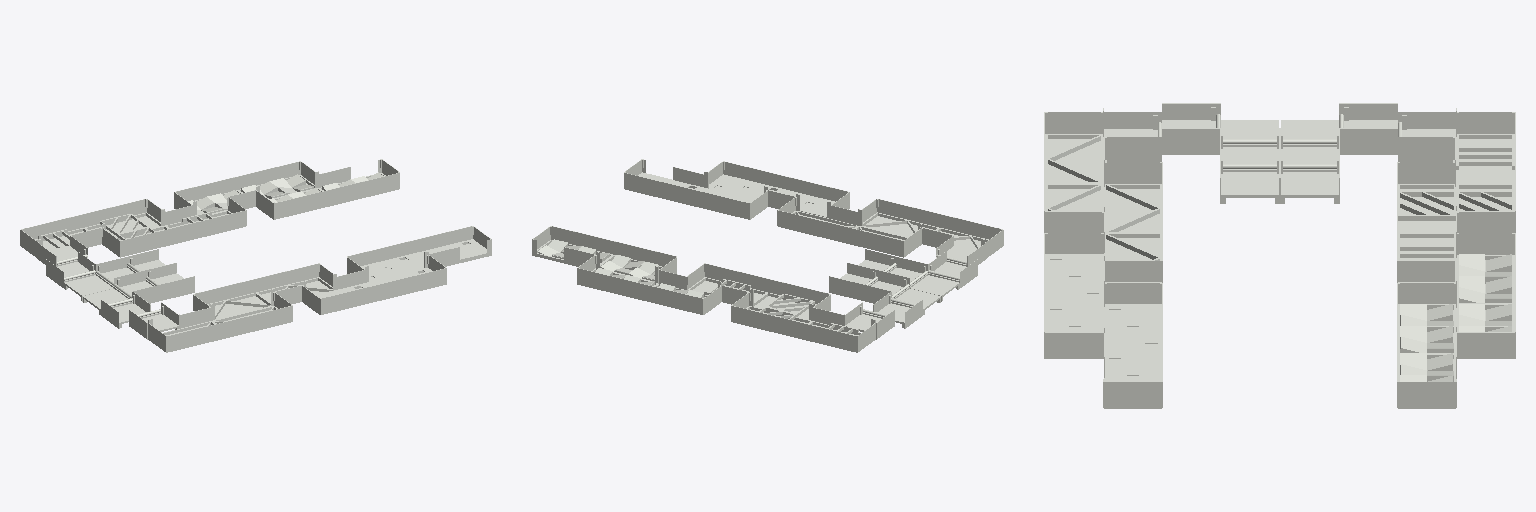
--- What the picture shows (computed from the rendered views, not written in the file) ---
The picture shows the robot from 3 angles, left to right: view 1: azimuth 30°, elevation 25°; view 2: azimuth 150°, elevation 25°; view 3: azimuth 270°, elevation 25°; orthographic projection.
Robot: map — 172 links, 171 joints (171 fixed); root link world; default pose: all joints at 0.
Visible links, largest first — view 1: board_18x600x2400_145, board_18x600x2400_156, board_18x600x2400_33, board_18x600x2400_66, board_18x600x2400_97, board_18x600x2400_176, board_18x600x2400_128, board_18x600x2400_184, pallet_step_with_pipe_78, pallet_step_with_pipe_76, pallet_step_with_pipe_90, pallet_step_with_pipe_88 (+17 smaller); view 2: board_18x600x2400_34, board_18x600x2400_47, board_18x600x2400_98, board_18x600x2400_134, board_18x600x2400_150, board_18x600x2400_165, board_18x600x2400_114, board_18x600x2400_192, pallet_step_with_pipe_80, pallet_step_with_pipe_82, pallet_step_with_pipe_92, pallet_step_with_pipe_86 (+16 smaller); view 3: pallet_step_with_pipe_88, pallet_step_with_pipe_86, crate_board_133, pallet_step_with_pipe_90, pallet_step_with_pipe_92, crate_board_153, lane_floor_164, lane_floor_190, lane_floor_96, pallet_step_with_pipe_78, pallet_step_with_pipe_80, board_18x600x1200_158 (+28 smaller).
Boxes of the visible links, x1,y1,x2,y2 form: board_18x600x2400_145: [320, 283, 383, 314]; board_18x600x2400_156: [384, 268, 446, 299]; board_18x600x2400_33: [337, 173, 399, 204]; board_18x600x2400_66: [274, 188, 336, 219]; board_18x600x2400_97: [183, 210, 245, 241]; board_18x600x2400_176: [167, 321, 229, 352]; board_18x600x2400_128: [120, 226, 182, 257]; board_18x600x2400_184: [230, 306, 292, 336]; pallet_step_with_pipe_78: [146, 263, 194, 299]; pallet_step_with_pipe_76: [114, 270, 163, 303]; pallet_step_with_pipe_90: [129, 302, 178, 339]; pallet_step_with_pipe_88: [101, 291, 150, 328]; board_18x600x2400_34: [640, 283, 703, 314]; board_18x600x2400_47: [577, 268, 639, 299]; board_18x600x2400_98: [794, 321, 856, 352]; board_18x600x2400_134: [624, 173, 686, 204]; board_18x600x2400_150: [687, 188, 749, 219]; board_18x600x2400_165: [778, 210, 840, 241]; board_18x600x2400_114: [731, 306, 793, 336]; board_18x600x2400_192: [841, 226, 903, 257]; pallet_step_with_pipe_80: [829, 263, 877, 299]; pallet_step_with_pipe_82: [860, 270, 909, 303]; pallet_step_with_pipe_92: [845, 302, 894, 339]; pallet_step_with_pipe_86: [873, 291, 922, 328]; pallet_step_with_pipe_88: [1162, 103, 1220, 154]; pallet_step_with_pipe_86: [1339, 103, 1397, 154]; crate_board_133: [1045, 254, 1103, 303]; pallet_step_with_pipe_90: [1104, 112, 1161, 161]; pallet_step_with_pipe_92: [1398, 112, 1455, 161]; crate_board_153: [1104, 304, 1161, 352]; lane_floor_164: [1045, 134, 1103, 183]; lane_floor_190: [1104, 184, 1161, 232]; lane_floor_96: [1456, 134, 1514, 183]; pallet_step_with_pipe_78: [1220, 153, 1279, 203]; pallet_step_with_pipe_80: [1280, 153, 1339, 203]; board_18x600x1200_158: [1045, 332, 1103, 358].
Bounding box of the posed robot: 13.53 × 9.66 × 0.711 m (x, y, z).
Meshes: 14 distinct files referenced, 171 mesh visuals loaded (14 OBJ).

The robot description file, URDF, robot "map":
<?xml version="1.0" ?>
<!-- =================================================================================== -->
<!-- |    This document was autogenerated by xacro from map_flat.urdf.xacro            | -->
<!-- |    EDITING THIS FILE BY HAND IS NOT RECOMMENDED                                 | -->
<!-- =================================================================================== -->
<robot name="map">
  <link name="world"/>
  <material name="black">
    <color rgba="0.0 0.0 0.0 1.0"/>
  </material>
  <material name="blue">
    <color rgba="0.0 0.0 0.8 1.0"/>
  </material>
  <material name="green">
    <color rgba="0.0 0.8 0.0 1.0"/>
  </material>
  <material name="grey">
    <color rgba="0.2 0.2 0.2 1.0"/>
  </material>
  <material name="orange">
    <color rgba="1.0 0.4235294117647059 0.0392156862745098 1.0"/>
  </material>
  <material name="brown">
    <color rgba="0.8705882352941177 0.8117647058823529 0.7647058823529411 1.0"/>
  </material>
  <material name="red">
    <color rgba="1 0.41 0.41 1"/>
  </material>
  <material name="white">
    <color rgba="1.0 1.0 1.0 1.0"/>
  </material>
  <material name="wood">
    <color rgba="0.82 0.59 0.35 1.0"/>
  </material>
  <!-- fixed joint -->
  <joint name="board_18x600x1032_38_joint" type="fixed">
    <origin rpy="0.0 -0.0 -3.1415926535891723" xyz="1.4110000009077655 3.602500000001875 0.30000000000000004"/>
    <parent link="world"/>
    <child link="board_18x600x1032_38"/>
  </joint>
  <!-- link -->
  <link name="board_18x600x1032_38">
    <!-- inertial -->
    <inertial>
      <origin rpy="0 0 0" xyz="0 0 0"/>
      <mass value="1"/>
      <inertia ixx="1.0" ixy="0.0" ixz="0.0" iyy="1.0" iyz="0.0" izz="1.0"/>
    </inertial>
    <!-- visual -->
    <visual>
      <origin rpy="0 0 0" xyz="0 0 0"/>
      <geometry>
        <mesh filename="package://ICRA2024_Quadruped_Competition/meshes/visual/board_18x600x1032.obj"/>
      </geometry>
      <material name="">
        <color rgba="0.92 0.93 0.90 1"/>
      </material>
    </visual>
    <!-- collision -->
    <collision>
      <origin rpy="0 0 0" xyz="0 0 0"/>
      <geometry>
        <mesh filename="package://ICRA2024_Quadruped_Competition/meshes/visual/board_18x600x1032.obj"/>
      </geometry>
      <material name="">
        <color rgba="1 0 0 1"/>
      </material>
    </collision>
  </link>
  <!-- gazebo -->
  <gazebo reference="board_18x600x1032_38">
    <static>true</static>
  </gazebo>
  <!-- fixed joint -->
  <joint name="board_18x600x1032_109_joint" type="fixed">
    <origin rpy="0.0 -0.0 -3.1415926535891723" xyz="-0.9889999990922331 3.62050000000182 0.30000000000000004"/>
    <parent link="world"/>
    <child link="board_18x600x1032_109"/>
  </joint>
  <!-- link -->
  <link name="board_18x600x1032_109">
    <!-- inertial -->
    <inertial>
      <origin rpy="0 0 0" xyz="0 0 0"/>
      <mass value="1"/>
      <inertia ixx="1.0" ixy="0.0" ixz="0.0" iyy="1.0" iyz="0.0" izz="1.0"/>
    </inertial>
    <!-- visual -->
    <visual>
      <origin rpy="0 0 0" xyz="0 0 0"/>
      <geometry>
        <mesh filename="package://ICRA2024_Quadruped_Competition/meshes/visual/board_18x600x1032.obj"/>
      </geometry>
      <material name="">
        <color rgba="0.92 0.93 0.90 1"/>
      </material>
    </visual>
    <!-- collision -->
    <collision>
      <origin rpy="0 0 0" xyz="0 0 0"/>
      <geometry>
        <mesh filename="package://ICRA2024_Quadruped_Competition/meshes/visual/board_18x600x1032.obj"/>
      </geometry>
      <material name="">
        <color rgba="1 0 0 1"/>
      </material>
    </collision>
  </link>
  <!-- gazebo -->
  <gazebo reference="board_18x600x1032_109">
    <static>true</static>
  </gazebo>
  <!-- fixed joint -->
  <joint name="board_18x600x1032_138_joint" type="fixed">
    <origin rpy="0.0 -0.0 -3.1415926535891723" xyz="1.4110000009077655 -3.6024999999981335 0.30000000000000004"/>
    <parent link="world"/>
    <child link="board_18x600x1032_138"/>
  </joint>
  <!-- link -->
  <link name="board_18x600x1032_138">
    <!-- inertial -->
    <inertial>
      <origin rpy="0 0 0" xyz="0 0 0"/>
      <mass value="1"/>
      <inertia ixx="1.0" ixy="0.0" ixz="0.0" iyy="1.0" iyz="0.0" izz="1.0"/>
    </inertial>
    <!-- visual -->
    <visual>
      <origin rpy="0 0 0" xyz="0 0 0"/>
      <geometry>
        <mesh filename="package://ICRA2024_Quadruped_Competition/meshes/visual/board_18x600x1032.obj"/>
      </geometry>
      <material name="">
        <color rgba="0.92 0.93 0.90 1"/>
      </material>
    </visual>
    <!-- collision -->
    <collision>
      <origin rpy="0 0 0" xyz="0 0 0"/>
      <geometry>
        <mesh filename="package://ICRA2024_Quadruped_Competition/meshes/visual/board_18x600x1032.obj"/>
      </geometry>
      <material name="">
        <color rgba="1 0 0 1"/>
      </material>
    </collision>
  </link>
  <!-- gazebo -->
  <gazebo reference="board_18x600x1032_138">
    <static>true</static>
  </gazebo>
  <!-- fixed joint -->
  <joint name="board_18x600x1032_175_joint" type="fixed">
    <origin rpy="0.0 -0.0 -3.1415926535891723" xyz="-0.9889999990922331 -3.6024999999981877 0.30000000000000004"/>
    <parent link="world"/>
    <child link="board_18x600x1032_175"/>
  </joint>
  <!-- link -->
  <link name="board_18x600x1032_175">
    <!-- inertial -->
    <inertial>
      <origin rpy="0 0 0" xyz="0 0 0"/>
      <mass value="1"/>
      <inertia ixx="1.0" ixy="0.0" ixz="0.0" iyy="1.0" iyz="0.0" izz="1.0"/>
    </inertial>
    <!-- visual -->
    <visual>
      <origin rpy="0 0 0" xyz="0 0 0"/>
      <geometry>
        <mesh filename="package://ICRA2024_Quadruped_Competition/meshes/visual/board_18x600x1032.obj"/>
      </geometry>
      <material name="">
        <color rgba="0.92 0.93 0.90 1"/>
      </material>
    </visual>
    <!-- collision -->
    <collision>
      <origin rpy="0 0 0" xyz="0 0 0"/>
      <geometry>
        <mesh filename="package://ICRA2024_Quadruped_Competition/meshes/visual/board_18x600x1032.obj"/>
      </geometry>
      <material name="">
        <color rgba="1 0 0 1"/>
      </material>
    </collision>
  </link>
  <!-- gazebo -->
  <gazebo reference="board_18x600x1032_175">
    <static>true</static>
  </gazebo>
  <!-- fixed joint -->
  <joint name="board_18x600x1200_35_joint" type="fixed">
    <origin rpy="-0.0 -0.0 1.570796326795414" xyz="-0.46399999909223233 4.21149999999938 0.30000000000000004"/>
    <parent link="world"/>
    <child link="board_18x600x1200_35"/>
  </joint>
  <!-- link -->
  <link name="board_18x600x1200_35">
    <!-- inertial -->
    <inertial>
      <origin rpy="0 0 0" xyz="0 0 0"/>
      <mass value="1"/>
      <inertia ixx="1.0" ixy="0.0" ixz="0.0" iyy="1.0" iyz="0.0" izz="1.0"/>
    </inertial>
    <!-- visual -->
    <visual>
      <origin rpy="0 0 0" xyz="0 0 0"/>
      <geometry>
        <mesh filename="package://ICRA2024_Quadruped_Competition/meshes/visual/board_18x600x1200.obj"/>
      </geometry>
      <material name="">
        <color rgba="0.92 0.93 0.90 1"/>
      </material>
    </visual>
    <!-- collision -->
    <collision>
      <origin rpy="0 0 0" xyz="0 0 0"/>
      <geometry>
        <mesh filename="package://ICRA2024_Quadruped_Competition/meshes/visual/board_18x600x1200.obj"/>
      </geometry>
      <material name="">
        <color rgba="1 0 0 1"/>
      </material>
    </collision>
  </link>
  <!-- gazebo -->
  <gazebo reference="board_18x600x1200_35">
    <static>true</static>
  </gazebo>
  <!-- fixed joint -->
  <joint name="board_18x600x1200_36_joint" type="fixed">
    <origin rpy="-0.0 -0.0 1.570796326795414" xyz="6.754000000908388 3.0115000000031142 0.30000000000000004"/>
    <parent link="world"/>
    <child link="board_18x600x1200_36"/>
  </joint>
  <!-- link -->
  <link name="board_18x600x1200_36">
    <!-- inertial -->
    <inertial>
      <origin rpy="0 0 0" xyz="0 0 0"/>
      <mass value="1"/>
      <inertia ixx="1.0" ixy="0.0" ixz="0.0" iyy="1.0" iyz="0.0" izz="1.0"/>
    </inertial>
    <!-- visual -->
    <visual>
      <origin rpy="0 0 0" xyz="0 0 0"/>
      <geometry>
        <mesh filename="package://ICRA2024_Quadruped_Competition/meshes/visual/board_18x600x1200.obj"/>
      </geometry>
      <material name="">
        <color rgba="0.92 0.93 0.90 1"/>
      </material>
    </visual>
    <!-- collision -->
    <collision>
      <origin rpy="0 0 0" xyz="0 0 0"/>
      <geometry>
        <mesh filename="package://ICRA2024_Quadruped_Competition/meshes/visual/board_18x600x1200.obj"/>
      </geometry>
      <material name="">
        <color rgba="1 0 0 1"/>
      </material>
    </collision>
  </link>
  <!-- gazebo -->
  <gazebo reference="board_18x600x1200_36">
    <static>true</static>
  </gazebo>
  <!-- fixed joint -->
  <joint name="board_18x600x1200_37_joint" type="fixed">
    <origin rpy="0.0 -0.0 -3.1415926535891723" xyz="4.9630000009077655 3.6205000000018748 0.30000000000000004"/>
    <parent link="world"/>
    <child link="board_18x600x1200_37"/>
  </joint>
  <!-- link -->
  <link name="board_18x600x1200_37">
    <!-- inertial -->
    <inertial>
      <origin rpy="0 0 0" xyz="0 0 0"/>
      <mass value="1"/>
      <inertia ixx="1.0" ixy="0.0" ixz="0.0" iyy="1.0" iyz="0.0" izz="1.0"/>
    </inertial>
    <!-- visual -->
    <visual>
      <origin rpy="0 0 0" xyz="0 0 0"/>
      <geometry>
        <mesh filename="package://ICRA2024_Quadruped_Competition/meshes/visual/board_18x600x1200.obj"/>
      </geometry>
      <material name="">
        <color rgba="0.92 0.93 0.90 1"/>
      </material>
    </visual>
    <!-- collision -->
    <collision>
      <origin rpy="0 0 0" xyz="0 0 0"/>
      <geometry>
        <mesh filename="package://ICRA2024_Quadruped_Competition/meshes/visual/board_18x600x1200.obj"/>
      </geometry>
      <material name="">
        <color rgba="1 0 0 1"/>
      </material>
    </collision>
  </link>
  <!-- gazebo -->
  <gazebo reference="board_18x600x1200_37">
    <static>true</static>
  </gazebo>
  <!-- fixed joint -->
  <joint name="board_18x600x1200_49_joint" type="fixed">
    <origin rpy="-0.0 -0.0 1.570796326795414" xyz="4.354000000907767 4.211500000001873 0.3000000000000004"/>
    <parent link="world"/>
    <child link="board_18x600x1200_49"/>
  </joint>
  <!-- link -->
  <link name="board_18x600x1200_49">
    <!-- inertial -->
    <inertial>
      <origin rpy="0 0 0" xyz="0 0 0"/>
      <mass value="1"/>
      <inertia ixx="1.0" ixy="0.0" ixz="0.0" iyy="1.0" iyz="0.0" izz="1.0"/>
    </inertial>
    <!-- visual -->
    <visual>
      <origin rpy="0 0 0" xyz="0 0 0"/>
      <geometry>
        <mesh filename="package://ICRA2024_Quadruped_Competition/meshes/visual/board_18x600x1200.obj"/>
      </geometry>
      <material name="">
        <color rgba="0.92 0.93 0.90 1"/>
      </material>
    </visual>
    <!-- collision -->
    <collision>
      <origin rpy="0 0 0" xyz="0 0 0"/>
      <geometry>
        <mesh filename="package://ICRA2024_Quadruped_Competition/meshes/visual/board_18x600x1200.obj"/>
      </geometry>
      <material name="">
        <color rgba="1 0 0 1"/>
      </material>
    </collision>
  </link>
  <!-- gazebo -->
  <gazebo reference="board_18x600x1200_49">
    <static>true</static>
  </gazebo>
  <!-- fixed joint -->
  <joint name="board_18x600x1200_63_joint" type="fixed">
    <origin rpy="-0.0 -0.0 1.570796326795414" xyz="1.936000000908388 3.011500000000621 0.3000000000000004"/>
    <parent link="world"/>
    <child link="board_18x600x1200_63"/>
  </joint>
  <!-- link -->
  <link name="board_18x600x1200_63">
    <!-- inertial -->
    <inertial>
      <origin rpy="0 0 0" xyz="0 0 0"/>
      <mass value="1"/>
      <inertia ixx="1.0" ixy="0.0" ixz="0.0" iyy="1.0" iyz="0.0" izz="1.0"/>
    </inertial>
    <!-- visual -->
    <visual>
      <origin rpy="0 0 0" xyz="0 0 0"/>
      <geometry>
        <mesh filename="package://ICRA2024_Quadruped_Competition/meshes/visual/board_18x600x1200.obj"/>
      </geometry>
      <material name="">
        <color rgba="0.92 0.93 0.90 1"/>
      </material>
    </visual>
    <!-- collision -->
    <collision>
      <origin rpy="0 0 0" xyz="0 0 0"/>
      <geometry>
        <mesh filename="package://ICRA2024_Quadruped_Competition/meshes/visual/board_18x600x1200.obj"/>
      </geometry>
      <material name="">
        <color rgba="1 0 0 1"/>
      </material>
    </collision>
  </link>
  <!-- gazebo -->
  <gazebo reference="board_18x600x1200_63">
    <static>true</static>
  </gazebo>
  <!-- fixed joint -->
  <joint name="board_18x600x1200_99_joint" type="fixed">
    <origin rpy="-0.0 -0.0 1.570796326795414" xyz="-6.331999999092233 4.211499999999377 0.30000000000000004"/>
    <parent link="world"/>
    <child link="board_18x600x1200_99"/>
  </joint>
  <!-- link -->
  <link name="board_18x600x1200_99">
    <!-- inertial -->
    <inertial>
      <origin rpy="0 0 0" xyz="0 0 0"/>
      <mass value="1"/>
      <inertia ixx="1.0" ixy="0.0" ixz="0.0" iyy="1.0" iyz="0.0" izz="1.0"/>
    </inertial>
    <!-- visual -->
    <visual>
      <origin rpy="0 0 0" xyz="0 0 0"/>
      <geometry>
        <mesh filename="package://ICRA2024_Quadruped_Competition/meshes/visual/board_18x600x1200.obj"/>
      </geometry>
      <material name="">
        <color rgba="0.92 0.93 0.90 1"/>
      </material>
    </visual>
    <!-- collision -->
    <collision>
      <origin rpy="0 0 0" xyz="0 0 0"/>
      <geometry>
        <mesh filename="package://ICRA2024_Quadruped_Competition/meshes/visual/board_18x600x1200.obj"/>
      </geometry>
      <material name="">
        <color rgba="1 0 0 1"/>
      </material>
    </collision>
  </link>
  <!-- gazebo -->
  <gazebo reference="board_18x600x1200_99">
    <static>true</static>
  </gazebo>
  <!-- fixed joint -->
  <joint name="board_18x600x1200_100_joint" type="fixed">
    <origin rpy="-0.0 -0.0 1.570796326795414" xyz="0.8860000009083877 3.0115000000031116 0.30000000000000004"/>
    <parent link="world"/>
    <child link="board_18x600x1200_100"/>
  </joint>
  <!-- link -->
  <link name="board_18x600x1200_100">
    <!-- inertial -->
    <inertial>
      <origin rpy="0 0 0" xyz="0 0 0"/>
      <mass value="1"/>
      <inertia ixx="1.0" ixy="0.0" ixz="0.0" iyy="1.0" iyz="0.0" izz="1.0"/>
    </inertial>
    <!-- visual -->
    <visual>
      <origin rpy="0 0 0" xyz="0 0 0"/>
      <geometry>
        <mesh filename="package://ICRA2024_Quadruped_Competition/meshes/visual/board_18x600x1200.obj"/>
      </geometry>
      <material name="">
        <color rgba="0.92 0.93 0.90 1"/>
      </material>
    </visual>
    <!-- collision -->
    <collision>
      <origin rpy="0 0 0" xyz="0 0 0"/>
      <geometry>
        <mesh filename="package://ICRA2024_Quadruped_Competition/meshes/visual/board_18x600x1200.obj"/>
      </geometry>
      <material name="">
        <color rgba="1 0 0 1"/>
      </material>
    </collision>
  </link>
  <!-- gazebo -->
  <gazebo reference="board_18x600x1200_100">
    <static>true</static>
  </gazebo>
  <!-- fixed joint -->
  <joint name="board_18x600x1200_108_joint" type="fixed">
    <origin rpy="0.0 -0.0 -3.1415926535891723" xyz="-4.540999999092234 3.6025000000018723 0.30000000000000004"/>
    <parent link="world"/>
    <child link="board_18x600x1200_108"/>
  </joint>
  <!-- link -->
  <link name="board_18x600x1200_108">
    <!-- inertial -->
    <inertial>
      <origin rpy="0 0 0" xyz="0 0 0"/>
      <mass value="1"/>
      <inertia ixx="1.0" ixy="0.0" ixz="0.0" iyy="1.0" iyz="0.0" izz="1.0"/>
    </inertial>
    <!-- visual -->
    <visual>
      <origin rpy="0 0 0" xyz="0 0 0"/>
      <geometry>
        <mesh filename="package://ICRA2024_Quadruped_Competition/meshes/visual/board_18x600x1200.obj"/>
      </geometry>
      <material name="">
        <color rgba="0.92 0.93 0.90 1"/>
      </material>
    </visual>
    <!-- collision -->
    <collision>
      <origin rpy="0 0 0" xyz="0 0 0"/>
      <geometry>
        <mesh filename="package://ICRA2024_Quadruped_Competition/meshes/visual/board_18x600x1200.obj"/>
      </geometry>
      <material name="">
        <color rgba="1 0 0 1"/>
      </material>
    </collision>
  </link>
  <!-- gazebo -->
  <gazebo reference="board_18x600x1200_108">
    <static>true</static>
  </gazebo>
  <!-- fixed joint -->
  <joint name="board_18x600x1200_116_joint" type="fixed">
    <origin rpy="-0.0 -0.0 1.570796326795414" xyz="-1.513999999092233 4.21150000000187 0.3000000000000004"/>
    <parent link="world"/>
    <child link="board_18x600x1200_116"/>
  </joint>
  <!-- link -->
  <link name="board_18x600x1200_116">
    <!-- inertial -->
    <inertial>
      <origin rpy="0 0 0" xyz="0 0 0"/>
      <mass value="1"/>
      <inertia ixx="1.0" ixy="0.0" ixz="0.0" iyy="1.0" iyz="0.0" izz="1.0"/>
    </inertial>
    <!-- visual -->
    <visual>
      <origin rpy="0 0 0" xyz="0 0 0"/>
      <geometry>
        <mesh filename="package://ICRA2024_Quadruped_Competition/meshes/visual/board_18x600x1200.obj"/>
      </geometry>
      <material name="">
        <color rgba="0.92 0.93 0.90 1"/>
      </material>
    </visual>
    <!-- collision -->
    <collision>
      <origin rpy="0 0 0" xyz="0 0 0"/>
      <geometry>
        <mesh filename="package://ICRA2024_Quadruped_Competition/meshes/visual/board_18x600x1200.obj"/>
      </geometry>
      <material name="">
        <color rgba="1 0 0 1"/>
      </material>
    </collision>
  </link>
  <!-- gazebo -->
  <gazebo reference="board_18x600x1200_116">
    <static>true</static>
  </gazebo>
  <!-- fixed joint -->
  <joint name="board_18x600x1200_124_joint" type="fixed">
    <origin rpy="-0.0 -0.0 1.570796326795414" xyz="-3.9319999990916124 3.011500000000619 0.30000000000000016"/>
    <parent link="world"/>
    <child link="board_18x600x1200_124"/>
  </joint>
  <!-- link -->
  <link name="board_18x600x1200_124">
    <!-- inertial -->
    <inertial>
      <origin rpy="0 0 0" xyz="0 0 0"/>
      <mass value="1"/>
      <inertia ixx="1.0" ixy="0.0" ixz="0.0" iyy="1.0" iyz="0.0" izz="1.0"/>
    </inertial>
    <!-- visual -->
    <visual>
      <origin rpy="0 0 0" xyz="0 0 0"/>
      <geometry>
        <mesh filename="package://ICRA2024_Quadruped_Competition/meshes/visual/board_18x600x1200.obj"/>
      </geometry>
      <material name="">
        <color rgba="0.92 0.93 0.90 1"/>
      </material>
    </visual>
    <!-- collision -->
    <collision>
      <origin rpy="0 0 0" xyz="0 0 0"/>
      <geometry>
        <mesh filename="package://ICRA2024_Quadruped_Competition/meshes/visual/board_18x600x1200.obj"/>
      </geometry>
      <material name="">
        <color rgba="1 0 0 1"/>
      </material>
    </collision>
  </link>
  <!-- gazebo -->
  <gazebo reference="board_18x600x1200_124">
    <static>true</static>
  </gazebo>
  <!-- fixed joint -->
  <joint name="board_18x600x1200_135_joint" type="fixed">
    <origin rpy="-0.0 -0.0 1.570796326795414" xyz="-0.46399999909223233 -4.211500000000629 0.30000000000000004"/>
    <parent link="world"/>
    <child link="board_18x600x1200_135"/>
  </joint>
  <!-- link -->
  <link name="board_18x600x1200_135">
    <!-- inertial -->
    <inertial>
      <origin rpy="0 0 0" xyz="0 0 0"/>
      <mass value="1"/>
      <inertia ixx="1.0" ixy="0.0" ixz="0.0" iyy="1.0" iyz="0.0" izz="1.0"/>
    </inertial>
    <!-- visual -->
    <visual>
      <origin rpy="0 0 0" xyz="0 0 0"/>
      <geometry>
        <mesh filename="package://ICRA2024_Quadruped_Competition/meshes/visual/board_18x600x1200.obj"/>
      </geometry>
      <material name="">
        <color rgba="0.92 0.93 0.90 1"/>
      </material>
    </visual>
    <!-- collision -->
    <collision>
      <origin rpy="0 0 0" xyz="0 0 0"/>
      <geometry>
        <mesh filename="package://ICRA2024_Quadruped_Competition/meshes/visual/board_18x600x1200.obj"/>
      </geometry>
      <material name="">
        <color rgba="1 0 0 1"/>
      </material>
    </collision>
  </link>
  <!-- gazebo -->
  <gazebo reference="board_18x600x1200_135">
    <static>true</static>
  </gazebo>
  <!-- fixed joint -->
  <joint name="board_18x600x1200_136_joint" type="fixed">
    <origin rpy="-0.0 -0.0 1.570796326795414" xyz="6.754000000908388 -3.0114999999968943 0.30000000000000004"/>
    <parent link="world"/>
    <child link="board_18x600x1200_136"/>
  </joint>
  <!-- link -->
  <link name="board_18x600x1200_136">
    <!-- inertial -->
    <inertial>
      <origin rpy="0 0 0" xyz="0 0 0"/>
      <mass value="1"/>
      <inertia ixx="1.0" ixy="0.0" ixz="0.0" iyy="1.0" iyz="0.0" izz="1.0"/>
    </inertial>
    <!-- visual -->
    <visual>
      <origin rpy="0 0 0" xyz="0 0 0"/>
      <geometry>
        <mesh filename="package://ICRA2024_Quadruped_Competition/meshes/visual/board_18x600x1200.obj"/>
      </geometry>
      <material name="">
        <color rgba="0.92 0.93 0.90 1"/>
      </material>
    </visual>
    <!-- collision -->
    <collision>
      <origin rpy="0 0 0" xyz="0 0 0"/>
      <geometry>
        <mesh filename="package://ICRA2024_Quadruped_Competition/meshes/visual/board_18x600x1200.obj"/>
      </geometry>
      <material name="">
        <color rgba="1 0 0 1"/>
      </material>
    </collision>
  </link>
  <!-- gazebo -->
  <gazebo reference="board_18x600x1200_136">
    <static>true</static>
  </gazebo>
  <!-- fixed joint -->
  <joint name="board_18x600x1200_137_joint" type="fixed">
    <origin rpy="0.0 -0.0 -3.1415926535891723" xyz="4.9630000009077655 -3.6024999999981335 0.30000000000000004"/>
    <parent link="world"/>
    <child link="board_18x600x1200_137"/>
  </joint>
  <!-- link -->
  <link name="board_18x600x1200_137">
    <!-- inertial -->
    <inertial>
      <origin rpy="0 0 0" xyz="0 0 0"/>
      <mass value="1"/>
      <inertia ixx="1.0" ixy="0.0" ixz="0.0" iyy="1.0" iyz="0.0" izz="1.0"/>
    </inertial>
    <!-- visual -->
    <visual>
      <origin rpy="0 0 0" xyz="0 0 0"/>
      <geometry>
        <mesh filename="package://ICRA2024_Quadruped_Competition/meshes/visual/board_18x600x1200.obj"/>
      </geometry>
      <material name="">
        <color rgba="0.92 0.93 0.90 1"/>
      </material>
    </visual>
    <!-- collision -->
    <collision>
      <origin rpy="0 0 0" xyz="0 0 0"/>
      <geometry>
        <mesh filename="package://ICRA2024_Quadruped_Competition/meshes/visual/board_18x600x1200.obj"/>
      </geometry>
      <material name="">
        <color rgba="1 0 0 1"/>
      </material>
    </collision>
  </link>
  <!-- gazebo -->
  <gazebo reference="board_18x600x1200_137">
    <static>true</static>
  </gazebo>
  <!-- fixed joint -->
  <joint name="board_18x600x1200_148_joint" type="fixed">
    <origin rpy="-1.2490009027033004e-16 6.46126385182585e-29 1.570796326795414" xyz="1.936000000908388 -3.0114999999993866 0.3000000000000001"/>
    <parent link="world"/>
    <child link="board_18x600x1200_148"/>
  </joint>
  <!-- link -->
  <link name="board_18x600x1200_148">
    <!-- inertial -->
    <inertial>
      <origin rpy="0 0 0" xyz="0 0 0"/>
      <mass value="1"/>
      <inertia ixx="1.0" ixy="0.0" ixz="0.0" iyy="1.0" iyz="0.0" izz="1.0"/>
    </inertial>
    <!-- visual -->
    <visual>
      <origin rpy="0 0 0" xyz="0 0 0"/>
      <geometry>
        <mesh filename="package://ICRA2024_Quadruped_Competition/meshes/visual/board_18x600x1200.obj"/>
      </geometry>
      <material name="">
        <color rgba="0.92 0.93 0.90 1"/>
      </material>
    </visual>
    <!-- collision -->
    <collision>
      <origin rpy="0 0 0" xyz="0 0 0"/>
      <geometry>
        <mesh filename="package://ICRA2024_Quadruped_Competition/meshes/visual/board_18x600x1200.obj"/>
      </geometry>
      <material name="">
        <color rgba="1 0 0 1"/>
      </material>
    </collision>
  </link>
  <!-- gazebo -->
  <gazebo reference="board_18x600x1200_148">
    <static>true</static>
  </gazebo>
  <!-- fixed joint -->
  <joint name="board_18x600x1200_158_joint" type="fixed">
    <origin rpy="-0.0 -0.0 1.5707963267954144" xyz="4.354000000907767 -4.211499999998135 0.3000000000000004"/>
    <parent link="world"/>
    <child link="board_18x600x1200_158"/>
  </joint>
  <!-- link -->
  <link name="board_18x600x1200_158">
    <!-- inertial -->
    <inertial>
      <origin rpy="0 0 0" xyz="0 0 0"/>
      <mass value="1"/>
      <inertia ixx="1.0" ixy="0.0" ixz="0.0" iyy="1.0" iyz="0.0" izz="1.0"/>
    </inertial>
    <!-- visual -->
    <visual>
      <origin rpy="0 0 0" xyz="0 0 0"/>
      <geometry>
        <mesh filename="package://ICRA2024_Quadruped_Competition/meshes/visual/board_18x600x1200.obj"/>
      </geometry>
      <material name="">
        <color rgba="0.92 0.93 0.90 1"/>
      </material>
    </visual>
    <!-- collision -->
    <collision>
      <origin rpy="0 0 0" xyz="0 0 0"/>
      <geometry>
        <mesh filename="package://ICRA2024_Quadruped_Competition/meshes/visual/board_18x600x1200.obj"/>
      </geometry>
      <material name="">
        <color rgba="1 0 0 1"/>
      </material>
    </collision>
  </link>
  <!-- gazebo -->
  <gazebo reference="board_18x600x1200_158">
    <static>true</static>
  </gazebo>
  <!-- fixed joint -->
  <joint name="board_18x600x1200_166_joint" type="fixed">
    <origin rpy="-0.0 -0.0 1.570796326795414" xyz="-6.331999999092233 -4.211500000000631 0.30000000000000004"/>
    <parent link="world"/>
    <child link="board_18x600x1200_166"/>
  </joint>
  <!-- link -->
  <link name="board_18x600x1200_166">
    <!-- inertial -->
    <inertial>
      <origin rpy="0 0 0" xyz="0 0 0"/>
      <mass value="1"/>
      <inertia ixx="1.0" ixy="0.0" ixz="0.0" iyy="1.0" iyz="0.0" izz="1.0"/>
    </inertial>
    <!-- visual -->
    <visual>
      <origin rpy="0 0 0" xyz="0 0 0"/>
      <geometry>
        <mesh filename="package://ICRA2024_Quadruped_Competition/meshes/visual/board_18x600x1200.obj"/>
      </geometry>
      <material name="">
        <color rgba="0.92 0.93 0.90 1"/>
      </material>
    </visual>
    <!-- collision -->
    <collision>
      <origin rpy="0 0 0" xyz="0 0 0"/>
      <geometry>
        <mesh filename="package://ICRA2024_Quadruped_Competition/meshes/visual/board_18x600x1200.obj"/>
      </geometry>
      <material name="">
        <color rgba="1 0 0 1"/>
      </material>
    </collision>
  </link>
  <!-- gazebo -->
  <gazebo reference="board_18x600x1200_166">
    <static>true</static>
  </gazebo>
  <!-- fixed joint -->
  <joint name="board_18x600x1200_167_joint" type="fixed">
    <origin rpy="-0.0 -0.0 1.570796326795414" xyz="0.8860000009083877 -3.011499999996896 0.30000000000000004"/>
    <parent link="world"/>
    <child link="board_18x600x1200_167"/>
  </joint>
  <!-- link -->
  <link name="board_18x600x1200_167">
    <!-- inertial -->
    <inertial>
      <origin rpy="0 0 0" xyz="0 0 0"/>
      <mass value="1"/>
      <inertia ixx="1.0" ixy="0.0" ixz="0.0" iyy="1.0" iyz="0.0" izz="1.0"/>
    </inertial>
    <!-- visual -->
    <visual>
      <origin rpy="0 0 0" xyz="0 0 0"/>
      <geometry>
        <mesh filename="package://ICRA2024_Quadruped_Competition/meshes/visual/board_18x600x1200.obj"/>
      </geometry>
      <material name="">
        <color rgba="0.92 0.93 0.90 1"/>
      </material>
    </visual>
    <!-- collision -->
    <collision>
      <origin rpy="0 0 0" xyz="0 0 0"/>
      <geometry>
        <mesh filename="package://ICRA2024_Quadruped_Competition/meshes/visual/board_18x600x1200.obj"/>
      </geometry>
      <material name="">
        <color rgba="1 0 0 1"/>
      </material>
    </collision>
  </link>
  <!-- gazebo -->
  <gazebo reference="board_18x600x1200_167">
    <static>true</static>
  </gazebo>
  <!-- fixed joint -->
  <joint name="board_18x600x1200_174_joint" type="fixed">
    <origin rpy="0.0 -0.0 -3.1415926535891723" xyz="-4.540999999092234 -3.6024999999981353 0.30000000000000004"/>
    <parent link="world"/>
    <child link="board_18x600x1200_174"/>
  </joint>
  <!-- link -->
  <link name="board_18x600x1200_174">
    <!-- inertial -->
    <inertial>
      <origin rpy="0 0 0" xyz="0 0 0"/>
      <mass value="1"/>
      <inertia ixx="1.0" ixy="0.0" ixz="0.0" iyy="1.0" iyz="0.0" izz="1.0"/>
    </inertial>
    <!-- visual -->
    <visual>
      <origin rpy="0 0 0" xyz="0 0 0"/>
      <geometry>
        <mesh filename="package://ICRA2024_Quadruped_Competition/meshes/visual/board_18x600x1200.obj"/>
      </geometry>
      <material name="">
        <color rgba="0.92 0.93 0.90 1"/>
      </material>
    </visual>
    <!-- collision -->
    <collision>
      <origin rpy="0 0 0" xyz="0 0 0"/>
      <geometry>
        <mesh filename="package://ICRA2024_Quadruped_Competition/meshes/visual/board_18x600x1200.obj"/>
      </geometry>
      <material name="">
        <color rgba="1 0 0 1"/>
      </material>
    </collision>
  </link>
  <!-- gazebo -->
  <gazebo reference="board_18x600x1200_174">
    <static>true</static>
  </gazebo>
  <!-- fixed joint -->
  <joint name="board_18x600x1200_183_joint" type="fixed">
    <origin rpy="-0.0 -0.0 1.570796326795414" xyz="-1.513999999092233 -4.211499999998137 0.29999999999999993"/>
    <parent link="world"/>
    <child link="board_18x600x1200_183"/>
  </joint>
  <!-- link -->
  <link name="board_18x600x1200_183">
    <!-- inertial -->
    <inertial>
      <origin rpy="0 0 0" xyz="0 0 0"/>
      <mass value="1"/>
      <inertia ixx="1.0" ixy="0.0" ixz="0.0" iyy="1.0" iyz="0.0" izz="1.0"/>
    </inertial>
    <!-- visual -->
    <visual>
      <origin rpy="0 0 0" xyz="0 0 0"/>
      <geometry>
        <mesh filename="package://ICRA2024_Quadruped_Competition/meshes/visual/board_18x600x1200.obj"/>
      </geometry>
      <material name="">
        <color rgba="0.92 0.93 0.90 1"/>
      </material>
    </visual>
    <!-- collision -->
    <collision>
      <origin rpy="0 0 0" xyz="0 0 0"/>
      <geometry>
        <mesh filename="package://ICRA2024_Quadruped_Competition/meshes/visual/board_18x600x1200.obj"/>
      </geometry>
      <material name="">
        <color rgba="1 0 0 1"/>
      </material>
    </collision>
  </link>
  <!-- gazebo -->
  <gazebo reference="board_18x600x1200_183">
    <static>true</static>
  </gazebo>
  <!-- fixed joint -->
  <joint name="board_18x600x1200_194_joint" type="fixed">
    <origin rpy="-0.0 -0.0 1.570796326795414" xyz="-3.9319999990916124 -3.0114999999993888 0.3000000000000004"/>
    <parent link="world"/>
    <child link="board_18x600x1200_194"/>
  </joint>
  <!-- link -->
  <link name="board_18x600x1200_194">
    <!-- inertial -->
    <inertial>
      <origin rpy="0 0 0" xyz="0 0 0"/>
      <mass value="1"/>
      <inertia ixx="1.0" ixy="0.0" ixz="0.0" iyy="1.0" iyz="0.0" izz="1.0"/>
    </inertial>
    <!-- visual -->
    <visual>
      <origin rpy="0 0 0" xyz="0 0 0"/>
      <geometry>
        <mesh filename="package://ICRA2024_Quadruped_Competition/meshes/visual/board_18x600x1200.obj"/>
      </geometry>
      <material name="">
        <color rgba="0.92 0.93 0.90 1"/>
      </material>
    </visual>
    <!-- collision -->
    <collision>
      <origin rpy="0 0 0" xyz="0 0 0"/>
      <geometry>
        <mesh filename="package://ICRA2024_Quadruped_Competition/meshes/visual/board_18x600x1200.obj"/>
      </geometry>
      <material name="">
        <color rgba="1 0 0 1"/>
      </material>
    </collision>
  </link>
  <!-- gazebo -->
  <gazebo reference="board_18x600x1200_194">
    <static>true</static>
  </gazebo>
  <!-- fixed joint -->
  <joint name="board_18x600x150_39_joint" type="fixed">
    <origin rpy="0.0 -0.0 -3.1415926535891723" xyz="6.670000000907766 3.6205000000018748 0.30000000000000004"/>
    <parent link="world"/>
    <child link="board_18x600x150_39"/>
  </joint>
  <!-- link -->
  <link name="board_18x600x150_39">
    <!-- inertial -->
    <inertial>
      <origin rpy="0 0 0" xyz="0 0 0"/>
      <mass value="1"/>
      <inertia ixx="1.0" ixy="0.0" ixz="0.0" iyy="1.0" iyz="0.0" izz="1.0"/>
    </inertial>
    <!-- visual -->
    <visual>
      <origin rpy="0 0 0" xyz="0 0 0"/>
      <geometry>
        <mesh filename="package://ICRA2024_Quadruped_Competition/meshes/visual/board_18x600x150.obj"/>
      </geometry>
      <material name="">
        <color rgba="0.92 0.93 0.90 1"/>
      </material>
    </visual>
    <!-- collision -->
    <collision>
      <origin rpy="0 0 0" xyz="0 0 0"/>
      <geometry>
        <mesh filename="package://ICRA2024_Quadruped_Competition/meshes/visual/board_18x600x150.obj"/>
      </geometry>
      <material name="">
        <color rgba="1 0 0 1"/>
      </material>
    </collision>
  </link>
  <!-- gazebo -->
  <gazebo reference="board_18x600x150_39">
    <static>true</static>
  </gazebo>
  <!-- fixed joint -->
  <joint name="board_18x600x150_44_joint" type="fixed">
    <origin rpy="0.0 -0.0 -3.1415926535891723" xyz="-0.37999999909223137 3.620500000001872 0.41100000000000003"/>
    <parent link="world"/>
    <child link="board_18x600x150_44"/>
  </joint>
  <!-- link -->
  <link name="board_18x600x150_44">
    <!-- inertial -->
    <inertial>
      <origin rpy="0 0 0" xyz="0 0 0"/>
      <mass value="1"/>
      <inertia ixx="1.0" ixy="0.0" ixz="0.0" iyy="1.0" iyz="0.0" izz="1.0"/>
    </inertial>
    <!-- visual -->
    <visual>
      <origin rpy="0 0 0" xyz="0 0 0"/>
      <geometry>
        <mesh filename="package://ICRA2024_Quadruped_Competition/meshes/visual/board_18x600x150.obj"/>
      </geometry>
      <material name="">
        <color rgba="0.92 0.93 0.90 1"/>
      </material>
    </visual>
    <!-- collision -->
    <collision>
      <origin rpy="0 0 0" xyz="0 0 0"/>
      <geometry>
        <mesh filename="package://ICRA2024_Quadruped_Competition/meshes/visual/board_18x600x150.obj"/>
      </geometry>
      <material name="">
        <color rgba="1 0 0 1"/>
      </material>
    </collision>
  </link>
  <!-- gazebo -->
  <gazebo reference="board_18x600x150_44">
    <static>true</static>
  </gazebo>
  <!-- fixed joint -->
  <joint name="board_18x600x150_50_joint" type="fixed">
    <origin rpy="0.0 -0.0 -3.1415926535891723" xyz="4.270000000907766 3.6205000000018748 0.41100000000000037"/>
    <parent link="world"/>
    <child link="board_18x600x150_50"/>
  </joint>
  <!-- link -->
  <link name="board_18x600x150_50">
    <!-- inertial -->
    <inertial>
      <origin rpy="0 0 0" xyz="0 0 0"/>
      <mass value="1"/>
      <inertia ixx="1.0" ixy="0.0" ixz="0.0" iyy="1.0" iyz="0.0" izz="1.0"/>
    </inertial>
    <!-- visual -->
    <visual>
      <origin rpy="0 0 0" xyz="0 0 0"/>
      <geometry>
        <mesh filename="package://ICRA2024_Quadruped_Competition/meshes/visual/board_18x600x150.obj"/>
      </geometry>
      <material name="">
        <color rgba="0.92 0.93 0.90 1"/>
      </material>
    </visual>
    <!-- collision -->
    <collision>
      <origin rpy="0 0 0" xyz="0 0 0"/>
      <geometry>
        <mesh filename="package://ICRA2024_Quadruped_Competition/meshes/visual/board_18x600x150.obj"/>
      </geometry>
      <material name="">
        <color rgba="1 0 0 1"/>
      </material>
    </collision>
  </link>
  <!-- gazebo -->
  <gazebo reference="board_18x600x150_50">
    <static>true</static>
  </gazebo>
  <!-- fixed joint -->
  <joint name="board_18x600x150_52_joint" type="fixed">
    <origin rpy="0.0 -0.0 -3.1415926535891723" xyz="2.0210000009077658 3.6205000000018748 0.41100000000000037"/>
    <parent link="world"/>
    <child link="board_18x600x150_52"/>
  </joint>
  <!-- link -->
  <link name="board_18x600x150_52">
    <!-- inertial -->
    <inertial>
      <origin rpy="0 0 0" xyz="0 0 0"/>
      <mass value="1"/>
      <inertia ixx="1.0" ixy="0.0" ixz="0.0" iyy="1.0" iyz="0.0" izz="1.0"/>
    </inertial>
    <!-- visual -->
    <visual>
      <origin rpy="0 0 0" xyz="0 0 0"/>
      <geometry>
        <mesh filename="package://ICRA2024_Quadruped_Competition/meshes/visual/board_18x600x150.obj"/>
      </geometry>
      <material name="">
        <color rgba="0.92 0.93 0.90 1"/>
      </material>
    </visual>
    <!-- collision -->
    <collision>
      <origin rpy="0 0 0" xyz="0 0 0"/>
      <geometry>
        <mesh filename="package://ICRA2024_Quadruped_Competition/meshes/visual/board_18x600x150.obj"/>
      </geometry>
      <material name="">
        <color rgba="1 0 0 1"/>
      </material>
    </collision>
  </link>
  <!-- gazebo -->
  <gazebo reference="board_18x600x150_52">
    <static>true</static>
  </gazebo>
  <!-- fixed joint -->
  <joint name="board_18x600x150_105_joint" type="fixed">
    <origin rpy="0.0 -0.0 -3.1415926535891723" xyz="-6.246999999092234 3.620500000001872 0.41100000000000003"/>
    <parent link="world"/>
    <child link="board_18x600x150_105"/>
  </joint>
  <!-- link -->
  <link name="board_18x600x150_105">
    <!-- inertial -->
    <inertial>
      <origin rpy="0 0 0" xyz="0 0 0"/>
      <mass value="1"/>
      <inertia ixx="1.0" ixy="0.0" ixz="0.0" iyy="1.0" iyz="0.0" izz="1.0"/>
    </inertial>
    <!-- visual -->
    <visual>
      <origin rpy="0 0 0" xyz="0 0 0"/>
      <geometry>
        <mesh filename="package://ICRA2024_Quadruped_Competition/meshes/visual/board_18x600x150.obj"/>
      </geometry>
      <material name="">
        <color rgba="0.92 0.93 0.90 1"/>
      </material>
    </visual>
    <!-- collision -->
    <collision>
      <origin rpy="0 0 0" xyz="0 0 0"/>
      <geometry>
        <mesh filename="package://ICRA2024_Quadruped_Competition/meshes/visual/board_18x600x150.obj"/>
      </geometry>
      <material name="">
        <color rgba="1 0 0 1"/>
      </material>
    </collision>
  </link>
  <!-- gazebo -->
  <gazebo reference="board_18x600x150_105">
    <static>true</static>
  </gazebo>
  <!-- fixed joint -->
  <joint name="board_18x600x150_118_joint" type="fixed">
    <origin rpy="0.0 -0.0 -3.1415926535891723" xyz="-1.597999999092234 3.620500000001872 0.41100000000000037"/>
    <parent link="world"/>
    <child link="board_18x600x150_118"/>
  </joint>
  <!-- link -->
  <link name="board_18x600x150_118">
    <!-- inertial -->
    <inertial>
      <origin rpy="0 0 0" xyz="0 0 0"/>
      <mass value="1"/>
      <inertia ixx="1.0" ixy="0.0" ixz="0.0" iyy="1.0" iyz="0.0" izz="1.0"/>
    </inertial>
    <!-- visual -->
    <visual>
      <origin rpy="0 0 0" xyz="0 0 0"/>
      <geometry>
        <mesh filename="package://ICRA2024_Quadruped_Competition/meshes/visual/board_18x600x150.obj"/>
      </geometry>
      <material name="">
        <color rgba="0.92 0.93 0.90 1"/>
      </material>
    </visual>
    <!-- collision -->
    <collision>
      <origin rpy="0 0 0" xyz="0 0 0"/>
      <geometry>
        <mesh filename="package://ICRA2024_Quadruped_Competition/meshes/visual/board_18x600x150.obj"/>
      </geometry>
      <material name="">
        <color rgba="1 0 0 1"/>
      </material>
    </collision>
  </link>
  <!-- gazebo -->
  <gazebo reference="board_18x600x150_118">
    <static>true</static>
  </gazebo>
  <!-- fixed joint -->
  <joint name="board_18x600x150_126_joint" type="fixed">
    <origin rpy="0.0 -0.0 -3.1415926535891723" xyz="-3.8469999990922346 3.6025000000018723 0.41100000000000014"/>
    <parent link="world"/>
    <child link="board_18x600x150_126"/>
  </joint>
  <!-- link -->
  <link name="board_18x600x150_126">
    <!-- inertial -->
    <inertial>
      <origin rpy="0 0 0" xyz="0 0 0"/>
      <mass value="1"/>
      <inertia ixx="1.0" ixy="0.0" ixz="0.0" iyy="1.0" iyz="0.0" izz="1.0"/>
    </inertial>
    <!-- visual -->
    <visual>
      <origin rpy="0 0 0" xyz="0 0 0"/>
      <geometry>
        <mesh filename="package://ICRA2024_Quadruped_Competition/meshes/visual/board_18x600x150.obj"/>
      </geometry>
      <material name="">
        <color rgba="0.92 0.93 0.90 1"/>
      </material>
    </visual>
    <!-- collision -->
    <collision>
      <origin rpy="0 0 0" xyz="0 0 0"/>
      <geometry>
        <mesh filename="package://ICRA2024_Quadruped_Competition/meshes/visual/board_18x600x150.obj"/>
      </geometry>
      <material name="">
        <color rgba="1 0 0 1"/>
      </material>
    </collision>
  </link>
  <!-- gazebo -->
  <gazebo reference="board_18x600x150_126">
    <static>true</static>
  </gazebo>
  <!-- fixed joint -->
  <joint name="board_18x600x150_139_joint" type="fixed">
    <origin rpy="0.0 -0.0 -3.1415926535891723" xyz="6.670000000907766 -3.6204999999981333 0.30000000000000004"/>
    <parent link="world"/>
    <child link="board_18x600x150_139"/>
  </joint>
  <!-- link -->
  <link name="board_18x600x150_139">
    <!-- inertial -->
    <inertial>
      <origin rpy="0 0 0" xyz="0 0 0"/>
      <mass value="1"/>
      <inertia ixx="1.0" ixy="0.0" ixz="0.0" iyy="1.0" iyz="0.0" izz="1.0"/>
    </inertial>
    <!-- visual -->
    <visual>
      <origin rpy="0 0 0" xyz="0 0 0"/>
      <geometry>
        <mesh filename="package://ICRA2024_Quadruped_Competition/meshes/visual/board_18x600x150.obj"/>
      </geometry>
      <material name="">
        <color rgba="0.92 0.93 0.90 1"/>
      </material>
    </visual>
    <!-- collision -->
    <collision>
      <origin rpy="0 0 0" xyz="0 0 0"/>
      <geometry>
        <mesh filename="package://ICRA2024_Quadruped_Competition/meshes/visual/board_18x600x150.obj"/>
      </geometry>
      <material name="">
        <color rgba="1 0 0 1"/>
      </material>
    </collision>
  </link>
  <!-- gazebo -->
  <gazebo reference="board_18x600x150_139">
    <static>true</static>
  </gazebo>
  <!-- fixed joint -->
  <joint name="board_18x600x150_144_joint" type="fixed">
    <origin rpy="0.0 -0.0 -3.1415926535891723" xyz="-0.37999999909223137 -3.602499999998137 0.41100000000000003"/>
    <parent link="world"/>
    <child link="board_18x600x150_144"/>
  </joint>
  <!-- link -->
  <link name="board_18x600x150_144">
    <!-- inertial -->
    <inertial>
      <origin rpy="0 0 0" xyz="0 0 0"/>
      <mass value="1"/>
      <inertia ixx="1.0" ixy="0.0" ixz="0.0" iyy="1.0" iyz="0.0" izz="1.0"/>
    </inertial>
    <!-- visual -->
    <visual>
      <origin rpy="0 0 0" xyz="0 0 0"/>
      <geometry>
        <mesh filename="package://ICRA2024_Quadruped_Competition/meshes/visual/board_18x600x150.obj"/>
      </geometry>
      <material name="">
        <color rgba="0.92 0.93 0.90 1"/>
      </material>
    </visual>
    <!-- collision -->
    <collision>
      <origin rpy="0 0 0" xyz="0 0 0"/>
      <geometry>
        <mesh filename="package://ICRA2024_Quadruped_Competition/meshes/visual/board_18x600x150.obj"/>
      </geometry>
      <material name="">
        <color rgba="1 0 0 1"/>
      </material>
    </collision>
  </link>
  <!-- gazebo -->
  <gazebo reference="board_18x600x150_144">
    <static>true</static>
  </gazebo>
  <!-- fixed joint -->
  <joint name="board_18x600x150_151_joint" type="fixed">
    <origin rpy="7.75425617928966e-29 1.2490009027032999e-16 -3.1415926535891723" xyz="2.0210000009077658 -3.602499999998134 0.41100000000000014"/>
    <parent link="world"/>
    <child link="board_18x600x150_151"/>
  </joint>
  <!-- link -->
  <link name="board_18x600x150_151">
    <!-- inertial -->
    <inertial>
      <origin rpy="0 0 0" xyz="0 0 0"/>
      <mass value="1"/>
      <inertia ixx="1.0" ixy="0.0" ixz="0.0" iyy="1.0" iyz="0.0" izz="1.0"/>
    </inertial>
    <!-- visual -->
    <visual>
      <origin rpy="0 0 0" xyz="0 0 0"/>
      <geometry>
        <mesh filename="package://ICRA2024_Quadruped_Competition/meshes/visual/board_18x600x150.obj"/>
      </geometry>
      <material name="">
        <color rgba="0.92 0.93 0.90 1"/>
      </material>
    </visual>
    <!-- collision -->
    <collision>
      <origin rpy="0 0 0" xyz="0 0 0"/>
      <geometry>
        <mesh filename="package://ICRA2024_Quadruped_Competition/meshes/visual/board_18x600x150.obj"/>
      </geometry>
      <material name="">
        <color rgba="1 0 0 1"/>
      </material>
    </collision>
  </link>
  <!-- gazebo -->
  <gazebo reference="board_18x600x150_151">
    <static>true</static>
  </gazebo>
  <!-- fixed joint -->
  <joint name="board_18x600x150_160_joint" type="fixed">
    <origin rpy="0.0 -0.0 -3.1415926535891723" xyz="4.288000000907765 -3.602499999998133 0.41100000000000037"/>
    <parent link="world"/>
    <child link="board_18x600x150_160"/>
  </joint>
  <!-- link -->
  <link name="board_18x600x150_160">
    <!-- inertial -->
    <inertial>
      <origin rpy="0 0 0" xyz="0 0 0"/>
      <mass value="1"/>
      <inertia ixx="1.0" ixy="0.0" ixz="0.0" iyy="1.0" iyz="0.0" izz="1.0"/>
    </inertial>
    <!-- visual -->
    <visual>
      <origin rpy="0 0 0" xyz="0 0 0"/>
      <geometry>
        <mesh filename="package://ICRA2024_Quadruped_Competition/meshes/visual/board_18x600x150.obj"/>
      </geometry>
      <material name="">
        <color rgba="0.92 0.93 0.90 1"/>
      </material>
    </visual>
    <!-- collision -->
    <collision>
      <origin rpy="0 0 0" xyz="0 0 0"/>
      <geometry>
        <mesh filename="package://ICRA2024_Quadruped_Competition/meshes/visual/board_18x600x150.obj"/>
      </geometry>
      <material name="">
        <color rgba="1 0 0 1"/>
      </material>
    </collision>
  </link>
  <!-- gazebo -->
  <gazebo reference="board_18x600x150_160">
    <static>true</static>
  </gazebo>
  <!-- fixed joint -->
  <joint name="board_18x600x150_172_joint" type="fixed">
    <origin rpy="0.0 -0.0 -3.1415926535891723" xyz="-6.246999999092234 -3.620499999998136 0.41100000000000003"/>
    <parent link="world"/>
    <child link="board_18x600x150_172"/>
  </joint>
  <!-- link -->
  <link name="board_18x600x150_172">
    <!-- inertial -->
    <inertial>
      <origin rpy="0 0 0" xyz="0 0 0"/>
      <mass value="1"/>
      <inertia ixx="1.0" ixy="0.0" ixz="0.0" iyy="1.0" iyz="0.0" izz="1.0"/>
    </inertial>
    <!-- visual -->
    <visual>
      <origin rpy="0 0 0" xyz="0 0 0"/>
      <geometry>
        <mesh filename="package://ICRA2024_Quadruped_Competition/meshes/visual/board_18x600x150.obj"/>
      </geometry>
      <material name="">
        <color rgba="0.92 0.93 0.90 1"/>
      </material>
    </visual>
    <!-- collision -->
    <collision>
      <origin rpy="0 0 0" xyz="0 0 0"/>
      <geometry>
        <mesh filename="package://ICRA2024_Quadruped_Competition/meshes/visual/board_18x600x150.obj"/>
      </geometry>
      <material name="">
        <color rgba="1 0 0 1"/>
      </material>
    </collision>
  </link>
  <!-- gazebo -->
  <gazebo reference="board_18x600x150_172">
    <static>true</static>
  </gazebo>
  <!-- fixed joint -->
  <joint name="board_18x600x150_177_joint" type="fixed">
    <origin rpy="0.0 -0.0 -3.1415926535891723" xyz="0.8030000009077662 -3.6024999999981335 0.41100000000000003"/>
    <parent link="world"/>
    <child link="board_18x600x150_177"/>
  </joint>
  <!-- link -->
  <link name="board_18x600x150_177">
    <!-- inertial -->
    <inertial>
      <origin rpy="0 0 0" xyz="0 0 0"/>
      <mass value="1"/>
      <inertia ixx="1.0" ixy="0.0" ixz="0.0" iyy="1.0" iyz="0.0" izz="1.0"/>
    </inertial>
    <!-- visual -->
    <visual>
      <origin rpy="0 0 0" xyz="0 0 0"/>
      <geometry>
        <mesh filename="package://ICRA2024_Quadruped_Competition/meshes/visual/board_18x600x150.obj"/>
      </geometry>
      <material name="">
        <color rgba="0.92 0.93 0.90 1"/>
      </material>
    </visual>
    <!-- collision -->
    <collision>
      <origin rpy="0 0 0" xyz="0 0 0"/>
      <geometry>
        <mesh filename="package://ICRA2024_Quadruped_Competition/meshes/visual/board_18x600x150.obj"/>
      </geometry>
      <material name="">
        <color rgba="1 0 0 1"/>
      </material>
    </collision>
  </link>
  <!-- gazebo -->
  <gazebo reference="board_18x600x150_177">
    <static>true</static>
  </gazebo>
  <!-- fixed joint -->
  <joint name="board_18x600x150_186_joint" type="fixed">
    <origin rpy="0.0 -0.0 -3.1415926535891723" xyz="-1.579999999092236 -3.6024999999981353 0.4109999999999999"/>
    <parent link="world"/>
    <child link="board_18x600x150_186"/>
  </joint>
  <!-- link -->
  <link name="board_18x600x150_186">
    <!-- inertial -->
    <inertial>
      <origin rpy="0 0 0" xyz="0 0 0"/>
      <mass value="1"/>
      <inertia ixx="1.0" ixy="0.0" ixz="0.0" iyy="1.0" iyz="0.0" izz="1.0"/>
    </inertial>
    <!-- visual -->
    <visual>
      <origin rpy="0 0 0" xyz="0 0 0"/>
      <geometry>
        <mesh filename="package://ICRA2024_Quadruped_Competition/meshes/visual/board_18x600x150.obj"/>
      </geometry>
      <material name="">
        <color rgba="0.92 0.93 0.90 1"/>
      </material>
    </visual>
    <!-- collision -->
    <collision>
      <origin rpy="0 0 0" xyz="0 0 0"/>
      <geometry>
        <mesh filename="package://ICRA2024_Quadruped_Competition/meshes/visual/board_18x600x150.obj"/>
      </geometry>
      <material name="">
        <color rgba="1 0 0 1"/>
      </material>
    </collision>
  </link>
  <!-- gazebo -->
  <gazebo reference="board_18x600x150_186">
    <static>true</static>
  </gazebo>
  <!-- fixed joint -->
  <joint name="board_18x600x150_195_joint" type="fixed">
    <origin rpy="0.0 -0.0 -3.1415926535891723" xyz="-3.8479999990922344 -3.6024999999981366 0.41100000000000037"/>
    <parent link="world"/>
    <child link="board_18x600x150_195"/>
  </joint>
  <!-- link -->
  <link name="board_18x600x150_195">
    <!-- inertial -->
    <inertial>
      <origin rpy="0 0 0" xyz="0 0 0"/>
      <mass value="1"/>
      <inertia ixx="1.0" ixy="0.0" ixz="0.0" iyy="1.0" iyz="0.0" izz="1.0"/>
    </inertial>
    <!-- visual -->
    <visual>
      <origin rpy="0 0 0" xyz="0 0 0"/>
      <geometry>
        <mesh filename="package://ICRA2024_Quadruped_Competition/meshes/visual/board_18x600x150.obj"/>
      </geometry>
      <material name="">
        <color rgba="0.92 0.93 0.90 1"/>
      </material>
    </visual>
    <!-- collision -->
    <collision>
      <origin rpy="0 0 0" xyz="0 0 0"/>
      <geometry>
        <mesh filename="package://ICRA2024_Quadruped_Competition/meshes/visual/board_18x600x150.obj"/>
      </geometry>
      <material name="">
        <color rgba="1 0 0 1"/>
      </material>
    </collision>
  </link>
  <!-- gazebo -->
  <gazebo reference="board_18x600x150_195">
    <static>true</static>
  </gazebo>
  <!-- fixed joint -->
  <joint name="board_18x600x2400_33_joint" type="fixed">
    <origin rpy="0.0 -0.0 0.0" xyz="5.545000000909425 2.4025000000000056 0.3"/>
    <parent link="world"/>
    <child link="board_18x600x2400_33"/>
  </joint>
  <!-- link -->
  <link name="board_18x600x2400_33">
    <!-- inertial -->
    <inertial>
      <origin rpy="0 0 0" xyz="0 0 0"/>
      <mass value="1"/>
      <inertia ixx="1.0" ixy="0.0" ixz="0.0" iyy="1.0" iyz="0.0" izz="1.0"/>
    </inertial>
    <!-- visual -->
    <visual>
      <origin rpy="0 0 0" xyz="0 0 0"/>
      <geometry>
        <mesh filename="package://ICRA2024_Quadruped_Competition/meshes/visual/board_18x600x2400.obj"/>
      </geometry>
      <material name="">
        <color rgba="0.92 0.93 0.90 1"/>
      </material>
    </visual>
    <!-- collision -->
    <collision>
      <origin rpy="0 0 0" xyz="0 0 0"/>
      <geometry>
        <mesh filename="package://ICRA2024_Quadruped_Competition/meshes/visual/board_18x600x2400.obj"/>
      </geometry>
      <material name="">
        <color rgba="1 0 0 1"/>
      </material>
    </collision>
  </link>
  <!-- gazebo -->
  <gazebo reference="board_18x600x2400_33">
    <static>true</static>
  </gazebo>
  <!-- fixed joint -->
  <joint name="board_18x600x2400_34_joint" type="fixed">
    <origin rpy="0.0 -0.0 0.0" xyz="0.7450000009094255 4.820500000000006 0.3"/>
    <parent link="world"/>
    <child link="board_18x600x2400_34"/>
  </joint>
  <!-- link -->
  <link name="board_18x600x2400_34">
    <!-- inertial -->
    <inertial>
      <origin rpy="0 0 0" xyz="0 0 0"/>
      <mass value="1"/>
      <inertia ixx="1.0" ixy="0.0" ixz="0.0" iyy="1.0" iyz="0.0" izz="1.0"/>
    </inertial>
    <!-- visual -->
    <visual>
      <origin rpy="0 0 0" xyz="0 0 0"/>
      <geometry>
        <mesh filename="package://ICRA2024_Quadruped_Competition/meshes/visual/board_18x600x2400.obj"/>
      </geometry>
      <material name="">
        <color rgba="0.92 0.93 0.90 1"/>
      </material>
    </visual>
    <!-- collision -->
    <collision>
      <origin rpy="0 0 0" xyz="0 0 0"/>
      <geometry>
        <mesh filename="package://ICRA2024_Quadruped_Competition/meshes/visual/board_18x600x2400.obj"/>
      </geometry>
      <material name="">
        <color rgba="1 0 0 1"/>
      </material>
    </collision>
  </link>
  <!-- gazebo -->
  <gazebo reference="board_18x600x2400_34">
    <static>true</static>
  </gazebo>
  <!-- fixed joint -->
  <joint name="board_18x600x2400_47_joint" type="fixed">
    <origin rpy="0.0 -0.0 0.0" xyz="3.145000000909425 4.820500000000006 0.3000000000000003"/>
    <parent link="world"/>
    <child link="board_18x600x2400_47"/>
  </joint>
  <!-- link -->
  <link name="board_18x600x2400_47">
    <!-- inertial -->
    <inertial>
      <origin rpy="0 0 0" xyz="0 0 0"/>
      <mass value="1"/>
      <inertia ixx="1.0" ixy="0.0" ixz="0.0" iyy="1.0" iyz="0.0" izz="1.0"/>
    </inertial>
    <!-- visual -->
    <visual>
      <origin rpy="0 0 0" xyz="0 0 0"/>
      <geometry>
        <mesh filename="package://ICRA2024_Quadruped_Competition/meshes/visual/board_18x600x2400.obj"/>
      </geometry>
      <material name="">
        <color rgba="0.92 0.93 0.90 1"/>
      </material>
    </visual>
    <!-- collision -->
    <collision>
      <origin rpy="0 0 0" xyz="0 0 0"/>
      <geometry>
        <mesh filename="package://ICRA2024_Quadruped_Competition/meshes/visual/board_18x600x2400.obj"/>
      </geometry>
      <material name="">
        <color rgba="1 0 0 1"/>
      </material>
    </collision>
  </link>
  <!-- gazebo -->
  <gazebo reference="board_18x600x2400_47">
    <static>true</static>
  </gazebo>
  <!-- fixed joint -->
  <joint name="board_18x600x2400_66_joint" type="fixed">
    <origin rpy="0.0 -0.0 0.0" xyz="3.145000000909425 2.402500000000005 0.3000000000000003"/>
    <parent link="world"/>
    <child link="board_18x600x2400_66"/>
  </joint>
  <!-- link -->
  <link name="board_18x600x2400_66">
    <!-- inertial -->
    <inertial>
      <origin rpy="0 0 0" xyz="0 0 0"/>
      <mass value="1"/>
      <inertia ixx="1.0" ixy="0.0" ixz="0.0" iyy="1.0" iyz="0.0" izz="1.0"/>
    </inertial>
    <!-- visual -->
    <visual>
      <origin rpy="0 0 0" xyz="0 0 0"/>
      <geometry>
        <mesh filename="package://ICRA2024_Quadruped_Competition/meshes/visual/board_18x600x2400.obj"/>
      </geometry>
      <material name="">
        <color rgba="0.92 0.93 0.90 1"/>
      </material>
    </visual>
    <!-- collision -->
    <collision>
      <origin rpy="0 0 0" xyz="0 0 0"/>
      <geometry>
        <mesh filename="package://ICRA2024_Quadruped_Competition/meshes/visual/board_18x600x2400.obj"/>
      </geometry>
      <material name="">
        <color rgba="1 0 0 1"/>
      </material>
    </collision>
  </link>
  <!-- gazebo -->
  <gazebo reference="board_18x600x2400_66">
    <static>true</static>
  </gazebo>
  <!-- fixed joint -->
  <joint name="board_18x600x2400_97_joint" type="fixed">
    <origin rpy="0.0 -0.0 0.0" xyz="-0.322999999090575 2.402500000000003 0.3"/>
    <parent link="world"/>
    <child link="board_18x600x2400_97"/>
  </joint>
  <!-- link -->
  <link name="board_18x600x2400_97">
    <!-- inertial -->
    <inertial>
      <origin rpy="0 0 0" xyz="0 0 0"/>
      <mass value="1"/>
      <inertia ixx="1.0" ixy="0.0" ixz="0.0" iyy="1.0" iyz="0.0" izz="1.0"/>
    </inertial>
    <!-- visual -->
    <visual>
      <origin rpy="0 0 0" xyz="0 0 0"/>
      <geometry>
        <mesh filename="package://ICRA2024_Quadruped_Competition/meshes/visual/board_18x600x2400.obj"/>
      </geometry>
      <material name="">
        <color rgba="0.92 0.93 0.90 1"/>
      </material>
    </visual>
    <!-- collision -->
    <collision>
      <origin rpy="0 0 0" xyz="0 0 0"/>
      <geometry>
        <mesh filename="package://ICRA2024_Quadruped_Competition/meshes/visual/board_18x600x2400.obj"/>
      </geometry>
      <material name="">
        <color rgba="1 0 0 1"/>
      </material>
    </collision>
  </link>
  <!-- gazebo -->
  <gazebo reference="board_18x600x2400_97">
    <static>true</static>
  </gazebo>
  <!-- fixed joint -->
  <joint name="board_18x600x2400_98_joint" type="fixed">
    <origin rpy="0.0 -0.0 0.0" xyz="-5.122999999090575 4.820500000000003 0.3"/>
    <parent link="world"/>
    <child link="board_18x600x2400_98"/>
  </joint>
  <!-- link -->
  <link name="board_18x600x2400_98">
    <!-- inertial -->
    <inertial>
      <origin rpy="0 0 0" xyz="0 0 0"/>
      <mass value="1"/>
      <inertia ixx="1.0" ixy="0.0" ixz="0.0" iyy="1.0" iyz="0.0" izz="1.0"/>
    </inertial>
    <!-- visual -->
    <visual>
      <origin rpy="0 0 0" xyz="0 0 0"/>
      <geometry>
        <mesh filename="package://ICRA2024_Quadruped_Competition/meshes/visual/board_18x600x2400.obj"/>
      </geometry>
      <material name="">
        <color rgba="0.92 0.93 0.90 1"/>
      </material>
    </visual>
    <!-- collision -->
    <collision>
      <origin rpy="0 0 0" xyz="0 0 0"/>
      <geometry>
        <mesh filename="package://ICRA2024_Quadruped_Competition/meshes/visual/board_18x600x2400.obj"/>
      </geometry>
      <material name="">
        <color rgba="1 0 0 1"/>
      </material>
    </collision>
  </link>
  <!-- gazebo -->
  <gazebo reference="board_18x600x2400_98">
    <static>true</static>
  </gazebo>
  <!-- fixed joint -->
  <joint name="board_18x600x2400_114_joint" type="fixed">
    <origin rpy="0.0 -0.0 0.0" xyz="-2.722999999090575 4.820500000000003 0.3000000000000003"/>
    <parent link="world"/>
    <child link="board_18x600x2400_114"/>
  </joint>
  <!-- link -->
  <link name="board_18x600x2400_114">
    <!-- inertial -->
    <inertial>
      <origin rpy="0 0 0" xyz="0 0 0"/>
      <mass value="1"/>
      <inertia ixx="1.0" ixy="0.0" ixz="0.0" iyy="1.0" iyz="0.0" izz="1.0"/>
    </inertial>
    <!-- visual -->
    <visual>
      <origin rpy="0 0 0" xyz="0 0 0"/>
      <geometry>
        <mesh filename="package://ICRA2024_Quadruped_Competition/meshes/visual/board_18x600x2400.obj"/>
      </geometry>
      <material name="">
        <color rgba="0.92 0.93 0.90 1"/>
      </material>
    </visual>
    <!-- collision -->
    <collision>
      <origin rpy="0 0 0" xyz="0 0 0"/>
      <geometry>
        <mesh filename="package://ICRA2024_Quadruped_Competition/meshes/visual/board_18x600x2400.obj"/>
      </geometry>
      <material name="">
        <color rgba="1 0 0 1"/>
      </material>
    </collision>
  </link>
  <!-- gazebo -->
  <gazebo reference="board_18x600x2400_114">
    <static>true</static>
  </gazebo>
  <!-- fixed joint -->
  <joint name="board_18x600x2400_128_joint" type="fixed">
    <origin rpy="0.0 -0.0 0.0" xyz="-2.7229999990905753 2.402500000000003 0.3000000000000001"/>
    <parent link="world"/>
    <child link="board_18x600x2400_128"/>
  </joint>
  <!-- link -->
  <link name="board_18x600x2400_128">
    <!-- inertial -->
    <inertial>
      <origin rpy="0 0 0" xyz="0 0 0"/>
      <mass value="1"/>
      <inertia ixx="1.0" ixy="0.0" ixz="0.0" iyy="1.0" iyz="0.0" izz="1.0"/>
    </inertial>
    <!-- visual -->
    <visual>
      <origin rpy="0 0 0" xyz="0 0 0"/>
      <geometry>
        <mesh filename="package://ICRA2024_Quadruped_Competition/meshes/visual/board_18x600x2400.obj"/>
      </geometry>
      <material name="">
        <color rgba="0.92 0.93 0.90 1"/>
      </material>
    </visual>
    <!-- collision -->
    <collision>
      <origin rpy="0 0 0" xyz="0 0 0"/>
      <geometry>
        <mesh filename="package://ICRA2024_Quadruped_Competition/meshes/visual/board_18x600x2400.obj"/>
      </geometry>
      <material name="">
        <color rgba="1 0 0 1"/>
      </material>
    </collision>
  </link>
  <!-- gazebo -->
  <gazebo reference="board_18x600x2400_128">
    <static>true</static>
  </gazebo>
  <!-- fixed joint -->
  <joint name="board_18x600x2400_134_joint" type="fixed">
    <origin rpy="0.0 -0.0 0.0" xyz="5.545000000909425 -2.402500000000003 0.3"/>
    <parent link="world"/>
    <child link="board_18x600x2400_134"/>
  </joint>
  <!-- link -->
  <link name="board_18x600x2400_134">
    <!-- inertial -->
    <inertial>
      <origin rpy="0 0 0" xyz="0 0 0"/>
      <mass value="1"/>
      <inertia ixx="1.0" ixy="0.0" ixz="0.0" iyy="1.0" iyz="0.0" izz="1.0"/>
    </inertial>
    <!-- visual -->
    <visual>
      <origin rpy="0 0 0" xyz="0 0 0"/>
      <geometry>
        <mesh filename="package://ICRA2024_Quadruped_Competition/meshes/visual/board_18x600x2400.obj"/>
      </geometry>
      <material name="">
        <color rgba="0.92 0.93 0.90 1"/>
      </material>
    </visual>
    <!-- collision -->
    <collision>
      <origin rpy="0 0 0" xyz="0 0 0"/>
      <geometry>
        <mesh filename="package://ICRA2024_Quadruped_Competition/meshes/visual/board_18x600x2400.obj"/>
      </geometry>
      <material name="">
        <color rgba="1 0 0 1"/>
      </material>
    </collision>
  </link>
  <!-- gazebo -->
  <gazebo reference="board_18x600x2400_134">
    <static>true</static>
  </gazebo>
  <!-- fixed joint -->
  <joint name="board_18x600x2400_145_joint" type="fixed">
    <origin rpy="0.0 -0.0 0.0" xyz="0.7450000009094255 -4.820500000000003 0.3"/>
    <parent link="world"/>
    <child link="board_18x600x2400_145"/>
  </joint>
  <!-- link -->
  <link name="board_18x600x2400_145">
    <!-- inertial -->
    <inertial>
      <origin rpy="0 0 0" xyz="0 0 0"/>
      <mass value="1"/>
      <inertia ixx="1.0" ixy="0.0" ixz="0.0" iyy="1.0" iyz="0.0" izz="1.0"/>
    </inertial>
    <!-- visual -->
    <visual>
      <origin rpy="0 0 0" xyz="0 0 0"/>
      <geometry>
        <mesh filename="package://ICRA2024_Quadruped_Competition/meshes/visual/board_18x600x2400.obj"/>
      </geometry>
      <material name="">
        <color rgba="0.92 0.93 0.90 1"/>
      </material>
    </visual>
    <!-- collision -->
    <collision>
      <origin rpy="0 0 0" xyz="0 0 0"/>
      <geometry>
        <mesh filename="package://ICRA2024_Quadruped_Competition/meshes/visual/board_18x600x2400.obj"/>
      </geometry>
      <material name="">
        <color rgba="1 0 0 1"/>
      </material>
    </collision>
  </link>
  <!-- gazebo -->
  <gazebo reference="board_18x600x2400_145">
    <static>true</static>
  </gazebo>
  <!-- fixed joint -->
  <joint name="board_18x600x2400_150_joint" type="fixed">
    <origin rpy="0.0 -1.2490009027033004e-16 0.0" xyz="3.145000000909425 -2.4025000000000025 0.3000000000000002"/>
    <parent link="world"/>
    <child link="board_18x600x2400_150"/>
  </joint>
  <!-- link -->
  <link name="board_18x600x2400_150">
    <!-- inertial -->
    <inertial>
      <origin rpy="0 0 0" xyz="0 0 0"/>
      <mass value="1"/>
      <inertia ixx="1.0" ixy="0.0" ixz="0.0" iyy="1.0" iyz="0.0" izz="1.0"/>
    </inertial>
    <!-- visual -->
    <visual>
      <origin rpy="0 0 0" xyz="0 0 0"/>
      <geometry>
        <mesh filename="package://ICRA2024_Quadruped_Competition/meshes/visual/board_18x600x2400.obj"/>
      </geometry>
      <material name="">
        <color rgba="0.92 0.93 0.90 1"/>
      </material>
    </visual>
    <!-- collision -->
    <collision>
      <origin rpy="0 0 0" xyz="0 0 0"/>
      <geometry>
        <mesh filename="package://ICRA2024_Quadruped_Competition/meshes/visual/board_18x600x2400.obj"/>
      </geometry>
      <material name="">
        <color rgba="1 0 0 1"/>
      </material>
    </collision>
  </link>
  <!-- gazebo -->
  <gazebo reference="board_18x600x2400_150">
    <static>true</static>
  </gazebo>
  <!-- fixed joint -->
  <joint name="board_18x600x2400_156_joint" type="fixed">
    <origin rpy="0.0 -0.0 2.081668171172167e-16" xyz="3.145000000909425 -4.820500000000002 0.3000000000000003"/>
    <parent link="world"/>
    <child link="board_18x600x2400_156"/>
  </joint>
  <!-- link -->
  <link name="board_18x600x2400_156">
    <!-- inertial -->
    <inertial>
      <origin rpy="0 0 0" xyz="0 0 0"/>
      <mass value="1"/>
      <inertia ixx="1.0" ixy="0.0" ixz="0.0" iyy="1.0" iyz="0.0" izz="1.0"/>
    </inertial>
    <!-- visual -->
    <visual>
      <origin rpy="0 0 0" xyz="0 0 0"/>
      <geometry>
        <mesh filename="package://ICRA2024_Quadruped_Competition/meshes/visual/board_18x600x2400.obj"/>
      </geometry>
      <material name="">
        <color rgba="0.92 0.93 0.90 1"/>
      </material>
    </visual>
    <!-- collision -->
    <collision>
      <origin rpy="0 0 0" xyz="0 0 0"/>
      <geometry>
        <mesh filename="package://ICRA2024_Quadruped_Competition/meshes/visual/board_18x600x2400.obj"/>
      </geometry>
      <material name="">
        <color rgba="1 0 0 1"/>
      </material>
    </collision>
  </link>
  <!-- gazebo -->
  <gazebo reference="board_18x600x2400_156">
    <static>true</static>
  </gazebo>
  <!-- fixed joint -->
  <joint name="board_18x600x2400_165_joint" type="fixed">
    <origin rpy="0.0 -0.0 0.0" xyz="-0.322999999090575 -2.4025000000000047 0.3"/>
    <parent link="world"/>
    <child link="board_18x600x2400_165"/>
  </joint>
  <!-- link -->
  <link name="board_18x600x2400_165">
    <!-- inertial -->
    <inertial>
      <origin rpy="0 0 0" xyz="0 0 0"/>
      <mass value="1"/>
      <inertia ixx="1.0" ixy="0.0" ixz="0.0" iyy="1.0" iyz="0.0" izz="1.0"/>
    </inertial>
    <!-- visual -->
    <visual>
      <origin rpy="0 0 0" xyz="0 0 0"/>
      <geometry>
        <mesh filename="package://ICRA2024_Quadruped_Competition/meshes/visual/board_18x600x2400.obj"/>
      </geometry>
      <material name="">
        <color rgba="0.92 0.93 0.90 1"/>
      </material>
    </visual>
    <!-- collision -->
    <collision>
      <origin rpy="0 0 0" xyz="0 0 0"/>
      <geometry>
        <mesh filename="package://ICRA2024_Quadruped_Competition/meshes/visual/board_18x600x2400.obj"/>
      </geometry>
      <material name="">
        <color rgba="1 0 0 1"/>
      </material>
    </collision>
  </link>
  <!-- gazebo -->
  <gazebo reference="board_18x600x2400_165">
    <static>true</static>
  </gazebo>
  <!-- fixed joint -->
  <joint name="board_18x600x2400_176_joint" type="fixed">
    <origin rpy="0.0 -0.0 0.0" xyz="-5.122999999090575 -4.8205000000000044 0.3"/>
    <parent link="world"/>
    <child link="board_18x600x2400_176"/>
  </joint>
  <!-- link -->
  <link name="board_18x600x2400_176">
    <!-- inertial -->
    <inertial>
      <origin rpy="0 0 0" xyz="0 0 0"/>
      <mass value="1"/>
      <inertia ixx="1.0" ixy="0.0" ixz="0.0" iyy="1.0" iyz="0.0" izz="1.0"/>
    </inertial>
    <!-- visual -->
    <visual>
      <origin rpy="0 0 0" xyz="0 0 0"/>
      <geometry>
        <mesh filename="package://ICRA2024_Quadruped_Competition/meshes/visual/board_18x600x2400.obj"/>
      </geometry>
      <material name="">
        <color rgba="0.92 0.93 0.90 1"/>
      </material>
    </visual>
    <!-- collision -->
    <collision>
      <origin rpy="0 0 0" xyz="0 0 0"/>
      <geometry>
        <mesh filename="package://ICRA2024_Quadruped_Competition/meshes/visual/board_18x600x2400.obj"/>
      </geometry>
      <material name="">
        <color rgba="1 0 0 1"/>
      </material>
    </collision>
  </link>
  <!-- gazebo -->
  <gazebo reference="board_18x600x2400_176">
    <static>true</static>
  </gazebo>
  <!-- fixed joint -->
  <joint name="board_18x600x2400_184_joint" type="fixed">
    <origin rpy="0.0 -0.0 0.0" xyz="-2.7229999990905753 -4.8205000000000044 0.2999999999999999"/>
    <parent link="world"/>
    <child link="board_18x600x2400_184"/>
  </joint>
  <!-- link -->
  <link name="board_18x600x2400_184">
    <!-- inertial -->
    <inertial>
      <origin rpy="0 0 0" xyz="0 0 0"/>
      <mass value="1"/>
      <inertia ixx="1.0" ixy="0.0" ixz="0.0" iyy="1.0" iyz="0.0" izz="1.0"/>
    </inertial>
    <!-- visual -->
    <visual>
      <origin rpy="0 0 0" xyz="0 0 0"/>
      <geometry>
        <mesh filename="package://ICRA2024_Quadruped_Competition/meshes/visual/board_18x600x2400.obj"/>
      </geometry>
      <material name="">
        <color rgba="0.92 0.93 0.90 1"/>
      </material>
    </visual>
    <!-- collision -->
    <collision>
      <origin rpy="0 0 0" xyz="0 0 0"/>
      <geometry>
        <mesh filename="package://ICRA2024_Quadruped_Competition/meshes/visual/board_18x600x2400.obj"/>
      </geometry>
      <material name="">
        <color rgba="1 0 0 1"/>
      </material>
    </collision>
  </link>
  <!-- gazebo -->
  <gazebo reference="board_18x600x2400_184">
    <static>true</static>
  </gazebo>
  <!-- fixed joint -->
  <joint name="board_18x600x2400_192_joint" type="fixed">
    <origin rpy="0.0 -0.0 0.0" xyz="-2.7229999990905753 -2.402500000000005 0.3000000000000003"/>
    <parent link="world"/>
    <child link="board_18x600x2400_192"/>
  </joint>
  <!-- link -->
  <link name="board_18x600x2400_192">
    <!-- inertial -->
    <inertial>
      <origin rpy="0 0 0" xyz="0 0 0"/>
      <mass value="1"/>
      <inertia ixx="1.0" ixy="0.0" ixz="0.0" iyy="1.0" iyz="0.0" izz="1.0"/>
    </inertial>
    <!-- visual -->
    <visual>
      <origin rpy="0 0 0" xyz="0 0 0"/>
      <geometry>
        <mesh filename="package://ICRA2024_Quadruped_Competition/meshes/visual/board_18x600x2400.obj"/>
      </geometry>
      <material name="">
        <color rgba="0.92 0.93 0.90 1"/>
      </material>
    </visual>
    <!-- collision -->
    <collision>
      <origin rpy="0 0 0" xyz="0 0 0"/>
      <geometry>
        <mesh filename="package://ICRA2024_Quadruped_Competition/meshes/visual/board_18x600x2400.obj"/>
      </geometry>
      <material name="">
        <color rgba="1 0 0 1"/>
      </material>
    </collision>
  </link>
  <!-- gazebo -->
  <gazebo reference="board_18x600x2400_192">
    <static>true</static>
  </gazebo>
  <!-- fixed joint -->
  <joint name="board_50x50x300_40_joint" type="fixed">
    <origin rpy="0.0 -0.0 0.0" xyz="6.720000000909427 3.5865000000000054 0.4500000000000001"/>
    <parent link="world"/>
    <child link="board_50x50x300_40"/>
  </joint>
  <!-- link -->
  <link name="board_50x50x300_40">
    <!-- inertial -->
    <inertial>
      <origin rpy="0 0 0" xyz="0 0 0"/>
      <mass value="1"/>
      <inertia ixx="1.0" ixy="0.0" ixz="0.0" iyy="1.0" iyz="0.0" izz="1.0"/>
    </inertial>
    <!-- visual -->
    <visual>
      <origin rpy="0 0 0" xyz="0 0 0"/>
      <geometry>
        <mesh filename="package://ICRA2024_Quadruped_Competition/meshes/visual/board_50x50x300.obj"/>
      </geometry>
      <material name="">
        <color rgba="0.92 0.93 0.90 1"/>
      </material>
    </visual>
    <!-- collision -->
    <collision>
      <origin rpy="0 0 0" xyz="0 0 0"/>
      <geometry>
        <mesh filename="package://ICRA2024_Quadruped_Competition/meshes/visual/board_50x50x300.obj"/>
      </geometry>
      <material name="">
        <color rgba="1 0 0 1"/>
      </material>
    </collision>
  </link>
  <!-- gazebo -->
  <gazebo reference="board_50x50x300_40">
    <static>true</static>
  </gazebo>
  <!-- fixed joint -->
  <joint name="board_50x50x300_41_joint" type="fixed">
    <origin rpy="0.0 -0.0 0.0" xyz="6.720000000909427 2.4365000000000077 0.4500000000000001"/>
    <parent link="world"/>
    <child link="board_50x50x300_41"/>
  </joint>
  <!-- link -->
  <link name="board_50x50x300_41">
    <!-- inertial -->
    <inertial>
      <origin rpy="0 0 0" xyz="0 0 0"/>
      <mass value="1"/>
      <inertia ixx="1.0" ixy="0.0" ixz="0.0" iyy="1.0" iyz="0.0" izz="1.0"/>
    </inertial>
    <!-- visual -->
    <visual>
      <origin rpy="0 0 0" xyz="0 0 0"/>
      <geometry>
        <mesh filename="package://ICRA2024_Quadruped_Competition/meshes/visual/board_50x50x300.obj"/>
      </geometry>
      <material name="">
        <color rgba="0.92 0.93 0.90 1"/>
      </material>
    </visual>
    <!-- collision -->
    <collision>
      <origin rpy="0 0 0" xyz="0 0 0"/>
      <geometry>
        <mesh filename="package://ICRA2024_Quadruped_Competition/meshes/visual/board_50x50x300.obj"/>
      </geometry>
      <material name="">
        <color rgba="1 0 0 1"/>
      </material>
    </collision>
  </link>
  <!-- gazebo -->
  <gazebo reference="board_50x50x300_41">
    <static>true</static>
  </gazebo>
  <!-- fixed joint -->
  <joint name="board_50x50x300_42_joint" type="fixed">
    <origin rpy="0.0 -0.0 0.0" xyz="-0.42999999909057296 4.786500000000002 0.4500000000000001"/>
    <parent link="world"/>
    <child link="board_50x50x300_42"/>
  </joint>
  <!-- link -->
  <link name="board_50x50x300_42">
    <!-- inertial -->
    <inertial>
      <origin rpy="0 0 0" xyz="0 0 0"/>
      <mass value="1"/>
      <inertia ixx="1.0" ixy="0.0" ixz="0.0" iyy="1.0" iyz="0.0" izz="1.0"/>
    </inertial>
    <!-- visual -->
    <visual>
      <origin rpy="0 0 0" xyz="0 0 0"/>
      <geometry>
        <mesh filename="package://ICRA2024_Quadruped_Competition/meshes/visual/board_50x50x300.obj"/>
      </geometry>
      <material name="">
        <color rgba="0.92 0.93 0.90 1"/>
      </material>
    </visual>
    <!-- collision -->
    <collision>
      <origin rpy="0 0 0" xyz="0 0 0"/>
      <geometry>
        <mesh filename="package://ICRA2024_Quadruped_Competition/meshes/visual/board_50x50x300.obj"/>
      </geometry>
      <material name="">
        <color rgba="1 0 0 1"/>
      </material>
    </collision>
  </link>
  <!-- gazebo -->
  <gazebo reference="board_50x50x300_42">
    <static>true</static>
  </gazebo>
  <!-- fixed joint -->
  <joint name="board_50x50x300_43_joint" type="fixed">
    <origin rpy="0.0 -0.0 0.0" xyz="-0.42999999909057296 3.6505000000000014 0.4500000000000001"/>
    <parent link="world"/>
    <child link="board_50x50x300_43"/>
  </joint>
  <!-- link -->
  <link name="board_50x50x300_43">
    <!-- inertial -->
    <inertial>
      <origin rpy="0 0 0" xyz="0 0 0"/>
      <mass value="1"/>
      <inertia ixx="1.0" ixy="0.0" ixz="0.0" iyy="1.0" iyz="0.0" izz="1.0"/>
    </inertial>
    <!-- visual -->
    <visual>
      <origin rpy="0 0 0" xyz="0 0 0"/>
      <geometry>
        <mesh filename="package://ICRA2024_Quadruped_Competition/meshes/visual/board_50x50x300.obj"/>
      </geometry>
      <material name="">
        <color rgba="0.92 0.93 0.90 1"/>
      </material>
    </visual>
    <!-- collision -->
    <collision>
      <origin rpy="0 0 0" xyz="0 0 0"/>
      <geometry>
        <mesh filename="package://ICRA2024_Quadruped_Competition/meshes/visual/board_50x50x300.obj"/>
      </geometry>
      <material name="">
        <color rgba="1 0 0 1"/>
      </material>
    </collision>
  </link>
  <!-- gazebo -->
  <gazebo reference="board_50x50x300_43">
    <static>true</static>
  </gazebo>
  <!-- fixed joint -->
  <joint name="board_50x50x300_48_joint" type="fixed">
    <origin rpy="0.0 -0.0 0.0" xyz="4.320000000909426 4.786500000000002 0.45000000000000046"/>
    <parent link="world"/>
    <child link="board_50x50x300_48"/>
  </joint>
  <!-- link -->
  <link name="board_50x50x300_48">
    <!-- inertial -->
    <inertial>
      <origin rpy="0 0 0" xyz="0 0 0"/>
      <mass value="1"/>
      <inertia ixx="1.0" ixy="0.0" ixz="0.0" iyy="1.0" iyz="0.0" izz="1.0"/>
    </inertial>
    <!-- visual -->
    <visual>
      <origin rpy="0 0 0" xyz="0 0 0"/>
      <geometry>
        <mesh filename="package://ICRA2024_Quadruped_Competition/meshes/visual/board_50x50x300.obj"/>
      </geometry>
      <material name="">
        <color rgba="0.92 0.93 0.90 1"/>
      </material>
    </visual>
    <!-- collision -->
    <collision>
      <origin rpy="0 0 0" xyz="0 0 0"/>
      <geometry>
        <mesh filename="package://ICRA2024_Quadruped_Competition/meshes/visual/board_50x50x300.obj"/>
      </geometry>
      <material name="">
        <color rgba="1 0 0 1"/>
      </material>
    </collision>
  </link>
  <!-- gazebo -->
  <gazebo reference="board_50x50x300_48">
    <static>true</static>
  </gazebo>
  <!-- fixed joint -->
  <joint name="board_50x50x300_51_joint" type="fixed">
    <origin rpy="0.0 -0.0 0.0" xyz="4.320000000909426 3.654500000000006 0.45000000000000046"/>
    <parent link="world"/>
    <child link="board_50x50x300_51"/>
  </joint>
  <!-- link -->
  <link name="board_50x50x300_51">
    <!-- inertial -->
    <inertial>
      <origin rpy="0 0 0" xyz="0 0 0"/>
      <mass value="1"/>
      <inertia ixx="1.0" ixy="0.0" ixz="0.0" iyy="1.0" iyz="0.0" izz="1.0"/>
    </inertial>
    <!-- visual -->
    <visual>
      <origin rpy="0 0 0" xyz="0 0 0"/>
      <geometry>
        <mesh filename="package://ICRA2024_Quadruped_Competition/meshes/visual/board_50x50x300.obj"/>
      </geometry>
      <material name="">
        <color rgba="0.92 0.93 0.90 1"/>
      </material>
    </visual>
    <!-- collision -->
    <collision>
      <origin rpy="0 0 0" xyz="0 0 0"/>
      <geometry>
        <mesh filename="package://ICRA2024_Quadruped_Competition/meshes/visual/board_50x50x300.obj"/>
      </geometry>
      <material name="">
        <color rgba="1 0 0 1"/>
      </material>
    </collision>
  </link>
  <!-- gazebo -->
  <gazebo reference="board_50x50x300_51">
    <static>true</static>
  </gazebo>
  <!-- fixed joint -->
  <joint name="board_50x50x300_64_joint" type="fixed">
    <origin rpy="0.0 -0.0 0.0" xyz="1.970000000909426 3.586500000000005 0.45000000000000046"/>
    <parent link="world"/>
    <child link="board_50x50x300_64"/>
  </joint>
  <!-- link -->
  <link name="board_50x50x300_64">
    <!-- inertial -->
    <inertial>
      <origin rpy="0 0 0" xyz="0 0 0"/>
      <mass value="1"/>
      <inertia ixx="1.0" ixy="0.0" ixz="0.0" iyy="1.0" iyz="0.0" izz="1.0"/>
    </inertial>
    <!-- visual -->
    <visual>
      <origin rpy="0 0 0" xyz="0 0 0"/>
      <geometry>
        <mesh filename="package://ICRA2024_Quadruped_Competition/meshes/visual/board_50x50x300.obj"/>
      </geometry>
      <material name="">
        <color rgba="0.92 0.93 0.90 1"/>
      </material>
    </visual>
    <!-- collision -->
    <collision>
      <origin rpy="0 0 0" xyz="0 0 0"/>
      <geometry>
        <mesh filename="package://ICRA2024_Quadruped_Competition/meshes/visual/board_50x50x300.obj"/>
      </geometry>
      <material name="">
        <color rgba="1 0 0 1"/>
      </material>
    </collision>
  </link>
  <!-- gazebo -->
  <gazebo reference="board_50x50x300_64">
    <static>true</static>
  </gazebo>
  <!-- fixed joint -->
  <joint name="board_50x50x300_65_joint" type="fixed">
    <origin rpy="0.0 -0.0 0.0" xyz="1.970000000909426 2.436500000000007 0.45000000000000046"/>
    <parent link="world"/>
    <child link="board_50x50x300_65"/>
  </joint>
  <!-- link -->
  <link name="board_50x50x300_65">
    <!-- inertial -->
    <inertial>
      <origin rpy="0 0 0" xyz="0 0 0"/>
      <mass value="1"/>
      <inertia ixx="1.0" ixy="0.0" ixz="0.0" iyy="1.0" iyz="0.0" izz="1.0"/>
    </inertial>
    <!-- visual -->
    <visual>
      <origin rpy="0 0 0" xyz="0 0 0"/>
      <geometry>
        <mesh filename="package://ICRA2024_Quadruped_Competition/meshes/visual/board_50x50x300.obj"/>
      </geometry>
      <material name="">
        <color rgba="0.92 0.93 0.90 1"/>
      </material>
    </visual>
    <!-- collision -->
    <collision>
      <origin rpy="0 0 0" xyz="0 0 0"/>
      <geometry>
        <mesh filename="package://ICRA2024_Quadruped_Competition/meshes/visual/board_50x50x300.obj"/>
      </geometry>
      <material name="">
        <color rgba="1 0 0 1"/>
      </material>
    </collision>
  </link>
  <!-- gazebo -->
  <gazebo reference="board_50x50x300_65">
    <static>true</static>
  </gazebo>
  <!-- fixed joint -->
  <joint name="board_50x50x300_101_joint" type="fixed">
    <origin rpy="0.0 -0.0 0.0" xyz="0.8520000009094266 3.5865000000000027 0.4500000000000001"/>
    <parent link="world"/>
    <child link="board_50x50x300_101"/>
  </joint>
  <!-- link -->
  <link name="board_50x50x300_101">
    <!-- inertial -->
    <inertial>
      <origin rpy="0 0 0" xyz="0 0 0"/>
      <mass value="1"/>
      <inertia ixx="1.0" ixy="0.0" ixz="0.0" iyy="1.0" iyz="0.0" izz="1.0"/>
    </inertial>
    <!-- visual -->
    <visual>
      <origin rpy="0 0 0" xyz="0 0 0"/>
      <geometry>
        <mesh filename="package://ICRA2024_Quadruped_Competition/meshes/visual/board_50x50x300.obj"/>
      </geometry>
      <material name="">
        <color rgba="0.92 0.93 0.90 1"/>
      </material>
    </visual>
    <!-- collision -->
    <collision>
      <origin rpy="0 0 0" xyz="0 0 0"/>
      <geometry>
        <mesh filename="package://ICRA2024_Quadruped_Competition/meshes/visual/board_50x50x300.obj"/>
      </geometry>
      <material name="">
        <color rgba="1 0 0 1"/>
      </material>
    </collision>
  </link>
  <!-- gazebo -->
  <gazebo reference="board_50x50x300_101">
    <static>true</static>
  </gazebo>
  <!-- fixed joint -->
  <joint name="board_50x50x300_102_joint" type="fixed">
    <origin rpy="0.0 -0.0 0.0" xyz="0.8520000009094266 2.436500000000005 0.4500000000000001"/>
    <parent link="world"/>
    <child link="board_50x50x300_102"/>
  </joint>
  <!-- link -->
  <link name="board_50x50x300_102">
    <!-- inertial -->
    <inertial>
      <origin rpy="0 0 0" xyz="0 0 0"/>
      <mass value="1"/>
      <inertia ixx="1.0" ixy="0.0" ixz="0.0" iyy="1.0" iyz="0.0" izz="1.0"/>
    </inertial>
    <!-- visual -->
    <visual>
      <origin rpy="0 0 0" xyz="0 0 0"/>
      <geometry>
        <mesh filename="package://ICRA2024_Quadruped_Competition/meshes/visual/board_50x50x300.obj"/>
      </geometry>
      <material name="">
        <color rgba="0.92 0.93 0.90 1"/>
      </material>
    </visual>
    <!-- collision -->
    <collision>
      <origin rpy="0 0 0" xyz="0 0 0"/>
      <geometry>
        <mesh filename="package://ICRA2024_Quadruped_Competition/meshes/visual/board_50x50x300.obj"/>
      </geometry>
      <material name="">
        <color rgba="1 0 0 1"/>
      </material>
    </collision>
  </link>
  <!-- gazebo -->
  <gazebo reference="board_50x50x300_102">
    <static>true</static>
  </gazebo>
  <!-- fixed joint -->
  <joint name="board_50x50x300_103_joint" type="fixed">
    <origin rpy="0.0 -0.0 0.0" xyz="-6.297999999090573 4.786499999999998 0.4500000000000001"/>
    <parent link="world"/>
    <child link="board_50x50x300_103"/>
  </joint>
  <!-- link -->
  <link name="board_50x50x300_103">
    <!-- inertial -->
    <inertial>
      <origin rpy="0 0 0" xyz="0 0 0"/>
      <mass value="1"/>
      <inertia ixx="1.0" ixy="0.0" ixz="0.0" iyy="1.0" iyz="0.0" izz="1.0"/>
    </inertial>
    <!-- visual -->
    <visual>
      <origin rpy="0 0 0" xyz="0 0 0"/>
      <geometry>
        <mesh filename="package://ICRA2024_Quadruped_Competition/meshes/visual/board_50x50x300.obj"/>
      </geometry>
      <material name="">
        <color rgba="0.92 0.93 0.90 1"/>
      </material>
    </visual>
    <!-- collision -->
    <collision>
      <origin rpy="0 0 0" xyz="0 0 0"/>
      <geometry>
        <mesh filename="package://ICRA2024_Quadruped_Competition/meshes/visual/board_50x50x300.obj"/>
      </geometry>
      <material name="">
        <color rgba="1 0 0 1"/>
      </material>
    </collision>
  </link>
  <!-- gazebo -->
  <gazebo reference="board_50x50x300_103">
    <static>true</static>
  </gazebo>
  <!-- fixed joint -->
  <joint name="board_50x50x300_104_joint" type="fixed">
    <origin rpy="0.0 -0.0 0.0" xyz="-6.297999999090573 3.6544999999999983 0.4500000000000001"/>
    <parent link="world"/>
    <child link="board_50x50x300_104"/>
  </joint>
  <!-- link -->
  <link name="board_50x50x300_104">
    <!-- inertial -->
    <inertial>
      <origin rpy="0 0 0" xyz="0 0 0"/>
      <mass value="1"/>
      <inertia ixx="1.0" ixy="0.0" ixz="0.0" iyy="1.0" iyz="0.0" izz="1.0"/>
    </inertial>
    <!-- visual -->
    <visual>
      <origin rpy="0 0 0" xyz="0 0 0"/>
      <geometry>
        <mesh filename="package://ICRA2024_Quadruped_Competition/meshes/visual/board_50x50x300.obj"/>
      </geometry>
      <material name="">
        <color rgba="0.92 0.93 0.90 1"/>
      </material>
    </visual>
    <!-- collision -->
    <collision>
      <origin rpy="0 0 0" xyz="0 0 0"/>
      <geometry>
        <mesh filename="package://ICRA2024_Quadruped_Competition/meshes/visual/board_50x50x300.obj"/>
      </geometry>
      <material name="">
        <color rgba="1 0 0 1"/>
      </material>
    </collision>
  </link>
  <!-- gazebo -->
  <gazebo reference="board_50x50x300_104">
    <static>true</static>
  </gazebo>
  <!-- fixed joint -->
  <joint name="board_50x50x300_106_joint" type="fixed">
    <origin rpy="0.0 -0.0 0.0" xyz="-3.9659999990919 3.568500000000022 0.4499999999999999"/>
    <parent link="world"/>
    <child link="board_50x50x300_106"/>
  </joint>
  <!-- link -->
  <link name="board_50x50x300_106">
    <!-- inertial -->
    <inertial>
      <origin rpy="0 0 0" xyz="0 0 0"/>
      <mass value="1"/>
      <inertia ixx="1.0" ixy="0.0" ixz="0.0" iyy="1.0" iyz="0.0" izz="1.0"/>
    </inertial>
    <!-- visual -->
    <visual>
      <origin rpy="0 0 0" xyz="0 0 0"/>
      <geometry>
        <mesh filename="package://ICRA2024_Quadruped_Competition/meshes/visual/board_50x50x300.obj"/>
      </geometry>
      <material name="">
        <color rgba="0.92 0.93 0.90 1"/>
      </material>
    </visual>
    <!-- collision -->
    <collision>
      <origin rpy="0 0 0" xyz="0 0 0"/>
      <geometry>
        <mesh filename="package://ICRA2024_Quadruped_Competition/meshes/visual/board_50x50x300.obj"/>
      </geometry>
      <material name="">
        <color rgba="1 0 0 1"/>
      </material>
    </collision>
  </link>
  <!-- gazebo -->
  <gazebo reference="board_50x50x300_106">
    <static>true</static>
  </gazebo>
  <!-- fixed joint -->
  <joint name="board_50x50x300_107_joint" type="fixed">
    <origin rpy="0.0 -0.0 0.0" xyz="-5.115999999091914 3.568500000000022 0.4499999999999999"/>
    <parent link="world"/>
    <child link="board_50x50x300_107"/>
  </joint>
  <!-- link -->
  <link name="board_50x50x300_107">
    <!-- inertial -->
    <inertial>
      <origin rpy="0 0 0" xyz="0 0 0"/>
      <mass value="1"/>
      <inertia ixx="1.0" ixy="0.0" ixz="0.0" iyy="1.0" iyz="0.0" izz="1.0"/>
    </inertial>
    <!-- visual -->
    <visual>
      <origin rpy="0 0 0" xyz="0 0 0"/>
      <geometry>
        <mesh filename="package://ICRA2024_Quadruped_Competition/meshes/visual/board_50x50x300.obj"/>
      </geometry>
      <material name="">
        <color rgba="0.92 0.93 0.90 1"/>
      </material>
    </visual>
    <!-- collision -->
    <collision>
      <origin rpy="0 0 0" xyz="0 0 0"/>
      <geometry>
        <mesh filename="package://ICRA2024_Quadruped_Competition/meshes/visual/board_50x50x300.obj"/>
      </geometry>
      <material name="">
        <color rgba="1 0 0 1"/>
      </material>
    </collision>
  </link>
  <!-- gazebo -->
  <gazebo reference="board_50x50x300_107">
    <static>true</static>
  </gazebo>
  <!-- fixed joint -->
  <joint name="board_50x50x300_115_joint" type="fixed">
    <origin rpy="0.0 -0.0 0.0" xyz="-1.547999999090575 4.786499999999998 0.45000000000000046"/>
    <parent link="world"/>
    <child link="board_50x50x300_115"/>
  </joint>
  <!-- link -->
  <link name="board_50x50x300_115">
    <!-- inertial -->
    <inertial>
      <origin rpy="0 0 0" xyz="0 0 0"/>
      <mass value="1"/>
      <inertia ixx="1.0" ixy="0.0" ixz="0.0" iyy="1.0" iyz="0.0" izz="1.0"/>
    </inertial>
    <!-- visual -->
    <visual>
      <origin rpy="0 0 0" xyz="0 0 0"/>
      <geometry>
        <mesh filename="package://ICRA2024_Quadruped_Competition/meshes/visual/board_50x50x300.obj"/>
      </geometry>
      <material name="">
        <color rgba="0.92 0.93 0.90 1"/>
      </material>
    </visual>
    <!-- collision -->
    <collision>
      <origin rpy="0 0 0" xyz="0 0 0"/>
      <geometry>
        <mesh filename="package://ICRA2024_Quadruped_Competition/meshes/visual/board_50x50x300.obj"/>
      </geometry>
      <material name="">
        <color rgba="1 0 0 1"/>
      </material>
    </collision>
  </link>
  <!-- gazebo -->
  <gazebo reference="board_50x50x300_115">
    <static>true</static>
  </gazebo>
  <!-- fixed joint -->
  <joint name="board_50x50x300_119_joint" type="fixed">
    <origin rpy="0.0 -0.0 0.0" xyz="-1.4799999990905752 3.654500000000003 0.45000000000000046"/>
    <parent link="world"/>
    <child link="board_50x50x300_119"/>
  </joint>
  <!-- link -->
  <link name="board_50x50x300_119">
    <!-- inertial -->
    <inertial>
      <origin rpy="0 0 0" xyz="0 0 0"/>
      <mass value="1"/>
      <inertia ixx="1.0" ixy="0.0" ixz="0.0" iyy="1.0" iyz="0.0" izz="1.0"/>
    </inertial>
    <!-- visual -->
    <visual>
      <origin rpy="0 0 0" xyz="0 0 0"/>
      <geometry>
        <mesh filename="package://ICRA2024_Quadruped_Competition/meshes/visual/board_50x50x300.obj"/>
      </geometry>
      <material name="">
        <color rgba="0.92 0.93 0.90 1"/>
      </material>
    </visual>
    <!-- collision -->
    <collision>
      <origin rpy="0 0 0" xyz="0 0 0"/>
      <geometry>
        <mesh filename="package://ICRA2024_Quadruped_Competition/meshes/visual/board_50x50x300.obj"/>
      </geometry>
      <material name="">
        <color rgba="1 0 0 1"/>
      </material>
    </collision>
  </link>
  <!-- gazebo -->
  <gazebo reference="board_50x50x300_119">
    <static>true</static>
  </gazebo>
  <!-- fixed joint -->
  <joint name="board_50x50x300_120_joint" type="fixed">
    <origin rpy="0.0 -0.0 0.0" xyz="-1.547999999090575 3.654500000000003 0.45000000000000046"/>
    <parent link="world"/>
    <child link="board_50x50x300_120"/>
  </joint>
  <!-- link -->
  <link name="board_50x50x300_120">
    <!-- inertial -->
    <inertial>
      <origin rpy="0 0 0" xyz="0 0 0"/>
      <mass value="1"/>
      <inertia ixx="1.0" ixy="0.0" ixz="0.0" iyy="1.0" iyz="0.0" izz="1.0"/>
    </inertial>
    <!-- visual -->
    <visual>
      <origin rpy="0 0 0" xyz="0 0 0"/>
      <geometry>
        <mesh filename="package://ICRA2024_Quadruped_Competition/meshes/visual/board_50x50x300.obj"/>
      </geometry>
      <material name="">
        <color rgba="0.92 0.93 0.90 1"/>
      </material>
    </visual>
    <!-- collision -->
    <collision>
      <origin rpy="0 0 0" xyz="0 0 0"/>
      <geometry>
        <mesh filename="package://ICRA2024_Quadruped_Competition/meshes/visual/board_50x50x300.obj"/>
      </geometry>
      <material name="">
        <color rgba="1 0 0 1"/>
      </material>
    </collision>
  </link>
  <!-- gazebo -->
  <gazebo reference="board_50x50x300_120">
    <static>true</static>
  </gazebo>
  <!-- fixed joint -->
  <joint name="board_50x50x300_125_joint" type="fixed">
    <origin rpy="0.0 -0.0 0.0" xyz="-3.897999999091899 3.5684999999999856 0.45"/>
    <parent link="world"/>
    <child link="board_50x50x300_125"/>
  </joint>
  <!-- link -->
  <link name="board_50x50x300_125">
    <!-- inertial -->
    <inertial>
      <origin rpy="0 0 0" xyz="0 0 0"/>
      <mass value="1"/>
      <inertia ixx="1.0" ixy="0.0" ixz="0.0" iyy="1.0" iyz="0.0" izz="1.0"/>
    </inertial>
    <!-- visual -->
    <visual>
      <origin rpy="0 0 0" xyz="0 0 0"/>
      <geometry>
        <mesh filename="package://ICRA2024_Quadruped_Competition/meshes/visual/board_50x50x300.obj"/>
      </geometry>
      <material name="">
        <color rgba="0.92 0.93 0.90 1"/>
      </material>
    </visual>
    <!-- collision -->
    <collision>
      <origin rpy="0 0 0" xyz="0 0 0"/>
      <geometry>
        <mesh filename="package://ICRA2024_Quadruped_Competition/meshes/visual/board_50x50x300.obj"/>
      </geometry>
      <material name="">
        <color rgba="1 0 0 1"/>
      </material>
    </collision>
  </link>
  <!-- gazebo -->
  <gazebo reference="board_50x50x300_125">
    <static>true</static>
  </gazebo>
  <!-- fixed joint -->
  <joint name="board_50x50x300_127_joint" type="fixed">
    <origin rpy="0.0 -0.0 0.0" xyz="-3.8979999990905743 2.436500000000005 0.45000000000000023"/>
    <parent link="world"/>
    <child link="board_50x50x300_127"/>
  </joint>
  <!-- link -->
  <link name="board_50x50x300_127">
    <!-- inertial -->
    <inertial>
      <origin rpy="0 0 0" xyz="0 0 0"/>
      <mass value="1"/>
      <inertia ixx="1.0" ixy="0.0" ixz="0.0" iyy="1.0" iyz="0.0" izz="1.0"/>
    </inertial>
    <!-- visual -->
    <visual>
      <origin rpy="0 0 0" xyz="0 0 0"/>
      <geometry>
        <mesh filename="package://ICRA2024_Quadruped_Competition/meshes/visual/board_50x50x300.obj"/>
      </geometry>
      <material name="">
        <color rgba="0.92 0.93 0.90 1"/>
      </material>
    </visual>
    <!-- collision -->
    <collision>
      <origin rpy="0 0 0" xyz="0 0 0"/>
      <geometry>
        <mesh filename="package://ICRA2024_Quadruped_Competition/meshes/visual/board_50x50x300.obj"/>
      </geometry>
      <material name="">
        <color rgba="1 0 0 1"/>
      </material>
    </collision>
  </link>
  <!-- gazebo -->
  <gazebo reference="board_50x50x300_127">
    <static>true</static>
  </gazebo>
  <!-- fixed joint -->
  <joint name="board_50x50x300_140_joint" type="fixed">
    <origin rpy="0.0 -0.0 0.0" xyz="6.720000000909427 -3.5935000000000037 0.4500000000000001"/>
    <parent link="world"/>
    <child link="board_50x50x300_140"/>
  </joint>
  <!-- link -->
  <link name="board_50x50x300_140">
    <!-- inertial -->
    <inertial>
      <origin rpy="0 0 0" xyz="0 0 0"/>
      <mass value="1"/>
      <inertia ixx="1.0" ixy="0.0" ixz="0.0" iyy="1.0" iyz="0.0" izz="1.0"/>
    </inertial>
    <!-- visual -->
    <visual>
      <origin rpy="0 0 0" xyz="0 0 0"/>
      <geometry>
        <mesh filename="package://ICRA2024_Quadruped_Competition/meshes/visual/board_50x50x300.obj"/>
      </geometry>
      <material name="">
        <color rgba="0.92 0.93 0.90 1"/>
      </material>
    </visual>
    <!-- collision -->
    <collision>
      <origin rpy="0 0 0" xyz="0 0 0"/>
      <geometry>
        <mesh filename="package://ICRA2024_Quadruped_Competition/meshes/visual/board_50x50x300.obj"/>
      </geometry>
      <material name="">
        <color rgba="1 0 0 1"/>
      </material>
    </collision>
  </link>
  <!-- gazebo -->
  <gazebo reference="board_50x50x300_140">
    <static>true</static>
  </gazebo>
  <!-- fixed joint -->
  <joint name="board_50x50x300_141_joint" type="fixed">
    <origin rpy="0.0 -0.0 0.0" xyz="6.720000000909427 -2.436500000000003 0.4500000000000001"/>
    <parent link="world"/>
    <child link="board_50x50x300_141"/>
  </joint>
  <!-- link -->
  <link name="board_50x50x300_141">
    <!-- inertial -->
    <inertial>
      <origin rpy="0 0 0" xyz="0 0 0"/>
      <mass value="1"/>
      <inertia ixx="1.0" ixy="0.0" ixz="0.0" iyy="1.0" iyz="0.0" izz="1.0"/>
    </inertial>
    <!-- visual -->
    <visual>
      <origin rpy="0 0 0" xyz="0 0 0"/>
      <geometry>
        <mesh filename="package://ICRA2024_Quadruped_Competition/meshes/visual/board_50x50x300.obj"/>
      </geometry>
      <material name="">
        <color rgba="0.92 0.93 0.90 1"/>
      </material>
    </visual>
    <!-- collision -->
    <collision>
      <origin rpy="0 0 0" xyz="0 0 0"/>
      <geometry>
        <mesh filename="package://ICRA2024_Quadruped_Competition/meshes/visual/board_50x50x300.obj"/>
      </geometry>
      <material name="">
        <color rgba="1 0 0 1"/>
      </material>
    </collision>
  </link>
  <!-- gazebo -->
  <gazebo reference="board_50x50x300_141">
    <static>true</static>
  </gazebo>
  <!-- fixed joint -->
  <joint name="board_50x50x300_142_joint" type="fixed">
    <origin rpy="0.0 -0.0 0.0" xyz="-0.42999999909057296 -3.6365000000000074 0.4500000000000001"/>
    <parent link="world"/>
    <child link="board_50x50x300_142"/>
  </joint>
  <!-- link -->
  <link name="board_50x50x300_142">
    <!-- inertial -->
    <inertial>
      <origin rpy="0 0 0" xyz="0 0 0"/>
      <mass value="1"/>
      <inertia ixx="1.0" ixy="0.0" ixz="0.0" iyy="1.0" iyz="0.0" izz="1.0"/>
    </inertial>
    <!-- visual -->
    <visual>
      <origin rpy="0 0 0" xyz="0 0 0"/>
      <geometry>
        <mesh filename="package://ICRA2024_Quadruped_Competition/meshes/visual/board_50x50x300.obj"/>
      </geometry>
      <material name="">
        <color rgba="0.92 0.93 0.90 1"/>
      </material>
    </visual>
    <!-- collision -->
    <collision>
      <origin rpy="0 0 0" xyz="0 0 0"/>
      <geometry>
        <mesh filename="package://ICRA2024_Quadruped_Competition/meshes/visual/board_50x50x300.obj"/>
      </geometry>
      <material name="">
        <color rgba="1 0 0 1"/>
      </material>
    </collision>
  </link>
  <!-- gazebo -->
  <gazebo reference="board_50x50x300_142">
    <static>true</static>
  </gazebo>
  <!-- fixed joint -->
  <joint name="board_50x50x300_143_joint" type="fixed">
    <origin rpy="0.0 -0.0 0.0" xyz="-0.42999999909057296 -4.790500000000007 0.4500000000000001"/>
    <parent link="world"/>
    <child link="board_50x50x300_143"/>
  </joint>
  <!-- link -->
  <link name="board_50x50x300_143">
    <!-- inertial -->
    <inertial>
      <origin rpy="0 0 0" xyz="0 0 0"/>
      <mass value="1"/>
      <inertia ixx="1.0" ixy="0.0" ixz="0.0" iyy="1.0" iyz="0.0" izz="1.0"/>
    </inertial>
    <!-- visual -->
    <visual>
      <origin rpy="0 0 0" xyz="0 0 0"/>
      <geometry>
        <mesh filename="package://ICRA2024_Quadruped_Competition/meshes/visual/board_50x50x300.obj"/>
      </geometry>
      <material name="">
        <color rgba="0.92 0.93 0.90 1"/>
      </material>
    </visual>
    <!-- collision -->
    <collision>
      <origin rpy="0 0 0" xyz="0 0 0"/>
      <geometry>
        <mesh filename="package://ICRA2024_Quadruped_Competition/meshes/visual/board_50x50x300.obj"/>
      </geometry>
      <material name="">
        <color rgba="1 0 0 1"/>
      </material>
    </collision>
  </link>
  <!-- gazebo -->
  <gazebo reference="board_50x50x300_143">
    <static>true</static>
  </gazebo>
  <!-- fixed joint -->
  <joint name="board_50x50x300_149_joint" type="fixed">
    <origin rpy="0.0 -1.2490009027033004e-16 0.0" xyz="1.970000000909426 -2.4365000000000028 0.45000000000000023"/>
    <parent link="world"/>
    <child link="board_50x50x300_149"/>
  </joint>
  <!-- link -->
  <link name="board_50x50x300_149">
    <!-- inertial -->
    <inertial>
      <origin rpy="0 0 0" xyz="0 0 0"/>
      <mass value="1"/>
      <inertia ixx="1.0" ixy="0.0" ixz="0.0" iyy="1.0" iyz="0.0" izz="1.0"/>
    </inertial>
    <!-- visual -->
    <visual>
      <origin rpy="0 0 0" xyz="0 0 0"/>
      <geometry>
        <mesh filename="package://ICRA2024_Quadruped_Competition/meshes/visual/board_50x50x300.obj"/>
      </geometry>
      <material name="">
        <color rgba="0.92 0.93 0.90 1"/>
      </material>
    </visual>
    <!-- collision -->
    <collision>
      <origin rpy="0 0 0" xyz="0 0 0"/>
      <geometry>
        <mesh filename="package://ICRA2024_Quadruped_Competition/meshes/visual/board_50x50x300.obj"/>
      </geometry>
      <material name="">
        <color rgba="1 0 0 1"/>
      </material>
    </collision>
  </link>
  <!-- gazebo -->
  <gazebo reference="board_50x50x300_149">
    <static>true</static>
  </gazebo>
  <!-- fixed joint -->
  <joint name="board_50x50x300_152_joint" type="fixed">
    <origin rpy="0.0 -1.2490009027033004e-16 0.0" xyz="1.970000000909426 -3.5755000000000035 0.45000000000000023"/>
    <parent link="world"/>
    <child link="board_50x50x300_152"/>
  </joint>
  <!-- link -->
  <link name="board_50x50x300_152">
    <!-- inertial -->
    <inertial>
      <origin rpy="0 0 0" xyz="0 0 0"/>
      <mass value="1"/>
      <inertia ixx="1.0" ixy="0.0" ixz="0.0" iyy="1.0" iyz="0.0" izz="1.0"/>
    </inertial>
    <!-- visual -->
    <visual>
      <origin rpy="0 0 0" xyz="0 0 0"/>
      <geometry>
        <mesh filename="package://ICRA2024_Quadruped_Competition/meshes/visual/board_50x50x300.obj"/>
      </geometry>
      <material name="">
        <color rgba="0.92 0.93 0.90 1"/>
      </material>
    </visual>
    <!-- collision -->
    <collision>
      <origin rpy="0 0 0" xyz="0 0 0"/>
      <geometry>
        <mesh filename="package://ICRA2024_Quadruped_Competition/meshes/visual/board_50x50x300.obj"/>
      </geometry>
      <material name="">
        <color rgba="1 0 0 1"/>
      </material>
    </collision>
  </link>
  <!-- gazebo -->
  <gazebo reference="board_50x50x300_152">
    <static>true</static>
  </gazebo>
  <!-- fixed joint -->
  <joint name="board_50x50x300_157_joint" type="fixed">
    <origin rpy="0.0 -0.0 2.081668171172167e-16" xyz="4.320000000909426 -4.786500000000002 0.45000000000000046"/>
    <parent link="world"/>
    <child link="board_50x50x300_157"/>
  </joint>
  <!-- link -->
  <link name="board_50x50x300_157">
    <!-- inertial -->
    <inertial>
      <origin rpy="0 0 0" xyz="0 0 0"/>
      <mass value="1"/>
      <inertia ixx="1.0" ixy="0.0" ixz="0.0" iyy="1.0" iyz="0.0" izz="1.0"/>
    </inertial>
    <!-- visual -->
    <visual>
      <origin rpy="0 0 0" xyz="0 0 0"/>
      <geometry>
        <mesh filename="package://ICRA2024_Quadruped_Competition/meshes/visual/board_50x50x300.obj"/>
      </geometry>
      <material name="">
        <color rgba="0.92 0.93 0.90 1"/>
      </material>
    </visual>
    <!-- collision -->
    <collision>
      <origin rpy="0 0 0" xyz="0 0 0"/>
      <geometry>
        <mesh filename="package://ICRA2024_Quadruped_Competition/meshes/visual/board_50x50x300.obj"/>
      </geometry>
      <material name="">
        <color rgba="1 0 0 1"/>
      </material>
    </collision>
  </link>
  <!-- gazebo -->
  <gazebo reference="board_50x50x300_157">
    <static>true</static>
  </gazebo>
  <!-- fixed joint -->
  <joint name="board_50x50x300_159_joint" type="fixed">
    <origin rpy="0.0 -0.0 2.081668171172167e-16" xyz="4.320000000909426 -3.636500000000006 0.45000000000000046"/>
    <parent link="world"/>
    <child link="board_50x50x300_159"/>
  </joint>
  <!-- link -->
  <link name="board_50x50x300_159">
    <!-- inertial -->
    <inertial>
      <origin rpy="0 0 0" xyz="0 0 0"/>
      <mass value="1"/>
      <inertia ixx="1.0" ixy="0.0" ixz="0.0" iyy="1.0" iyz="0.0" izz="1.0"/>
    </inertial>
    <!-- visual -->
    <visual>
      <origin rpy="0 0 0" xyz="0 0 0"/>
      <geometry>
        <mesh filename="package://ICRA2024_Quadruped_Competition/meshes/visual/board_50x50x300.obj"/>
      </geometry>
      <material name="">
        <color rgba="0.92 0.93 0.90 1"/>
      </material>
    </visual>
    <!-- collision -->
    <collision>
      <origin rpy="0 0 0" xyz="0 0 0"/>
      <geometry>
        <mesh filename="package://ICRA2024_Quadruped_Competition/meshes/visual/board_50x50x300.obj"/>
      </geometry>
      <material name="">
        <color rgba="1 0 0 1"/>
      </material>
    </collision>
  </link>
  <!-- gazebo -->
  <gazebo reference="board_50x50x300_159">
    <static>true</static>
  </gazebo>
  <!-- fixed joint -->
  <joint name="board_50x50x300_168_joint" type="fixed">
    <origin rpy="0.0 -0.0 0.0" xyz="0.8520000009094266 -3.5685000000000087 0.4500000000000001"/>
    <parent link="world"/>
    <child link="board_50x50x300_168"/>
  </joint>
  <!-- link -->
  <link name="board_50x50x300_168">
    <!-- inertial -->
    <inertial>
      <origin rpy="0 0 0" xyz="0 0 0"/>
      <mass value="1"/>
      <inertia ixx="1.0" ixy="0.0" ixz="0.0" iyy="1.0" iyz="0.0" izz="1.0"/>
    </inertial>
    <!-- visual -->
    <visual>
      <origin rpy="0 0 0" xyz="0 0 0"/>
      <geometry>
        <mesh filename="package://ICRA2024_Quadruped_Competition/meshes/visual/board_50x50x300.obj"/>
      </geometry>
      <material name="">
        <color rgba="0.92 0.93 0.90 1"/>
      </material>
    </visual>
    <!-- collision -->
    <collision>
      <origin rpy="0 0 0" xyz="0 0 0"/>
      <geometry>
        <mesh filename="package://ICRA2024_Quadruped_Competition/meshes/visual/board_50x50x300.obj"/>
      </geometry>
      <material name="">
        <color rgba="1 0 0 1"/>
      </material>
    </collision>
  </link>
  <!-- gazebo -->
  <gazebo reference="board_50x50x300_168">
    <static>true</static>
  </gazebo>
  <!-- fixed joint -->
  <joint name="board_50x50x300_169_joint" type="fixed">
    <origin rpy="0.0 -0.0 0.0" xyz="0.8520000009094266 -2.436500000000005 0.4500000000000001"/>
    <parent link="world"/>
    <child link="board_50x50x300_169"/>
  </joint>
  <!-- link -->
  <link name="board_50x50x300_169">
    <!-- inertial -->
    <inertial>
      <origin rpy="0 0 0" xyz="0 0 0"/>
      <mass value="1"/>
      <inertia ixx="1.0" ixy="0.0" ixz="0.0" iyy="1.0" iyz="0.0" izz="1.0"/>
    </inertial>
    <!-- visual -->
    <visual>
      <origin rpy="0 0 0" xyz="0 0 0"/>
      <geometry>
        <mesh filename="package://ICRA2024_Quadruped_Competition/meshes/visual/board_50x50x300.obj"/>
      </geometry>
      <material name="">
        <color rgba="0.92 0.93 0.90 1"/>
      </material>
    </visual>
    <!-- collision -->
    <collision>
      <origin rpy="0 0 0" xyz="0 0 0"/>
      <geometry>
        <mesh filename="package://ICRA2024_Quadruped_Competition/meshes/visual/board_50x50x300.obj"/>
      </geometry>
      <material name="">
        <color rgba="1 0 0 1"/>
      </material>
    </collision>
  </link>
  <!-- gazebo -->
  <gazebo reference="board_50x50x300_169">
    <static>true</static>
  </gazebo>
  <!-- fixed joint -->
  <joint name="board_50x50x300_170_joint" type="fixed">
    <origin rpy="0.0 -0.0 0.0" xyz="-6.297999999090573 -3.654500000000009 0.4500000000000001"/>
    <parent link="world"/>
    <child link="board_50x50x300_170"/>
  </joint>
  <!-- link -->
  <link name="board_50x50x300_170">
    <!-- inertial -->
    <inertial>
      <origin rpy="0 0 0" xyz="0 0 0"/>
      <mass value="1"/>
      <inertia ixx="1.0" ixy="0.0" ixz="0.0" iyy="1.0" iyz="0.0" izz="1.0"/>
    </inertial>
    <!-- visual -->
    <visual>
      <origin rpy="0 0 0" xyz="0 0 0"/>
      <geometry>
        <mesh filename="package://ICRA2024_Quadruped_Competition/meshes/visual/board_50x50x300.obj"/>
      </geometry>
      <material name="">
        <color rgba="0.92 0.93 0.90 1"/>
      </material>
    </visual>
    <!-- collision -->
    <collision>
      <origin rpy="0 0 0" xyz="0 0 0"/>
      <geometry>
        <mesh filename="package://ICRA2024_Quadruped_Competition/meshes/visual/board_50x50x300.obj"/>
      </geometry>
      <material name="">
        <color rgba="1 0 0 1"/>
      </material>
    </collision>
  </link>
  <!-- gazebo -->
  <gazebo reference="board_50x50x300_170">
    <static>true</static>
  </gazebo>
  <!-- fixed joint -->
  <joint name="board_50x50x300_171_joint" type="fixed">
    <origin rpy="0.0 -0.0 0.0" xyz="-6.297999999090573 -4.786500000000009 0.4500000000000001"/>
    <parent link="world"/>
    <child link="board_50x50x300_171"/>
  </joint>
  <!-- link -->
  <link name="board_50x50x300_171">
    <!-- inertial -->
    <inertial>
      <origin rpy="0 0 0" xyz="0 0 0"/>
      <mass value="1"/>
      <inertia ixx="1.0" ixy="0.0" ixz="0.0" iyy="1.0" iyz="0.0" izz="1.0"/>
    </inertial>
    <!-- visual -->
    <visual>
      <origin rpy="0 0 0" xyz="0 0 0"/>
      <geometry>
        <mesh filename="package://ICRA2024_Quadruped_Competition/meshes/visual/board_50x50x300.obj"/>
      </geometry>
      <material name="">
        <color rgba="0.92 0.93 0.90 1"/>
      </material>
    </visual>
    <!-- collision -->
    <collision>
      <origin rpy="0 0 0" xyz="0 0 0"/>
      <geometry>
        <mesh filename="package://ICRA2024_Quadruped_Competition/meshes/visual/board_50x50x300.obj"/>
      </geometry>
      <material name="">
        <color rgba="1 0 0 1"/>
      </material>
    </collision>
  </link>
  <!-- gazebo -->
  <gazebo reference="board_50x50x300_171">
    <static>true</static>
  </gazebo>
  <!-- fixed joint -->
  <joint name="board_50x50x300_173_joint" type="fixed">
    <origin rpy="0.0 -0.0 0.0" xyz="-5.115999999091914 -3.575499999999986 0.4499999999999999"/>
    <parent link="world"/>
    <child link="board_50x50x300_173"/>
  </joint>
  <!-- link -->
  <link name="board_50x50x300_173">
    <!-- inertial -->
    <inertial>
      <origin rpy="0 0 0" xyz="0 0 0"/>
      <mass value="1"/>
      <inertia ixx="1.0" ixy="0.0" ixz="0.0" iyy="1.0" iyz="0.0" izz="1.0"/>
    </inertial>
    <!-- visual -->
    <visual>
      <origin rpy="0 0 0" xyz="0 0 0"/>
      <geometry>
        <mesh filename="package://ICRA2024_Quadruped_Competition/meshes/visual/board_50x50x300.obj"/>
      </geometry>
      <material name="">
        <color rgba="0.92 0.93 0.90 1"/>
      </material>
    </visual>
    <!-- collision -->
    <collision>
      <origin rpy="0 0 0" xyz="0 0 0"/>
      <geometry>
        <mesh filename="package://ICRA2024_Quadruped_Competition/meshes/visual/board_50x50x300.obj"/>
      </geometry>
      <material name="">
        <color rgba="1 0 0 1"/>
      </material>
    </collision>
  </link>
  <!-- gazebo -->
  <gazebo reference="board_50x50x300_173">
    <static>true</static>
  </gazebo>
  <!-- fixed joint -->
  <joint name="board_50x50x300_185_joint" type="fixed">
    <origin rpy="0.0 -0.0 0.0" xyz="-1.547999999090575 -4.786500000000004 0.45"/>
    <parent link="world"/>
    <child link="board_50x50x300_185"/>
  </joint>
  <!-- link -->
  <link name="board_50x50x300_185">
    <!-- inertial -->
    <inertial>
      <origin rpy="0 0 0" xyz="0 0 0"/>
      <mass value="1"/>
      <inertia ixx="1.0" ixy="0.0" ixz="0.0" iyy="1.0" iyz="0.0" izz="1.0"/>
    </inertial>
    <!-- visual -->
    <visual>
      <origin rpy="0 0 0" xyz="0 0 0"/>
      <geometry>
        <mesh filename="package://ICRA2024_Quadruped_Competition/meshes/visual/board_50x50x300.obj"/>
      </geometry>
      <material name="">
        <color rgba="0.92 0.93 0.90 1"/>
      </material>
    </visual>
    <!-- collision -->
    <collision>
      <origin rpy="0 0 0" xyz="0 0 0"/>
      <geometry>
        <mesh filename="package://ICRA2024_Quadruped_Competition/meshes/visual/board_50x50x300.obj"/>
      </geometry>
      <material name="">
        <color rgba="1 0 0 1"/>
      </material>
    </collision>
  </link>
  <!-- gazebo -->
  <gazebo reference="board_50x50x300_185">
    <static>true</static>
  </gazebo>
  <!-- fixed joint -->
  <joint name="board_50x50x300_187_joint" type="fixed">
    <origin rpy="0.0 -0.0 0.0" xyz="-1.547999999090575 -3.6365000000000083 0.45"/>
    <parent link="world"/>
    <child link="board_50x50x300_187"/>
  </joint>
  <!-- link -->
  <link name="board_50x50x300_187">
    <!-- inertial -->
    <inertial>
      <origin rpy="0 0 0" xyz="0 0 0"/>
      <mass value="1"/>
      <inertia ixx="1.0" ixy="0.0" ixz="0.0" iyy="1.0" iyz="0.0" izz="1.0"/>
    </inertial>
    <!-- visual -->
    <visual>
      <origin rpy="0 0 0" xyz="0 0 0"/>
      <geometry>
        <mesh filename="package://ICRA2024_Quadruped_Competition/meshes/visual/board_50x50x300.obj"/>
      </geometry>
      <material name="">
        <color rgba="0.92 0.93 0.90 1"/>
      </material>
    </visual>
    <!-- collision -->
    <collision>
      <origin rpy="0 0 0" xyz="0 0 0"/>
      <geometry>
        <mesh filename="package://ICRA2024_Quadruped_Competition/meshes/visual/board_50x50x300.obj"/>
      </geometry>
      <material name="">
        <color rgba="1 0 0 1"/>
      </material>
    </collision>
  </link>
  <!-- gazebo -->
  <gazebo reference="board_50x50x300_187">
    <static>true</static>
  </gazebo>
  <!-- fixed joint -->
  <joint name="board_50x50x300_188_joint" type="fixed">
    <origin rpy="0.0 -0.0 0.0" xyz="-1.479999999090575 -3.6295000000000037 0.45"/>
    <parent link="world"/>
    <child link="board_50x50x300_188"/>
  </joint>
  <!-- link -->
  <link name="board_50x50x300_188">
    <!-- inertial -->
    <inertial>
      <origin rpy="0 0 0" xyz="0 0 0"/>
      <mass value="1"/>
      <inertia ixx="1.0" ixy="0.0" ixz="0.0" iyy="1.0" iyz="0.0" izz="1.0"/>
    </inertial>
    <!-- visual -->
    <visual>
      <origin rpy="0 0 0" xyz="0 0 0"/>
      <geometry>
        <mesh filename="package://ICRA2024_Quadruped_Competition/meshes/visual/board_50x50x300.obj"/>
      </geometry>
      <material name="">
        <color rgba="0.92 0.93 0.90 1"/>
      </material>
    </visual>
    <!-- collision -->
    <collision>
      <origin rpy="0 0 0" xyz="0 0 0"/>
      <geometry>
        <mesh filename="package://ICRA2024_Quadruped_Competition/meshes/visual/board_50x50x300.obj"/>
      </geometry>
      <material name="">
        <color rgba="1 0 0 1"/>
      </material>
    </collision>
  </link>
  <!-- gazebo -->
  <gazebo reference="board_50x50x300_188">
    <static>true</static>
  </gazebo>
  <!-- fixed joint -->
  <joint name="board_50x50x300_193_joint" type="fixed">
    <origin rpy="0.0 -0.0 0.0" xyz="-3.8979999990905743 -2.436500000000006 0.45000000000000046"/>
    <parent link="world"/>
    <child link="board_50x50x300_193"/>
  </joint>
  <!-- link -->
  <link name="board_50x50x300_193">
    <!-- inertial -->
    <inertial>
      <origin rpy="0 0 0" xyz="0 0 0"/>
      <mass value="1"/>
      <inertia ixx="1.0" ixy="0.0" ixz="0.0" iyy="1.0" iyz="0.0" izz="1.0"/>
    </inertial>
    <!-- visual -->
    <visual>
      <origin rpy="0 0 0" xyz="0 0 0"/>
      <geometry>
        <mesh filename="package://ICRA2024_Quadruped_Competition/meshes/visual/board_50x50x300.obj"/>
      </geometry>
      <material name="">
        <color rgba="0.92 0.93 0.90 1"/>
      </material>
    </visual>
    <!-- collision -->
    <collision>
      <origin rpy="0 0 0" xyz="0 0 0"/>
      <geometry>
        <mesh filename="package://ICRA2024_Quadruped_Competition/meshes/visual/board_50x50x300.obj"/>
      </geometry>
      <material name="">
        <color rgba="1 0 0 1"/>
      </material>
    </collision>
  </link>
  <!-- gazebo -->
  <gazebo reference="board_50x50x300_193">
    <static>true</static>
  </gazebo>
  <!-- fixed joint -->
  <joint name="board_50x50x300_196_joint" type="fixed">
    <origin rpy="0.0 -0.0 0.0" xyz="-3.9659999990919 -3.5754999999999866 0.45000000000000023"/>
    <parent link="world"/>
    <child link="board_50x50x300_196"/>
  </joint>
  <!-- link -->
  <link name="board_50x50x300_196">
    <!-- inertial -->
    <inertial>
      <origin rpy="0 0 0" xyz="0 0 0"/>
      <mass value="1"/>
      <inertia ixx="1.0" ixy="0.0" ixz="0.0" iyy="1.0" iyz="0.0" izz="1.0"/>
    </inertial>
    <!-- visual -->
    <visual>
      <origin rpy="0 0 0" xyz="0 0 0"/>
      <geometry>
        <mesh filename="package://ICRA2024_Quadruped_Competition/meshes/visual/board_50x50x300.obj"/>
      </geometry>
      <material name="">
        <color rgba="0.92 0.93 0.90 1"/>
      </material>
    </visual>
    <!-- collision -->
    <collision>
      <origin rpy="0 0 0" xyz="0 0 0"/>
      <geometry>
        <mesh filename="package://ICRA2024_Quadruped_Competition/meshes/visual/board_50x50x300.obj"/>
      </geometry>
      <material name="">
        <color rgba="1 0 0 1"/>
      </material>
    </collision>
  </link>
  <!-- gazebo -->
  <gazebo reference="board_50x50x300_196">
    <static>true</static>
  </gazebo>
  <!-- fixed joint -->
  <joint name="board_50x50x300_197_joint" type="fixed">
    <origin rpy="0.0 -0.0 0.0" xyz="-3.8979999990918985 -3.575500000000023 0.45000000000000023"/>
    <parent link="world"/>
    <child link="board_50x50x300_197"/>
  </joint>
  <!-- link -->
  <link name="board_50x50x300_197">
    <!-- inertial -->
    <inertial>
      <origin rpy="0 0 0" xyz="0 0 0"/>
      <mass value="1"/>
      <inertia ixx="1.0" ixy="0.0" ixz="0.0" iyy="1.0" iyz="0.0" izz="1.0"/>
    </inertial>
    <!-- visual -->
    <visual>
      <origin rpy="0 0 0" xyz="0 0 0"/>
      <geometry>
        <mesh filename="package://ICRA2024_Quadruped_Competition/meshes/visual/board_50x50x300.obj"/>
      </geometry>
      <material name="">
        <color rgba="0.92 0.93 0.90 1"/>
      </material>
    </visual>
    <!-- collision -->
    <collision>
      <origin rpy="0 0 0" xyz="0 0 0"/>
      <geometry>
        <mesh filename="package://ICRA2024_Quadruped_Competition/meshes/visual/board_50x50x300.obj"/>
      </geometry>
      <material name="">
        <color rgba="1 0 0 1"/>
      </material>
    </collision>
  </link>
  <!-- gazebo -->
  <gazebo reference="board_50x50x300_197">
    <static>true</static>
  </gazebo>
  <!-- fixed joint -->
  <joint name="crate_board_131_joint" type="fixed">
    <origin rpy="0.0 -0.0 1.570796326795" xyz="5.545000000909425 -3.011500000000003 0.11999999999999988"/>
    <parent link="world"/>
    <child link="crate_board_131"/>
  </joint>
  <!-- link -->
  <link name="crate_board_131">
    <!-- inertial -->
    <inertial>
      <origin rpy="0 0 0" xyz="0 0 0"/>
      <mass value="1"/>
      <inertia ixx="1.0" ixy="0.0" ixz="0.0" iyy="1.0" iyz="0.0" izz="1.0"/>
    </inertial>
    <!-- visual -->
    <visual>
      <origin rpy="0 0 0" xyz="0 0 0"/>
      <geometry>
        <mesh filename="package://ICRA2024_Quadruped_Competition/meshes/visual/crate_board.obj"/>
      </geometry>
      <material name="">
        <color rgba="0.92 0.93 0.90 1"/>
      </material>
    </visual>
    <!-- collision -->
    <collision>
      <origin rpy="0 0 0" xyz="0 0 0"/>
      <geometry>
        <mesh filename="package://ICRA2024_Quadruped_Competition/meshes/visual/crate_board.obj"/>
      </geometry>
      <material name="">
        <color rgba="1 0 0 1"/>
      </material>
    </collision>
  </link>
  <!-- gazebo -->
  <gazebo reference="crate_board_131">
    <static>true</static>
  </gazebo>
  <!-- fixed joint -->
  <joint name="crate_board_133_joint" type="fixed">
    <origin rpy="0.0 -0.0 1.570796326795" xyz="0.7450000009094251 -4.211500000000004 0.11999999999999988"/>
    <parent link="world"/>
    <child link="crate_board_133"/>
  </joint>
  <!-- link -->
  <link name="crate_board_133">
    <!-- inertial -->
    <inertial>
      <origin rpy="0 0 0" xyz="0 0 0"/>
      <mass value="1"/>
      <inertia ixx="1.0" ixy="0.0" ixz="0.0" iyy="1.0" iyz="0.0" izz="1.0"/>
    </inertial>
    <!-- visual -->
    <visual>
      <origin rpy="0 0 0" xyz="0 0 0"/>
      <geometry>
        <mesh filename="package://ICRA2024_Quadruped_Competition/meshes/visual/crate_board.obj"/>
      </geometry>
      <material name="">
        <color rgba="0.92 0.93 0.90 1"/>
      </material>
    </visual>
    <!-- collision -->
    <collision>
      <origin rpy="0 0 0" xyz="0 0 0"/>
      <geometry>
        <mesh filename="package://ICRA2024_Quadruped_Competition/meshes/visual/crate_board.obj"/>
      </geometry>
      <material name="">
        <color rgba="1 0 0 1"/>
      </material>
    </collision>
  </link>
  <!-- gazebo -->
  <gazebo reference="crate_board_133">
    <static>true</static>
  </gazebo>
  <!-- fixed joint -->
  <joint name="crate_board_153_joint" type="fixed">
    <origin rpy="0.0 -0.0 1.570796326795" xyz="3.1450000009094254 -3.011500000000003 0.11999999999999988"/>
    <parent link="world"/>
    <child link="crate_board_153"/>
  </joint>
  <!-- link -->
  <link name="crate_board_153">
    <!-- inertial -->
    <inertial>
      <origin rpy="0 0 0" xyz="0 0 0"/>
      <mass value="1"/>
      <inertia ixx="1.0" ixy="0.0" ixz="0.0" iyy="1.0" iyz="0.0" izz="1.0"/>
    </inertial>
    <!-- visual -->
    <visual>
      <origin rpy="0 0 0" xyz="0 0 0"/>
      <geometry>
        <mesh filename="package://ICRA2024_Quadruped_Competition/meshes/visual/crate_board.obj"/>
      </geometry>
      <material name="">
        <color rgba="0.92 0.93 0.90 1"/>
      </material>
    </visual>
    <!-- collision -->
    <collision>
      <origin rpy="0 0 0" xyz="0 0 0"/>
      <geometry>
        <mesh filename="package://ICRA2024_Quadruped_Competition/meshes/visual/crate_board.obj"/>
      </geometry>
      <material name="">
        <color rgba="1 0 0 1"/>
      </material>
    </collision>
  </link>
  <!-- gazebo -->
  <gazebo reference="crate_board_153">
    <static>true</static>
  </gazebo>
  <!-- fixed joint -->
  <joint name="crate_board_161_joint" type="fixed">
    <origin rpy="0.0 -0.0 1.570796326795" xyz="3.145000000909425 -4.211500000000004 0.11999999999999988"/>
    <parent link="world"/>
    <child link="crate_board_161"/>
  </joint>
  <!-- link -->
  <link name="crate_board_161">
    <!-- inertial -->
    <inertial>
      <origin rpy="0 0 0" xyz="0 0 0"/>
      <mass value="1"/>
      <inertia ixx="1.0" ixy="0.0" ixz="0.0" iyy="1.0" iyz="0.0" izz="1.0"/>
    </inertial>
    <!-- visual -->
    <visual>
      <origin rpy="0 0 0" xyz="0 0 0"/>
      <geometry>
        <mesh filename="package://ICRA2024_Quadruped_Competition/meshes/visual/crate_board.obj"/>
      </geometry>
      <material name="">
        <color rgba="0.92 0.93 0.90 1"/>
      </material>
    </visual>
    <!-- collision -->
    <collision>
      <origin rpy="0 0 0" xyz="0 0 0"/>
      <geometry>
        <mesh filename="package://ICRA2024_Quadruped_Competition/meshes/visual/crate_board.obj"/>
      </geometry>
      <material name="">
        <color rgba="1 0 0 1"/>
      </material>
    </collision>
  </link>
  <!-- gazebo -->
  <gazebo reference="crate_board_161">
    <static>true</static>
  </gazebo>
  <!-- fixed joint -->
  <joint name="k_rail_diagonal_178_joint" type="fixed">
    <origin rpy="3.141592653589793 -2.0682310711021447e-13 -1.5707963267947933" xyz="-0.3230000000000066 -3.011500000000008 0.061"/>
    <parent link="world"/>
    <child link="k_rail_diagonal_178"/>
  </joint>
  <!-- link -->
  <link name="k_rail_diagonal_178">
    <!-- inertial -->
    <inertial>
      <origin rpy="0 0 0" xyz="0 0 0"/>
      <mass value="1"/>
      <inertia ixx="1.0" ixy="0.0" ixz="0.0" iyy="1.0" iyz="0.0" izz="1.0"/>
    </inertial>
    <!-- visual -->
    <visual>
      <origin rpy="0 0 0" xyz="0 0 0"/>
      <geometry>
        <mesh filename="package://ICRA2024_Quadruped_Competition/meshes/visual/k_rail_diagonal.obj"/>
      </geometry>
      <material name="">
        <color rgba="0.92 0.93 0.90 1"/>
      </material>
    </visual>
    <!-- collision -->
    <collision>
      <origin rpy="0 0 0" xyz="0 0 0"/>
      <geometry>
        <mesh filename="package://ICRA2024_Quadruped_Competition/meshes/visual/k_rail_diagonal.obj"/>
      </geometry>
      <material name="">
        <color rgba="1 0 0 1"/>
      </material>
    </collision>
  </link>
  <!-- gazebo -->
  <gazebo reference="k_rail_diagonal_178">
    <static>true</static>
  </gazebo>
  <!-- fixed joint -->
  <joint name="k_rail_diagonal_179_joint" type="fixed">
    <origin rpy="0.0 -0.0 1.570796326795" xyz="-5.123000000000006 -4.211500000000008 0.061"/>
    <parent link="world"/>
    <child link="k_rail_diagonal_179"/>
  </joint>
  <!-- link -->
  <link name="k_rail_diagonal_179">
    <!-- inertial -->
    <inertial>
      <origin rpy="0 0 0" xyz="0 0 0"/>
      <mass value="1"/>
      <inertia ixx="1.0" ixy="0.0" ixz="0.0" iyy="1.0" iyz="0.0" izz="1.0"/>
    </inertial>
    <!-- visual -->
    <visual>
      <origin rpy="0 0 0" xyz="0 0 0"/>
      <geometry>
        <mesh filename="package://ICRA2024_Quadruped_Competition/meshes/visual/k_rail_diagonal.obj"/>
      </geometry>
      <material name="">
        <color rgba="0.92 0.93 0.90 1"/>
      </material>
    </visual>
    <!-- collision -->
    <collision>
      <origin rpy="0 0 0" xyz="0 0 0"/>
      <geometry>
        <mesh filename="package://ICRA2024_Quadruped_Competition/meshes/visual/k_rail_diagonal.obj"/>
      </geometry>
      <material name="">
        <color rgba="1 0 0 1"/>
      </material>
    </collision>
  </link>
  <!-- gazebo -->
  <gazebo reference="k_rail_diagonal_179">
    <static>true</static>
  </gazebo>
  <!-- fixed joint -->
  <joint name="k_rail_diagonal_182_joint" type="fixed">
    <origin rpy="0.0 -0.0 1.570796326795" xyz="-2.7230000000000065 -4.211500000000007 0.06099999999999988"/>
    <parent link="world"/>
    <child link="k_rail_diagonal_182"/>
  </joint>
  <!-- link -->
  <link name="k_rail_diagonal_182">
    <!-- inertial -->
    <inertial>
      <origin rpy="0 0 0" xyz="0 0 0"/>
      <mass value="1"/>
      <inertia ixx="1.0" ixy="0.0" ixz="0.0" iyy="1.0" iyz="0.0" izz="1.0"/>
    </inertial>
    <!-- visual -->
    <visual>
      <origin rpy="0 0 0" xyz="0 0 0"/>
      <geometry>
        <mesh filename="package://ICRA2024_Quadruped_Competition/meshes/visual/k_rail_diagonal.obj"/>
      </geometry>
      <material name="">
        <color rgba="0.92 0.93 0.90 1"/>
      </material>
    </visual>
    <!-- collision -->
    <collision>
      <origin rpy="0 0 0" xyz="0 0 0"/>
      <geometry>
        <mesh filename="package://ICRA2024_Quadruped_Competition/meshes/visual/k_rail_diagonal.obj"/>
      </geometry>
      <material name="">
        <color rgba="1 0 0 1"/>
      </material>
    </collision>
  </link>
  <!-- gazebo -->
  <gazebo reference="k_rail_diagonal_182">
    <static>true</static>
  </gazebo>
  <!-- fixed joint -->
  <joint name="k_rail_diagonal_191_joint" type="fixed">
    <origin rpy="3.141592653589793 -2.0682310711021447e-13 -1.5707963267947933" xyz="-2.7230000000000065 -3.0115000000000083 0.061000000000000325"/>
    <parent link="world"/>
    <child link="k_rail_diagonal_191"/>
  </joint>
  <!-- link -->
  <link name="k_rail_diagonal_191">
    <!-- inertial -->
    <inertial>
      <origin rpy="0 0 0" xyz="0 0 0"/>
      <mass value="1"/>
      <inertia ixx="1.0" ixy="0.0" ixz="0.0" iyy="1.0" iyz="0.0" izz="1.0"/>
    </inertial>
    <!-- visual -->
    <visual>
      <origin rpy="0 0 0" xyz="0 0 0"/>
      <geometry>
        <mesh filename="package://ICRA2024_Quadruped_Competition/meshes/visual/k_rail_diagonal.obj"/>
      </geometry>
      <material name="">
        <color rgba="0.92 0.93 0.90 1"/>
      </material>
    </visual>
    <!-- collision -->
    <collision>
      <origin rpy="0 0 0" xyz="0 0 0"/>
      <geometry>
        <mesh filename="package://ICRA2024_Quadruped_Competition/meshes/visual/k_rail_diagonal.obj"/>
      </geometry>
      <material name="">
        <color rgba="1 0 0 1"/>
      </material>
    </collision>
  </link>
  <!-- gazebo -->
  <gazebo reference="k_rail_diagonal_191">
    <static>true</static>
  </gazebo>
  <!-- fixed joint -->
  <joint name="lane_floor_15_joint" type="fixed">
    <origin rpy="0.0 -0.0 0.0" xyz="5.545000000909425 3.0115000000000056 0.0555"/>
    <parent link="world"/>
    <child link="lane_floor_15"/>
  </joint>
  <!-- link -->
  <link name="lane_floor_15">
    <!-- inertial -->
    <inertial>
      <origin rpy="0 0 0" xyz="0 0 0"/>
      <mass value="1"/>
      <inertia ixx="1.0" ixy="0.0" ixz="0.0" iyy="1.0" iyz="0.0" izz="1.0"/>
    </inertial>
    <!-- visual -->
    <visual>
      <origin rpy="0 0 0" xyz="0 0 0"/>
      <geometry>
        <mesh filename="package://ICRA2024_Quadruped_Competition/meshes/visual/lane_floor.obj"/>
      </geometry>
      <material name="">
        <color rgba="0.92 0.93 0.90 1"/>
      </material>
    </visual>
    <!-- collision -->
    <collision>
      <origin rpy="0 0 0" xyz="0 0 0"/>
      <geometry>
        <mesh filename="package://ICRA2024_Quadruped_Competition/meshes/visual/lane_floor.obj"/>
      </geometry>
      <material name="">
        <color rgba="1 0 0 1"/>
      </material>
    </collision>
  </link>
  <!-- gazebo -->
  <gazebo reference="lane_floor_15">
    <static>true</static>
  </gazebo>
  <!-- fixed joint -->
  <joint name="lane_floor_24_joint" type="fixed">
    <origin rpy="0.0 -0.0 0.0" xyz="0.7450000009094255 4.211500000000005 0.0555"/>
    <parent link="world"/>
    <child link="lane_floor_24"/>
  </joint>
  <!-- link -->
  <link name="lane_floor_24">
    <!-- inertial -->
    <inertial>
      <origin rpy="0 0 0" xyz="0 0 0"/>
      <mass value="1"/>
      <inertia ixx="1.0" ixy="0.0" ixz="0.0" iyy="1.0" iyz="0.0" izz="1.0"/>
    </inertial>
    <!-- visual -->
    <visual>
      <origin rpy="0 0 0" xyz="0 0 0"/>
      <geometry>
        <mesh filename="package://ICRA2024_Quadruped_Competition/meshes/visual/lane_floor.obj"/>
      </geometry>
      <material name="">
        <color rgba="0.92 0.93 0.90 1"/>
      </material>
    </visual>
    <!-- collision -->
    <collision>
      <origin rpy="0 0 0" xyz="0 0 0"/>
      <geometry>
        <mesh filename="package://ICRA2024_Quadruped_Competition/meshes/visual/lane_floor.obj"/>
      </geometry>
      <material name="">
        <color rgba="1 0 0 1"/>
      </material>
    </collision>
  </link>
  <!-- gazebo -->
  <gazebo reference="lane_floor_24">
    <static>true</static>
  </gazebo>
  <!-- fixed joint -->
  <joint name="lane_floor_46_joint" type="fixed">
    <origin rpy="0.0 -0.0 0.0" xyz="3.145000000909425 4.211500000000005 0.05550000000000033"/>
    <parent link="world"/>
    <child link="lane_floor_46"/>
  </joint>
  <!-- link -->
  <link name="lane_floor_46">
    <!-- inertial -->
    <inertial>
      <origin rpy="0 0 0" xyz="0 0 0"/>
      <mass value="1"/>
      <inertia ixx="1.0" ixy="0.0" ixz="0.0" iyy="1.0" iyz="0.0" izz="1.0"/>
    </inertial>
    <!-- visual -->
    <visual>
      <origin rpy="0 0 0" xyz="0 0 0"/>
      <geometry>
        <mesh filename="package://ICRA2024_Quadruped_Competition/meshes/visual/lane_floor.obj"/>
      </geometry>
      <material name="">
        <color rgba="0.92 0.93 0.90 1"/>
      </material>
    </visual>
    <!-- collision -->
    <collision>
      <origin rpy="0 0 0" xyz="0 0 0"/>
      <geometry>
        <mesh filename="package://ICRA2024_Quadruped_Competition/meshes/visual/lane_floor.obj"/>
      </geometry>
      <material name="">
        <color rgba="1 0 0 1"/>
      </material>
    </collision>
  </link>
  <!-- gazebo -->
  <gazebo reference="lane_floor_46">
    <static>true</static>
  </gazebo>
  <!-- fixed joint -->
  <joint name="lane_floor_62_joint" type="fixed">
    <origin rpy="0.0 -0.0 0.0" xyz="3.145000000909425 3.0115000000000047 0.05550000000000033"/>
    <parent link="world"/>
    <child link="lane_floor_62"/>
  </joint>
  <!-- link -->
  <link name="lane_floor_62">
    <!-- inertial -->
    <inertial>
      <origin rpy="0 0 0" xyz="0 0 0"/>
      <mass value="1"/>
      <inertia ixx="1.0" ixy="0.0" ixz="0.0" iyy="1.0" iyz="0.0" izz="1.0"/>
    </inertial>
    <!-- visual -->
    <visual>
      <origin rpy="0 0 0" xyz="0 0 0"/>
      <geometry>
        <mesh filename="package://ICRA2024_Quadruped_Competition/meshes/visual/lane_floor.obj"/>
      </geometry>
      <material name="">
        <color rgba="0.92 0.93 0.90 1"/>
      </material>
    </visual>
    <!-- collision -->
    <collision>
      <origin rpy="0 0 0" xyz="0 0 0"/>
      <geometry>
        <mesh filename="package://ICRA2024_Quadruped_Competition/meshes/visual/lane_floor.obj"/>
      </geometry>
      <material name="">
        <color rgba="1 0 0 1"/>
      </material>
    </collision>
  </link>
  <!-- gazebo -->
  <gazebo reference="lane_floor_62">
    <static>true</static>
  </gazebo>
  <!-- fixed joint -->
  <joint name="lane_floor_95_joint" type="fixed">
    <origin rpy="0.0 -0.0 0.0" xyz="-0.322999999090575 3.011500000000003 0.0555"/>
    <parent link="world"/>
    <child link="lane_floor_95"/>
  </joint>
  <!-- link -->
  <link name="lane_floor_95">
    <!-- inertial -->
    <inertial>
      <origin rpy="0 0 0" xyz="0 0 0"/>
      <mass value="1"/>
      <inertia ixx="1.0" ixy="0.0" ixz="0.0" iyy="1.0" iyz="0.0" izz="1.0"/>
    </inertial>
    <!-- visual -->
    <visual>
      <origin rpy="0 0 0" xyz="0 0 0"/>
      <geometry>
        <mesh filename="package://ICRA2024_Quadruped_Competition/meshes/visual/lane_floor.obj"/>
      </geometry>
      <material name="">
        <color rgba="0.92 0.93 0.90 1"/>
      </material>
    </visual>
    <!-- collision -->
    <collision>
      <origin rpy="0 0 0" xyz="0 0 0"/>
      <geometry>
        <mesh filename="package://ICRA2024_Quadruped_Competition/meshes/visual/lane_floor.obj"/>
      </geometry>
      <material name="">
        <color rgba="1 0 0 1"/>
      </material>
    </collision>
  </link>
  <!-- gazebo -->
  <gazebo reference="lane_floor_95">
    <static>true</static>
  </gazebo>
  <!-- fixed joint -->
  <joint name="lane_floor_96_joint" type="fixed">
    <origin rpy="0.0 -0.0 0.0" xyz="-5.122999999090575 4.211500000000003 0.0555"/>
    <parent link="world"/>
    <child link="lane_floor_96"/>
  </joint>
  <!-- link -->
  <link name="lane_floor_96">
    <!-- inertial -->
    <inertial>
      <origin rpy="0 0 0" xyz="0 0 0"/>
      <mass value="1"/>
      <inertia ixx="1.0" ixy="0.0" ixz="0.0" iyy="1.0" iyz="0.0" izz="1.0"/>
    </inertial>
    <!-- visual -->
    <visual>
      <origin rpy="0 0 0" xyz="0 0 0"/>
      <geometry>
        <mesh filename="package://ICRA2024_Quadruped_Competition/meshes/visual/lane_floor.obj"/>
      </geometry>
      <material name="">
        <color rgba="0.92 0.93 0.90 1"/>
      </material>
    </visual>
    <!-- collision -->
    <collision>
      <origin rpy="0 0 0" xyz="0 0 0"/>
      <geometry>
        <mesh filename="package://ICRA2024_Quadruped_Competition/meshes/visual/lane_floor.obj"/>
      </geometry>
      <material name="">
        <color rgba="1 0 0 1"/>
      </material>
    </collision>
  </link>
  <!-- gazebo -->
  <gazebo reference="lane_floor_96">
    <static>true</static>
  </gazebo>
  <!-- fixed joint -->
  <joint name="lane_floor_113_joint" type="fixed">
    <origin rpy="0.0 -0.0 0.0" xyz="-2.722999999090575 4.211500000000003 0.05550000000000033"/>
    <parent link="world"/>
    <child link="lane_floor_113"/>
  </joint>
  <!-- link -->
  <link name="lane_floor_113">
    <!-- inertial -->
    <inertial>
      <origin rpy="0 0 0" xyz="0 0 0"/>
      <mass value="1"/>
      <inertia ixx="1.0" ixy="0.0" ixz="0.0" iyy="1.0" iyz="0.0" izz="1.0"/>
    </inertial>
    <!-- visual -->
    <visual>
      <origin rpy="0 0 0" xyz="0 0 0"/>
      <geometry>
        <mesh filename="package://ICRA2024_Quadruped_Competition/meshes/visual/lane_floor.obj"/>
      </geometry>
      <material name="">
        <color rgba="0.92 0.93 0.90 1"/>
      </material>
    </visual>
    <!-- collision -->
    <collision>
      <origin rpy="0 0 0" xyz="0 0 0"/>
      <geometry>
        <mesh filename="package://ICRA2024_Quadruped_Competition/meshes/visual/lane_floor.obj"/>
      </geometry>
      <material name="">
        <color rgba="1 0 0 1"/>
      </material>
    </collision>
  </link>
  <!-- gazebo -->
  <gazebo reference="lane_floor_113">
    <static>true</static>
  </gazebo>
  <!-- fixed joint -->
  <joint name="lane_floor_122_joint" type="fixed">
    <origin rpy="0.0 -0.0 0.0" xyz="-2.7229999990905753 3.0115000000000025 0.055500000000000105"/>
    <parent link="world"/>
    <child link="lane_floor_122"/>
  </joint>
  <!-- link -->
  <link name="lane_floor_122">
    <!-- inertial -->
    <inertial>
      <origin rpy="0 0 0" xyz="0 0 0"/>
      <mass value="1"/>
      <inertia ixx="1.0" ixy="0.0" ixz="0.0" iyy="1.0" iyz="0.0" izz="1.0"/>
    </inertial>
    <!-- visual -->
    <visual>
      <origin rpy="0 0 0" xyz="0 0 0"/>
      <geometry>
        <mesh filename="package://ICRA2024_Quadruped_Competition/meshes/visual/lane_floor.obj"/>
      </geometry>
      <material name="">
        <color rgba="0.92 0.93 0.90 1"/>
      </material>
    </visual>
    <!-- collision -->
    <collision>
      <origin rpy="0 0 0" xyz="0 0 0"/>
      <geometry>
        <mesh filename="package://ICRA2024_Quadruped_Competition/meshes/visual/lane_floor.obj"/>
      </geometry>
      <material name="">
        <color rgba="1 0 0 1"/>
      </material>
    </collision>
  </link>
  <!-- gazebo -->
  <gazebo reference="lane_floor_122">
    <static>true</static>
  </gazebo>
  <!-- fixed joint -->
  <joint name="lane_floor_130_joint" type="fixed">
    <origin rpy="0.0 -0.0 0.0" xyz="5.545000000909425 -3.011500000000003 0.0555"/>
    <parent link="world"/>
    <child link="lane_floor_130"/>
  </joint>
  <!-- link -->
  <link name="lane_floor_130">
    <!-- inertial -->
    <inertial>
      <origin rpy="0 0 0" xyz="0 0 0"/>
      <mass value="1"/>
      <inertia ixx="1.0" ixy="0.0" ixz="0.0" iyy="1.0" iyz="0.0" izz="1.0"/>
    </inertial>
    <!-- visual -->
    <visual>
      <origin rpy="0 0 0" xyz="0 0 0"/>
      <geometry>
        <mesh filename="package://ICRA2024_Quadruped_Competition/meshes/visual/lane_floor.obj"/>
      </geometry>
      <material name="">
        <color rgba="0.92 0.93 0.90 1"/>
      </material>
    </visual>
    <!-- collision -->
    <collision>
      <origin rpy="0 0 0" xyz="0 0 0"/>
      <geometry>
        <mesh filename="package://ICRA2024_Quadruped_Competition/meshes/visual/lane_floor.obj"/>
      </geometry>
      <material name="">
        <color rgba="1 0 0 1"/>
      </material>
    </collision>
  </link>
  <!-- gazebo -->
  <gazebo reference="lane_floor_130">
    <static>true</static>
  </gazebo>
  <!-- fixed joint -->
  <joint name="lane_floor_132_joint" type="fixed">
    <origin rpy="0.0 -0.0 0.0" xyz="0.7450000009094255 -4.211500000000004 0.0555"/>
    <parent link="world"/>
    <child link="lane_floor_132"/>
  </joint>
  <!-- link -->
  <link name="lane_floor_132">
    <!-- inertial -->
    <inertial>
      <origin rpy="0 0 0" xyz="0 0 0"/>
      <mass value="1"/>
      <inertia ixx="1.0" ixy="0.0" ixz="0.0" iyy="1.0" iyz="0.0" izz="1.0"/>
    </inertial>
    <!-- visual -->
    <visual>
      <origin rpy="0 0 0" xyz="0 0 0"/>
      <geometry>
        <mesh filename="package://ICRA2024_Quadruped_Competition/meshes/visual/lane_floor.obj"/>
      </geometry>
      <material name="">
        <color rgba="0.92 0.93 0.90 1"/>
      </material>
    </visual>
    <!-- collision -->
    <collision>
      <origin rpy="0 0 0" xyz="0 0 0"/>
      <geometry>
        <mesh filename="package://ICRA2024_Quadruped_Competition/meshes/visual/lane_floor.obj"/>
      </geometry>
      <material name="">
        <color rgba="1 0 0 1"/>
      </material>
    </collision>
  </link>
  <!-- gazebo -->
  <gazebo reference="lane_floor_132">
    <static>true</static>
  </gazebo>
  <!-- fixed joint -->
  <joint name="lane_floor_147_joint" type="fixed">
    <origin rpy="0.0 -1.2490009027033004e-16 0.0" xyz="3.145000000909425 -3.011500000000003 0.055500000000000216"/>
    <parent link="world"/>
    <child link="lane_floor_147"/>
  </joint>
  <!-- link -->
  <link name="lane_floor_147">
    <!-- inertial -->
    <inertial>
      <origin rpy="0 0 0" xyz="0 0 0"/>
      <mass value="1"/>
      <inertia ixx="1.0" ixy="0.0" ixz="0.0" iyy="1.0" iyz="0.0" izz="1.0"/>
    </inertial>
    <!-- visual -->
    <visual>
      <origin rpy="0 0 0" xyz="0 0 0"/>
      <geometry>
        <mesh filename="package://ICRA2024_Quadruped_Competition/meshes/visual/lane_floor.obj"/>
      </geometry>
      <material name="">
        <color rgba="0.92 0.93 0.90 1"/>
      </material>
    </visual>
    <!-- collision -->
    <collision>
      <origin rpy="0 0 0" xyz="0 0 0"/>
      <geometry>
        <mesh filename="package://ICRA2024_Quadruped_Competition/meshes/visual/lane_floor.obj"/>
      </geometry>
      <material name="">
        <color rgba="1 0 0 1"/>
      </material>
    </collision>
  </link>
  <!-- gazebo -->
  <gazebo reference="lane_floor_147">
    <static>true</static>
  </gazebo>
  <!-- fixed joint -->
  <joint name="lane_floor_155_joint" type="fixed">
    <origin rpy="0.0 -0.0 2.081668171172167e-16" xyz="3.145000000909425 -4.211500000000003 0.05550000000000033"/>
    <parent link="world"/>
    <child link="lane_floor_155"/>
  </joint>
  <!-- link -->
  <link name="lane_floor_155">
    <!-- inertial -->
    <inertial>
      <origin rpy="0 0 0" xyz="0 0 0"/>
      <mass value="1"/>
      <inertia ixx="1.0" ixy="0.0" ixz="0.0" iyy="1.0" iyz="0.0" izz="1.0"/>
    </inertial>
    <!-- visual -->
    <visual>
      <origin rpy="0 0 0" xyz="0 0 0"/>
      <geometry>
        <mesh filename="package://ICRA2024_Quadruped_Competition/meshes/visual/lane_floor.obj"/>
      </geometry>
      <material name="">
        <color rgba="0.92 0.93 0.90 1"/>
      </material>
    </visual>
    <!-- collision -->
    <collision>
      <origin rpy="0 0 0" xyz="0 0 0"/>
      <geometry>
        <mesh filename="package://ICRA2024_Quadruped_Competition/meshes/visual/lane_floor.obj"/>
      </geometry>
      <material name="">
        <color rgba="1 0 0 1"/>
      </material>
    </collision>
  </link>
  <!-- gazebo -->
  <gazebo reference="lane_floor_155">
    <static>true</static>
  </gazebo>
  <!-- fixed joint -->
  <joint name="lane_floor_163_joint" type="fixed">
    <origin rpy="0.0 -0.0 0.0" xyz="-0.322999999090575 -3.0115000000000047 0.0555"/>
    <parent link="world"/>
    <child link="lane_floor_163"/>
  </joint>
  <!-- link -->
  <link name="lane_floor_163">
    <!-- inertial -->
    <inertial>
      <origin rpy="0 0 0" xyz="0 0 0"/>
      <mass value="1"/>
      <inertia ixx="1.0" ixy="0.0" ixz="0.0" iyy="1.0" iyz="0.0" izz="1.0"/>
    </inertial>
    <!-- visual -->
    <visual>
      <origin rpy="0 0 0" xyz="0 0 0"/>
      <geometry>
        <mesh filename="package://ICRA2024_Quadruped_Competition/meshes/visual/lane_floor.obj"/>
      </geometry>
      <material name="">
        <color rgba="0.92 0.93 0.90 1"/>
      </material>
    </visual>
    <!-- collision -->
    <collision>
      <origin rpy="0 0 0" xyz="0 0 0"/>
      <geometry>
        <mesh filename="package://ICRA2024_Quadruped_Competition/meshes/visual/lane_floor.obj"/>
      </geometry>
      <material name="">
        <color rgba="1 0 0 1"/>
      </material>
    </collision>
  </link>
  <!-- gazebo -->
  <gazebo reference="lane_floor_163">
    <static>true</static>
  </gazebo>
  <!-- fixed joint -->
  <joint name="lane_floor_164_joint" type="fixed">
    <origin rpy="0.0 -0.0 0.0" xyz="-5.122999999090575 -4.211500000000005 0.0555"/>
    <parent link="world"/>
    <child link="lane_floor_164"/>
  </joint>
  <!-- link -->
  <link name="lane_floor_164">
    <!-- inertial -->
    <inertial>
      <origin rpy="0 0 0" xyz="0 0 0"/>
      <mass value="1"/>
      <inertia ixx="1.0" ixy="0.0" ixz="0.0" iyy="1.0" iyz="0.0" izz="1.0"/>
    </inertial>
    <!-- visual -->
    <visual>
      <origin rpy="0 0 0" xyz="0 0 0"/>
      <geometry>
        <mesh filename="package://ICRA2024_Quadruped_Competition/meshes/visual/lane_floor.obj"/>
      </geometry>
      <material name="">
        <color rgba="0.92 0.93 0.90 1"/>
      </material>
    </visual>
    <!-- collision -->
    <collision>
      <origin rpy="0 0 0" xyz="0 0 0"/>
      <geometry>
        <mesh filename="package://ICRA2024_Quadruped_Competition/meshes/visual/lane_floor.obj"/>
      </geometry>
      <material name="">
        <color rgba="1 0 0 1"/>
      </material>
    </collision>
  </link>
  <!-- gazebo -->
  <gazebo reference="lane_floor_164">
    <static>true</static>
  </gazebo>
  <!-- fixed joint -->
  <joint name="lane_floor_181_joint" type="fixed">
    <origin rpy="0.0 -0.0 0.0" xyz="-2.722999999090575 -4.2115000000000045 0.05549999999999988"/>
    <parent link="world"/>
    <child link="lane_floor_181"/>
  </joint>
  <!-- link -->
  <link name="lane_floor_181">
    <!-- inertial -->
    <inertial>
      <origin rpy="0 0 0" xyz="0 0 0"/>
      <mass value="1"/>
      <inertia ixx="1.0" ixy="0.0" ixz="0.0" iyy="1.0" iyz="0.0" izz="1.0"/>
    </inertial>
    <!-- visual -->
    <visual>
      <origin rpy="0 0 0" xyz="0 0 0"/>
      <geometry>
        <mesh filename="package://ICRA2024_Quadruped_Competition/meshes/visual/lane_floor.obj"/>
      </geometry>
      <material name="">
        <color rgba="0.92 0.93 0.90 1"/>
      </material>
    </visual>
    <!-- collision -->
    <collision>
      <origin rpy="0 0 0" xyz="0 0 0"/>
      <geometry>
        <mesh filename="package://ICRA2024_Quadruped_Competition/meshes/visual/lane_floor.obj"/>
      </geometry>
      <material name="">
        <color rgba="1 0 0 1"/>
      </material>
    </collision>
  </link>
  <!-- gazebo -->
  <gazebo reference="lane_floor_181">
    <static>true</static>
  </gazebo>
  <!-- fixed joint -->
  <joint name="lane_floor_190_joint" type="fixed">
    <origin rpy="0.0 -0.0 0.0" xyz="-2.7229999990905753 -3.011500000000005 0.05550000000000033"/>
    <parent link="world"/>
    <child link="lane_floor_190"/>
  </joint>
  <!-- link -->
  <link name="lane_floor_190">
    <!-- inertial -->
    <inertial>
      <origin rpy="0 0 0" xyz="0 0 0"/>
      <mass value="1"/>
      <inertia ixx="1.0" ixy="0.0" ixz="0.0" iyy="1.0" iyz="0.0" izz="1.0"/>
    </inertial>
    <!-- visual -->
    <visual>
      <origin rpy="0 0 0" xyz="0 0 0"/>
      <geometry>
        <mesh filename="package://ICRA2024_Quadruped_Competition/meshes/visual/lane_floor.obj"/>
      </geometry>
      <material name="">
        <color rgba="0.92 0.93 0.90 1"/>
      </material>
    </visual>
    <!-- collision -->
    <collision>
      <origin rpy="0 0 0" xyz="0 0 0"/>
      <geometry>
        <mesh filename="package://ICRA2024_Quadruped_Competition/meshes/visual/lane_floor.obj"/>
      </geometry>
      <material name="">
        <color rgba="1 0 0 1"/>
      </material>
    </collision>
  </link>
  <!-- gazebo -->
  <gazebo reference="lane_floor_190">
    <static>true</static>
  </gazebo>
  <!-- fixed joint -->
  <joint name="pallet_step_84_joint" type="fixed">
    <origin rpy="0.0 -0.0 0.0" xyz="-6.1519999990905685 -0.6115000000000318 0.10899999999999999"/>
    <parent link="world"/>
    <child link="pallet_step_84"/>
  </joint>
  <!-- link -->
  <link name="pallet_step_84">
    <!-- inertial -->
    <inertial>
      <origin rpy="0 0 0" xyz="0 0 0"/>
      <mass value="1"/>
      <inertia ixx="1.0" ixy="0.0" ixz="0.0" iyy="1.0" iyz="0.0" izz="1.0"/>
    </inertial>
    <!-- visual -->
    <visual>
      <origin rpy="0 0 0" xyz="0 0 0"/>
      <geometry>
        <mesh filename="package://ICRA2024_Quadruped_Competition/meshes/visual/pallet_step.obj"/>
      </geometry>
      <material name="">
        <color rgba="0.92 0.93 0.90 1"/>
      </material>
    </visual>
    <!-- collision -->
    <collision>
      <origin rpy="0 0 0" xyz="0 0 0"/>
      <geometry>
        <mesh filename="package://ICRA2024_Quadruped_Competition/meshes/visual/pallet_step.obj"/>
      </geometry>
      <material name="">
        <color rgba="1 0 0 1"/>
      </material>
    </collision>
  </link>
  <!-- gazebo -->
  <gazebo reference="pallet_step_84">
    <static>true</static>
  </gazebo>
  <!-- fixed joint -->
  <joint name="pallet_step_85_joint" type="fixed">
    <origin rpy="0.0 -0.0 0.0" xyz="-6.1519999990905685 0.6104999999999681 0.10899999999999999"/>
    <parent link="world"/>
    <child link="pallet_step_85"/>
  </joint>
  <!-- link -->
  <link name="pallet_step_85">
    <!-- inertial -->
    <inertial>
      <origin rpy="0 0 0" xyz="0 0 0"/>
      <mass value="1"/>
      <inertia ixx="1.0" ixy="0.0" ixz="0.0" iyy="1.0" iyz="0.0" izz="1.0"/>
    </inertial>
    <!-- visual -->
    <visual>
      <origin rpy="0 0 0" xyz="0 0 0"/>
      <geometry>
        <mesh filename="package://ICRA2024_Quadruped_Competition/meshes/visual/pallet_step.obj"/>
      </geometry>
      <material name="">
        <color rgba="0.92 0.93 0.90 1"/>
      </material>
    </visual>
    <!-- collision -->
    <collision>
      <origin rpy="0 0 0" xyz="0 0 0"/>
      <geometry>
        <mesh filename="package://ICRA2024_Quadruped_Competition/meshes/visual/pallet_step.obj"/>
      </geometry>
      <material name="">
        <color rgba="1 0 0 1"/>
      </material>
    </collision>
  </link>
  <!-- gazebo -->
  <gazebo reference="pallet_step_85">
    <static>true</static>
  </gazebo>
  <!-- fixed joint -->
  <joint name="pallet_step_with_pipe_76_joint" type="fixed">
    <origin rpy="0.0 -0.0 0.0" xyz="-4.951999999090568 -0.6115000000000318 0.3"/>
    <parent link="world"/>
    <child link="pallet_step_with_pipe_76"/>
  </joint>
  <!-- link -->
  <link name="pallet_step_with_pipe_76">
    <!-- inertial -->
    <inertial>
      <origin rpy="0 0 0" xyz="0 0 0"/>
      <mass value="1"/>
      <inertia ixx="1.0" ixy="0.0" ixz="0.0" iyy="1.0" iyz="0.0" izz="1.0"/>
    </inertial>
    <!-- visual -->
    <visual>
      <origin rpy="0 0 0" xyz="0 0 0"/>
      <geometry>
        <mesh filename="package://ICRA2024_Quadruped_Competition/meshes/visual/pallet_step_with_pipe.obj"/>
      </geometry>
      <material name="">
        <color rgba="0.92 0.93 0.90 1"/>
      </material>
    </visual>
    <!-- collision -->
    <collision>
      <origin rpy="0 0 0" xyz="0 0 0"/>
      <geometry>
        <mesh filename="package://ICRA2024_Quadruped_Competition/meshes/visual/pallet_step_with_pipe.obj"/>
      </geometry>
      <material name="">
        <color rgba="1 0 0 1"/>
      </material>
    </collision>
  </link>
  <!-- gazebo -->
  <gazebo reference="pallet_step_with_pipe_76">
    <static>true</static>
  </gazebo>
  <!-- fixed joint -->
  <joint name="pallet_step_with_pipe_78_joint" type="fixed">
    <origin rpy="0.0 -0.0 0.0" xyz="-3.751999999090568 -0.6115000000000318 0.3"/>
    <parent link="world"/>
    <child link="pallet_step_with_pipe_78"/>
  </joint>
  <!-- link -->
  <link name="pallet_step_with_pipe_78">
    <!-- inertial -->
    <inertial>
      <origin rpy="0 0 0" xyz="0 0 0"/>
      <mass value="1"/>
      <inertia ixx="1.0" ixy="0.0" ixz="0.0" iyy="1.0" iyz="0.0" izz="1.0"/>
    </inertial>
    <!-- visual -->
    <visual>
      <origin rpy="0 0 0" xyz="0 0 0"/>
      <geometry>
        <mesh filename="package://ICRA2024_Quadruped_Competition/meshes/visual/pallet_step_with_pipe.obj"/>
      </geometry>
      <material name="">
        <color rgba="0.92 0.93 0.90 1"/>
      </material>
    </visual>
    <!-- collision -->
    <collision>
      <origin rpy="0 0 0" xyz="0 0 0"/>
      <geometry>
        <mesh filename="package://ICRA2024_Quadruped_Competition/meshes/visual/pallet_step_with_pipe.obj"/>
      </geometry>
      <material name="">
        <color rgba="1 0 0 1"/>
      </material>
    </collision>
  </link>
  <!-- gazebo -->
  <gazebo reference="pallet_step_with_pipe_78">
    <static>true</static>
  </gazebo>
  <!-- fixed joint -->
  <joint name="pallet_step_with_pipe_80_joint" type="fixed">
    <origin rpy="0.0 -0.0 0.0" xyz="-3.751999999090568 0.6104999999999681 0.3"/>
    <parent link="world"/>
    <child link="pallet_step_with_pipe_80"/>
  </joint>
  <!-- link -->
  <link name="pallet_step_with_pipe_80">
    <!-- inertial -->
    <inertial>
      <origin rpy="0 0 0" xyz="0 0 0"/>
      <mass value="1"/>
      <inertia ixx="1.0" ixy="0.0" ixz="0.0" iyy="1.0" iyz="0.0" izz="1.0"/>
    </inertial>
    <!-- visual -->
    <visual>
      <origin rpy="0 0 0" xyz="0 0 0"/>
      <geometry>
        <mesh filename="package://ICRA2024_Quadruped_Competition/meshes/visual/pallet_step_with_pipe.obj"/>
      </geometry>
      <material name="">
        <color rgba="0.92 0.93 0.90 1"/>
      </material>
    </visual>
    <!-- collision -->
    <collision>
      <origin rpy="0 0 0" xyz="0 0 0"/>
      <geometry>
        <mesh filename="package://ICRA2024_Quadruped_Competition/meshes/visual/pallet_step_with_pipe.obj"/>
      </geometry>
      <material name="">
        <color rgba="1 0 0 1"/>
      </material>
    </collision>
  </link>
  <!-- gazebo -->
  <gazebo reference="pallet_step_with_pipe_80">
    <static>true</static>
  </gazebo>
  <!-- fixed joint -->
  <joint name="pallet_step_with_pipe_82_joint" type="fixed">
    <origin rpy="0.0 -0.0 0.0" xyz="-4.951999999090568 0.6104999999999681 0.3"/>
    <parent link="world"/>
    <child link="pallet_step_with_pipe_82"/>
  </joint>
  <!-- link -->
  <link name="pallet_step_with_pipe_82">
    <!-- inertial -->
    <inertial>
      <origin rpy="0 0 0" xyz="0 0 0"/>
      <mass value="1"/>
      <inertia ixx="1.0" ixy="0.0" ixz="0.0" iyy="1.0" iyz="0.0" izz="1.0"/>
    </inertial>
    <!-- visual -->
    <visual>
      <origin rpy="0 0 0" xyz="0 0 0"/>
      <geometry>
        <mesh filename="package://ICRA2024_Quadruped_Competition/meshes/visual/pallet_step_with_pipe.obj"/>
      </geometry>
      <material name="">
        <color rgba="0.92 0.93 0.90 1"/>
      </material>
    </visual>
    <!-- collision -->
    <collision>
      <origin rpy="0 0 0" xyz="0 0 0"/>
      <geometry>
        <mesh filename="package://ICRA2024_Quadruped_Competition/meshes/visual/pallet_step_with_pipe.obj"/>
      </geometry>
      <material name="">
        <color rgba="1 0 0 1"/>
      </material>
    </collision>
  </link>
  <!-- gazebo -->
  <gazebo reference="pallet_step_with_pipe_82">
    <static>true</static>
  </gazebo>
  <!-- fixed joint -->
  <joint name="pallet_step_with_pipe_86_joint" type="fixed">
    <origin rpy="0.0 -0.0 1.570796326795" xyz="-6.151999999090693 1.810499999999968 0.3"/>
    <parent link="world"/>
    <child link="pallet_step_with_pipe_86"/>
  </joint>
  <!-- link -->
  <link name="pallet_step_with_pipe_86">
    <!-- inertial -->
    <inertial>
      <origin rpy="0 0 0" xyz="0 0 0"/>
      <mass value="1"/>
      <inertia ixx="1.0" ixy="0.0" ixz="0.0" iyy="1.0" iyz="0.0" izz="1.0"/>
    </inertial>
    <!-- visual -->
    <visual>
      <origin rpy="0 0 0" xyz="0 0 0"/>
      <geometry>
        <mesh filename="package://ICRA2024_Quadruped_Competition/meshes/visual/pallet_step_with_pipe.obj"/>
      </geometry>
      <material name="">
        <color rgba="0.92 0.93 0.90 1"/>
      </material>
    </visual>
    <!-- collision -->
    <collision>
      <origin rpy="0 0 0" xyz="0 0 0"/>
      <geometry>
        <mesh filename="package://ICRA2024_Quadruped_Competition/meshes/visual/pallet_step_with_pipe.obj"/>
      </geometry>
      <material name="">
        <color rgba="1 0 0 1"/>
      </material>
    </collision>
  </link>
  <!-- gazebo -->
  <gazebo reference="pallet_step_with_pipe_86">
    <static>true</static>
  </gazebo>
  <!-- fixed joint -->
  <joint name="pallet_step_with_pipe_88_joint" type="fixed">
    <origin rpy="0.0 -0.0 -1.5707963267945864" xyz="-6.1519999990905685 -1.8115000000000319 0.3"/>
    <parent link="world"/>
    <child link="pallet_step_with_pipe_88"/>
  </joint>
  <!-- link -->
  <link name="pallet_step_with_pipe_88">
    <!-- inertial -->
    <inertial>
      <origin rpy="0 0 0" xyz="0 0 0"/>
      <mass value="1"/>
      <inertia ixx="1.0" ixy="0.0" ixz="0.0" iyy="1.0" iyz="0.0" izz="1.0"/>
    </inertial>
    <!-- visual -->
    <visual>
      <origin rpy="0 0 0" xyz="0 0 0"/>
      <geometry>
        <mesh filename="package://ICRA2024_Quadruped_Competition/meshes/visual/pallet_step_with_pipe.obj"/>
      </geometry>
      <material name="">
        <color rgba="0.92 0.93 0.90 1"/>
      </material>
    </visual>
    <!-- collision -->
    <collision>
      <origin rpy="0 0 0" xyz="0 0 0"/>
      <geometry>
        <mesh filename="package://ICRA2024_Quadruped_Competition/meshes/visual/pallet_step_with_pipe.obj"/>
      </geometry>
      <material name="">
        <color rgba="1 0 0 1"/>
      </material>
    </collision>
  </link>
  <!-- gazebo -->
  <gazebo reference="pallet_step_with_pipe_88">
    <static>true</static>
  </gazebo>
  <!-- fixed joint -->
  <joint name="pallet_step_with_pipe_90_joint" type="fixed">
    <origin rpy="0.0 -0.0 -1.5707963267945864" xyz="-5.751999999090197 -3.0114999999999075 0.3"/>
    <parent link="world"/>
    <child link="pallet_step_with_pipe_90"/>
  </joint>
  <!-- link -->
  <link name="pallet_step_with_pipe_90">
    <!-- inertial -->
    <inertial>
      <origin rpy="0 0 0" xyz="0 0 0"/>
      <mass value="1"/>
      <inertia ixx="1.0" ixy="0.0" ixz="0.0" iyy="1.0" iyz="0.0" izz="1.0"/>
    </inertial>
    <!-- visual -->
    <visual>
      <origin rpy="0 0 0" xyz="0 0 0"/>
      <geometry>
        <mesh filename="package://ICRA2024_Quadruped_Competition/meshes/visual/pallet_step_with_pipe.obj"/>
      </geometry>
      <material name="">
        <color rgba="0.92 0.93 0.90 1"/>
      </material>
    </visual>
    <!-- collision -->
    <collision>
      <origin rpy="0 0 0" xyz="0 0 0"/>
      <geometry>
        <mesh filename="package://ICRA2024_Quadruped_Competition/meshes/visual/pallet_step_with_pipe.obj"/>
      </geometry>
      <material name="">
        <color rgba="1 0 0 1"/>
      </material>
    </collision>
  </link>
  <!-- gazebo -->
  <gazebo reference="pallet_step_with_pipe_90">
    <static>true</static>
  </gazebo>
  <!-- fixed joint -->
  <joint name="pallet_step_with_pipe_92_joint" type="fixed">
    <origin rpy="0.0 -0.0 1.570796326795" xyz="-5.751999999092095 3.011500000000046 0.3"/>
    <parent link="world"/>
    <child link="pallet_step_with_pipe_92"/>
  </joint>
  <!-- link -->
  <link name="pallet_step_with_pipe_92">
    <!-- inertial -->
    <inertial>
      <origin rpy="0 0 0" xyz="0 0 0"/>
      <mass value="1"/>
      <inertia ixx="1.0" ixy="0.0" ixz="0.0" iyy="1.0" iyz="0.0" izz="1.0"/>
    </inertial>
    <!-- visual -->
    <visual>
      <origin rpy="0 0 0" xyz="0 0 0"/>
      <geometry>
        <mesh filename="package://ICRA2024_Quadruped_Competition/meshes/visual/pallet_step_with_pipe.obj"/>
      </geometry>
      <material name="">
        <color rgba="0.92 0.93 0.90 1"/>
      </material>
    </visual>
    <!-- collision -->
    <collision>
      <origin rpy="0 0 0" xyz="0 0 0"/>
      <geometry>
        <mesh filename="package://ICRA2024_Quadruped_Competition/meshes/visual/pallet_step_with_pipe.obj"/>
      </geometry>
      <material name="">
        <color rgba="1 0 0 1"/>
      </material>
    </collision>
  </link>
  <!-- gazebo -->
  <gazebo reference="pallet_step_with_pipe_92">
    <static>true</static>
  </gazebo>
  <!-- fixed joint -->
  <joint name="pvc_pipe_100x1200_77_joint" type="fixed">
    <origin rpy="1.570796326795 -0.0 0.0" xyz="-5.501999999090566 -0.6115000000000318 0.32"/>
    <parent link="world"/>
    <child link="pvc_pipe_100x1200_77"/>
  </joint>
  <!-- link -->
  <link name="pvc_pipe_100x1200_77">
    <!-- inertial -->
    <inertial>
      <origin rpy="0 0 0" xyz="0 0 0"/>
      <mass value="1"/>
      <inertia ixx="1.0" ixy="0.0" ixz="0.0" iyy="1.0" iyz="0.0" izz="1.0"/>
    </inertial>
    <!-- visual -->
    <visual>
      <origin rpy="0 0 0" xyz="0 0 0"/>
      <geometry>
        <mesh filename="package://ICRA2024_Quadruped_Competition/meshes/visual/pvc_pipe_100x1200.obj"/>
      </geometry>
      <material name="">
        <color rgba="0.92 0.93 0.90 1"/>
      </material>
    </visual>
    <!-- collision -->
    <collision>
      <origin rpy="0 0 0" xyz="0 0 0"/>
      <geometry>
        <mesh filename="package://ICRA2024_Quadruped_Competition/meshes/visual/pvc_pipe_100x1200.obj"/>
      </geometry>
      <material name="">
        <color rgba="1 0 0 1"/>
      </material>
    </collision>
  </link>
  <!-- gazebo -->
  <gazebo reference="pvc_pipe_100x1200_77">
    <static>true</static>
  </gazebo>
  <!-- fixed joint -->
  <joint name="pvc_pipe_100x1200_79_joint" type="fixed">
    <origin rpy="1.570796326795 -0.0 0.0" xyz="-4.301999999090566 -0.6115000000000318 0.32"/>
    <parent link="world"/>
    <child link="pvc_pipe_100x1200_79"/>
  </joint>
  <!-- link -->
  <link name="pvc_pipe_100x1200_79">
    <!-- inertial -->
    <inertial>
      <origin rpy="0 0 0" xyz="0 0 0"/>
      <mass value="1"/>
      <inertia ixx="1.0" ixy="0.0" ixz="0.0" iyy="1.0" iyz="0.0" izz="1.0"/>
    </inertial>
    <!-- visual -->
    <visual>
      <origin rpy="0 0 0" xyz="0 0 0"/>
      <geometry>
        <mesh filename="package://ICRA2024_Quadruped_Competition/meshes/visual/pvc_pipe_100x1200.obj"/>
      </geometry>
      <material name="">
        <color rgba="0.92 0.93 0.90 1"/>
      </material>
    </visual>
    <!-- collision -->
    <collision>
      <origin rpy="0 0 0" xyz="0 0 0"/>
      <geometry>
        <mesh filename="package://ICRA2024_Quadruped_Competition/meshes/visual/pvc_pipe_100x1200.obj"/>
      </geometry>
      <material name="">
        <color rgba="1 0 0 1"/>
      </material>
    </collision>
  </link>
  <!-- gazebo -->
  <gazebo reference="pvc_pipe_100x1200_79">
    <static>true</static>
  </gazebo>
  <!-- fixed joint -->
  <joint name="pvc_pipe_100x1200_81_joint" type="fixed">
    <origin rpy="1.570796326795 -0.0 0.0" xyz="-4.301999999090566 0.6104999999999681 0.32"/>
    <parent link="world"/>
    <child link="pvc_pipe_100x1200_81"/>
  </joint>
  <!-- link -->
  <link name="pvc_pipe_100x1200_81">
    <!-- inertial -->
    <inertial>
      <origin rpy="0 0 0" xyz="0 0 0"/>
      <mass value="1"/>
      <inertia ixx="1.0" ixy="0.0" ixz="0.0" iyy="1.0" iyz="0.0" izz="1.0"/>
    </inertial>
    <!-- visual -->
    <visual>
      <origin rpy="0 0 0" xyz="0 0 0"/>
      <geometry>
        <mesh filename="package://ICRA2024_Quadruped_Competition/meshes/visual/pvc_pipe_100x1200.obj"/>
      </geometry>
      <material name="">
        <color rgba="0.92 0.93 0.90 1"/>
      </material>
    </visual>
    <!-- collision -->
    <collision>
      <origin rpy="0 0 0" xyz="0 0 0"/>
      <geometry>
        <mesh filename="package://ICRA2024_Quadruped_Competition/meshes/visual/pvc_pipe_100x1200.obj"/>
      </geometry>
      <material name="">
        <color rgba="1 0 0 1"/>
      </material>
    </collision>
  </link>
  <!-- gazebo -->
  <gazebo reference="pvc_pipe_100x1200_81">
    <static>true</static>
  </gazebo>
  <!-- fixed joint -->
  <joint name="pvc_pipe_100x1200_83_joint" type="fixed">
    <origin rpy="1.570796326795 -0.0 0.0" xyz="-5.501999999090566 0.6104999999999681 0.32"/>
    <parent link="world"/>
    <child link="pvc_pipe_100x1200_83"/>
  </joint>
  <!-- link -->
  <link name="pvc_pipe_100x1200_83">
    <!-- inertial -->
    <inertial>
      <origin rpy="0 0 0" xyz="0 0 0"/>
      <mass value="1"/>
      <inertia ixx="1.0" ixy="0.0" ixz="0.0" iyy="1.0" iyz="0.0" izz="1.0"/>
    </inertial>
    <!-- visual -->
    <visual>
      <origin rpy="0 0 0" xyz="0 0 0"/>
      <geometry>
        <mesh filename="package://ICRA2024_Quadruped_Competition/meshes/visual/pvc_pipe_100x1200.obj"/>
      </geometry>
      <material name="">
        <color rgba="0.92 0.93 0.90 1"/>
      </material>
    </visual>
    <!-- collision -->
    <collision>
      <origin rpy="0 0 0" xyz="0 0 0"/>
      <geometry>
        <mesh filename="package://ICRA2024_Quadruped_Competition/meshes/visual/pvc_pipe_100x1200.obj"/>
      </geometry>
      <material name="">
        <color rgba="1 0 0 1"/>
      </material>
    </collision>
  </link>
  <!-- gazebo -->
  <gazebo reference="pvc_pipe_100x1200_83">
    <static>true</static>
  </gazebo>
  <!-- fixed joint -->
  <joint name="pvc_pipe_100x1200_87_joint" type="fixed">
    <origin rpy="1.5707963267950003 -0.0 1.5707963267950003" xyz="-6.151999999090636 1.26049999999997 0.32"/>
    <parent link="world"/>
    <child link="pvc_pipe_100x1200_87"/>
  </joint>
  <!-- link -->
  <link name="pvc_pipe_100x1200_87">
    <!-- inertial -->
    <inertial>
      <origin rpy="0 0 0" xyz="0 0 0"/>
      <mass value="1"/>
      <inertia ixx="1.0" ixy="0.0" ixz="0.0" iyy="1.0" iyz="0.0" izz="1.0"/>
    </inertial>
    <!-- visual -->
    <visual>
      <origin rpy="0 0 0" xyz="0 0 0"/>
      <geometry>
        <mesh filename="package://ICRA2024_Quadruped_Competition/meshes/visual/pvc_pipe_100x1200.obj"/>
      </geometry>
      <material name="">
        <color rgba="0.92 0.93 0.90 1"/>
      </material>
    </visual>
    <!-- collision -->
    <collision>
      <origin rpy="0 0 0" xyz="0 0 0"/>
      <geometry>
        <mesh filename="package://ICRA2024_Quadruped_Competition/meshes/visual/pvc_pipe_100x1200.obj"/>
      </geometry>
      <material name="">
        <color rgba="1 0 0 1"/>
      </material>
    </collision>
  </link>
  <!-- gazebo -->
  <gazebo reference="pvc_pipe_100x1200_87">
    <static>true</static>
  </gazebo>
  <!-- fixed joint -->
  <joint name="pvc_pipe_100x1200_89_joint" type="fixed">
    <origin rpy="1.5707963267950003 -0.0 -1.5707963267945864" xyz="-6.151999999090739 -1.2615000000000338 0.32000000000000006"/>
    <parent link="world"/>
    <child link="pvc_pipe_100x1200_89"/>
  </joint>
  <!-- link -->
  <link name="pvc_pipe_100x1200_89">
    <!-- inertial -->
    <inertial>
      <origin rpy="0 0 0" xyz="0 0 0"/>
      <mass value="1"/>
      <inertia ixx="1.0" ixy="0.0" ixz="0.0" iyy="1.0" iyz="0.0" izz="1.0"/>
    </inertial>
    <!-- visual -->
    <visual>
      <origin rpy="0 0 0" xyz="0 0 0"/>
      <geometry>
        <mesh filename="package://ICRA2024_Quadruped_Competition/meshes/visual/pvc_pipe_100x1200.obj"/>
      </geometry>
      <material name="">
        <color rgba="0.92 0.93 0.90 1"/>
      </material>
    </visual>
    <!-- collision -->
    <collision>
      <origin rpy="0 0 0" xyz="0 0 0"/>
      <geometry>
        <mesh filename="package://ICRA2024_Quadruped_Competition/meshes/visual/pvc_pipe_100x1200.obj"/>
      </geometry>
      <material name="">
        <color rgba="1 0 0 1"/>
      </material>
    </collision>
  </link>
  <!-- gazebo -->
  <gazebo reference="pvc_pipe_100x1200_89">
    <static>true</static>
  </gazebo>
  <!-- fixed joint -->
  <joint name="pvc_pipe_100x1200_91_joint" type="fixed">
    <origin rpy="1.5707963267950003 -0.0 -1.5707963267945864" xyz="-5.751999999090367 -2.4614999999999094 0.32000000000000006"/>
    <parent link="world"/>
    <child link="pvc_pipe_100x1200_91"/>
  </joint>
  <!-- link -->
  <link name="pvc_pipe_100x1200_91">
    <!-- inertial -->
    <inertial>
      <origin rpy="0 0 0" xyz="0 0 0"/>
      <mass value="1"/>
      <inertia ixx="1.0" ixy="0.0" ixz="0.0" iyy="1.0" iyz="0.0" izz="1.0"/>
    </inertial>
    <!-- visual -->
    <visual>
      <origin rpy="0 0 0" xyz="0 0 0"/>
      <geometry>
        <mesh filename="package://ICRA2024_Quadruped_Competition/meshes/visual/pvc_pipe_100x1200.obj"/>
      </geometry>
      <material name="">
        <color rgba="0.92 0.93 0.90 1"/>
      </material>
    </visual>
    <!-- collision -->
    <collision>
      <origin rpy="0 0 0" xyz="0 0 0"/>
      <geometry>
        <mesh filename="package://ICRA2024_Quadruped_Competition/meshes/visual/pvc_pipe_100x1200.obj"/>
      </geometry>
      <material name="">
        <color rgba="1 0 0 1"/>
      </material>
    </collision>
  </link>
  <!-- gazebo -->
  <gazebo reference="pvc_pipe_100x1200_91">
    <static>true</static>
  </gazebo>
  <!-- fixed joint -->
  <joint name="pvc_pipe_100x1200_93_joint" type="fixed">
    <origin rpy="1.5707963267950003 -0.0 1.5707963267950003" xyz="-5.751999999092038 2.461500000000048 0.32"/>
    <parent link="world"/>
    <child link="pvc_pipe_100x1200_93"/>
  </joint>
  <!-- link -->
  <link name="pvc_pipe_100x1200_93">
    <!-- inertial -->
    <inertial>
      <origin rpy="0 0 0" xyz="0 0 0"/>
      <mass value="1"/>
      <inertia ixx="1.0" ixy="0.0" ixz="0.0" iyy="1.0" iyz="0.0" izz="1.0"/>
    </inertial>
    <!-- visual -->
    <visual>
      <origin rpy="0 0 0" xyz="0 0 0"/>
      <geometry>
        <mesh filename="package://ICRA2024_Quadruped_Competition/meshes/visual/pvc_pipe_100x1200.obj"/>
      </geometry>
      <material name="">
        <color rgba="0.92 0.93 0.90 1"/>
      </material>
    </visual>
    <!-- collision -->
    <collision>
      <origin rpy="0 0 0" xyz="0 0 0"/>
      <geometry>
        <mesh filename="package://ICRA2024_Quadruped_Competition/meshes/visual/pvc_pipe_100x1200.obj"/>
      </geometry>
      <material name="">
        <color rgba="1 0 0 1"/>
      </material>
    </collision>
  </link>
  <!-- gazebo -->
  <gazebo reference="pvc_pipe_100x1200_93">
    <static>true</static>
  </gazebo>
  <!-- fixed joint -->
  <joint name="ramp_16_joint" type="fixed">
    <origin rpy="0.0 -0.0 8.272924284408579e-13" xyz="4.724000000000016 2.7379999999999978 0.09508599999999999"/>
    <parent link="world"/>
    <child link="ramp_16"/>
  </joint>
  <!-- link -->
  <link name="ramp_16">
    <!-- inertial -->
    <inertial>
      <origin rpy="0 0 0" xyz="0 0 0"/>
      <mass value="1"/>
      <inertia ixx="1.0" ixy="0.0" ixz="0.0" iyy="1.0" iyz="0.0" izz="1.0"/>
    </inertial>
    <!-- visual -->
    <visual>
      <origin rpy="0 0 0" xyz="0 0 0"/>
      <geometry>
        <mesh filename="package://ICRA2024_Quadruped_Competition/meshes/visual/ramp.obj"/>
      </geometry>
      <material name="">
        <color rgba="0.92 0.93 0.90 1"/>
      </material>
    </visual>
    <!-- collision -->
    <collision>
      <origin rpy="0 0 0" xyz="0 0 0"/>
      <geometry>
        <mesh filename="package://ICRA2024_Quadruped_Competition/meshes/visual/ramp.obj"/>
      </geometry>
      <material name="">
        <color rgba="1 0 0 1"/>
      </material>
    </collision>
  </link>
  <!-- gazebo -->
  <gazebo reference="ramp_16">
    <static>true</static>
  </gazebo>
  <!-- fixed joint -->
  <joint name="ramp_17_joint" type="fixed">
    <origin rpy="0.0 -0.0 -1.5707963267937588" xyz="4.723999999999788 3.2879999999999976 0.09508599999999999"/>
    <parent link="world"/>
    <child link="ramp_17"/>
  </joint>
  <!-- link -->
  <link name="ramp_17">
    <!-- inertial -->
    <inertial>
      <origin rpy="0 0 0" xyz="0 0 0"/>
      <mass value="1"/>
      <inertia ixx="1.0" ixy="0.0" ixz="0.0" iyy="1.0" iyz="0.0" izz="1.0"/>
    </inertial>
    <!-- visual -->
    <visual>
      <origin rpy="0 0 0" xyz="0 0 0"/>
      <geometry>
        <mesh filename="package://ICRA2024_Quadruped_Competition/meshes/visual/ramp.obj"/>
      </geometry>
      <material name="">
        <color rgba="0.92 0.93 0.90 1"/>
      </material>
    </visual>
    <!-- collision -->
    <collision>
      <origin rpy="0 0 0" xyz="0 0 0"/>
      <geometry>
        <mesh filename="package://ICRA2024_Quadruped_Competition/meshes/visual/ramp.obj"/>
      </geometry>
      <material name="">
        <color rgba="1 0 0 1"/>
      </material>
    </collision>
  </link>
  <!-- gazebo -->
  <gazebo reference="ramp_17">
    <static>true</static>
  </gazebo>
  <!-- fixed joint -->
  <joint name="ramp_18_joint" type="fixed">
    <origin rpy="0.0 -0.0 8.272924284408579e-13" xyz="5.794000000000016 2.7379999999999973 0.09508599999999999"/>
    <parent link="world"/>
    <child link="ramp_18"/>
  </joint>
  <!-- link -->
  <link name="ramp_18">
    <!-- inertial -->
    <inertial>
      <origin rpy="0 0 0" xyz="0 0 0"/>
      <mass value="1"/>
      <inertia ixx="1.0" ixy="0.0" ixz="0.0" iyy="1.0" iyz="0.0" izz="1.0"/>
    </inertial>
    <!-- visual -->
    <visual>
      <origin rpy="0 0 0" xyz="0 0 0"/>
      <geometry>
        <mesh filename="package://ICRA2024_Quadruped_Competition/meshes/visual/ramp.obj"/>
      </geometry>
      <material name="">
        <color rgba="0.92 0.93 0.90 1"/>
      </material>
    </visual>
    <!-- collision -->
    <collision>
      <origin rpy="0 0 0" xyz="0 0 0"/>
      <geometry>
        <mesh filename="package://ICRA2024_Quadruped_Competition/meshes/visual/ramp.obj"/>
      </geometry>
      <material name="">
        <color rgba="1 0 0 1"/>
      </material>
    </collision>
  </link>
  <!-- gazebo -->
  <gazebo reference="ramp_18">
    <static>true</static>
  </gazebo>
  <!-- fixed joint -->
  <joint name="ramp_19_joint" type="fixed">
    <origin rpy="0.0 0.0 -1.5707963267941727" xyz="5.793999999999787 3.2879999999999976 0.09508599999999999"/>
    <parent link="world"/>
    <child link="ramp_19"/>
  </joint>
  <!-- link -->
  <link name="ramp_19">
    <!-- inertial -->
    <inertial>
      <origin rpy="0 0 0" xyz="0 0 0"/>
      <mass value="1"/>
      <inertia ixx="1.0" ixy="0.0" ixz="0.0" iyy="1.0" iyz="0.0" izz="1.0"/>
    </inertial>
    <!-- visual -->
    <visual>
      <origin rpy="0 0 0" xyz="0 0 0"/>
      <geometry>
        <mesh filename="package://ICRA2024_Quadruped_Competition/meshes/visual/ramp.obj"/>
      </geometry>
      <material name="">
        <color rgba="0.92 0.93 0.90 1"/>
      </material>
    </visual>
    <!-- collision -->
    <collision>
      <origin rpy="0 0 0" xyz="0 0 0"/>
      <geometry>
        <mesh filename="package://ICRA2024_Quadruped_Competition/meshes/visual/ramp.obj"/>
      </geometry>
      <material name="">
        <color rgba="1 0 0 1"/>
      </material>
    </collision>
  </link>
  <!-- gazebo -->
  <gazebo reference="ramp_19">
    <static>true</static>
  </gazebo>
  <!-- fixed joint -->
  <joint name="ramp_20_joint" type="fixed">
    <origin rpy="-0.0 -0.0 1.570796326795414" xyz="5.259000000000015 2.737999999999998 0.09508599999999999"/>
    <parent link="world"/>
    <child link="ramp_20"/>
  </joint>
  <!-- link -->
  <link name="ramp_20">
    <!-- inertial -->
    <inertial>
      <origin rpy="0 0 0" xyz="0 0 0"/>
      <mass value="1"/>
      <inertia ixx="1.0" ixy="0.0" ixz="0.0" iyy="1.0" iyz="0.0" izz="1.0"/>
    </inertial>
    <!-- visual -->
    <visual>
      <origin rpy="0 0 0" xyz="0 0 0"/>
      <geometry>
        <mesh filename="package://ICRA2024_Quadruped_Competition/meshes/visual/ramp.obj"/>
      </geometry>
      <material name="">
        <color rgba="0.92 0.93 0.90 1"/>
      </material>
    </visual>
    <!-- collision -->
    <collision>
      <origin rpy="0 0 0" xyz="0 0 0"/>
      <geometry>
        <mesh filename="package://ICRA2024_Quadruped_Competition/meshes/visual/ramp.obj"/>
      </geometry>
      <material name="">
        <color rgba="1 0 0 1"/>
      </material>
    </collision>
  </link>
  <!-- gazebo -->
  <gazebo reference="ramp_20">
    <static>true</static>
  </gazebo>
  <!-- fixed joint -->
  <joint name="ramp_21_joint" type="fixed">
    <origin rpy="0.0 -0.0 -3.141592653589586" xyz="5.259000000000015 3.2879999999999976 0.09508599999999999"/>
    <parent link="world"/>
    <child link="ramp_21"/>
  </joint>
  <!-- link -->
  <link name="ramp_21">
    <!-- inertial -->
    <inertial>
      <origin rpy="0 0 0" xyz="0 0 0"/>
      <mass value="1"/>
      <inertia ixx="1.0" ixy="0.0" ixz="0.0" iyy="1.0" iyz="0.0" izz="1.0"/>
    </inertial>
    <!-- visual -->
    <visual>
      <origin rpy="0 0 0" xyz="0 0 0"/>
      <geometry>
        <mesh filename="package://ICRA2024_Quadruped_Competition/meshes/visual/ramp.obj"/>
      </geometry>
      <material name="">
        <color rgba="0.92 0.93 0.90 1"/>
      </material>
    </visual>
    <!-- collision -->
    <collision>
      <origin rpy="0 0 0" xyz="0 0 0"/>
      <geometry>
        <mesh filename="package://ICRA2024_Quadruped_Competition/meshes/visual/ramp.obj"/>
      </geometry>
      <material name="">
        <color rgba="1 0 0 1"/>
      </material>
    </collision>
  </link>
  <!-- gazebo -->
  <gazebo reference="ramp_21">
    <static>true</static>
  </gazebo>
  <!-- fixed joint -->
  <joint name="ramp_22_joint" type="fixed">
    <origin rpy="-0.0 -0.0 1.570796326795414" xyz="6.329000000000016 2.7379999999999978 0.09508599999999999"/>
    <parent link="world"/>
    <child link="ramp_22"/>
  </joint>
  <!-- link -->
  <link name="ramp_22">
    <!-- inertial -->
    <inertial>
      <origin rpy="0 0 0" xyz="0 0 0"/>
      <mass value="1"/>
      <inertia ixx="1.0" ixy="0.0" ixz="0.0" iyy="1.0" iyz="0.0" izz="1.0"/>
    </inertial>
    <!-- visual -->
    <visual>
      <origin rpy="0 0 0" xyz="0 0 0"/>
      <geometry>
        <mesh filename="package://ICRA2024_Quadruped_Competition/meshes/visual/ramp.obj"/>
      </geometry>
      <material name="">
        <color rgba="0.92 0.93 0.90 1"/>
      </material>
    </visual>
    <!-- collision -->
    <collision>
      <origin rpy="0 0 0" xyz="0 0 0"/>
      <geometry>
        <mesh filename="package://ICRA2024_Quadruped_Competition/meshes/visual/ramp.obj"/>
      </geometry>
      <material name="">
        <color rgba="1 0 0 1"/>
      </material>
    </collision>
  </link>
  <!-- gazebo -->
  <gazebo reference="ramp_22">
    <static>true</static>
  </gazebo>
  <!-- fixed joint -->
  <joint name="ramp_23_joint" type="fixed">
    <origin rpy="0.0 -0.0 -3.141592653589586" xyz="6.329000000000015 3.2879999999999976 0.09508599999999999"/>
    <parent link="world"/>
    <child link="ramp_23"/>
  </joint>
  <!-- link -->
  <link name="ramp_23">
    <!-- inertial -->
    <inertial>
      <origin rpy="0 0 0" xyz="0 0 0"/>
      <mass value="1"/>
      <inertia ixx="1.0" ixy="0.0" ixz="0.0" iyy="1.0" iyz="0.0" izz="1.0"/>
    </inertial>
    <!-- visual -->
    <visual>
      <origin rpy="0 0 0" xyz="0 0 0"/>
      <geometry>
        <mesh filename="package://ICRA2024_Quadruped_Competition/meshes/visual/ramp.obj"/>
      </geometry>
      <material name="">
        <color rgba="0.92 0.93 0.90 1"/>
      </material>
    </visual>
    <!-- collision -->
    <collision>
      <origin rpy="0 0 0" xyz="0 0 0"/>
      <geometry>
        <mesh filename="package://ICRA2024_Quadruped_Competition/meshes/visual/ramp.obj"/>
      </geometry>
      <material name="">
        <color rgba="1 0 0 1"/>
      </material>
    </collision>
  </link>
  <!-- gazebo -->
  <gazebo reference="ramp_23">
    <static>true</static>
  </gazebo>
  <!-- fixed joint -->
  <joint name="ramp_25_joint" type="fixed">
    <origin rpy="0.0 -0.0 8.272924284408579e-13" xyz="-0.07599999999998364 3.937999999999998 0.09508599999999999"/>
    <parent link="world"/>
    <child link="ramp_25"/>
  </joint>
  <!-- link -->
  <link name="ramp_25">
    <!-- inertial -->
    <inertial>
      <origin rpy="0 0 0" xyz="0 0 0"/>
      <mass value="1"/>
      <inertia ixx="1.0" ixy="0.0" ixz="0.0" iyy="1.0" iyz="0.0" izz="1.0"/>
    </inertial>
    <!-- visual -->
    <visual>
      <origin rpy="0 0 0" xyz="0 0 0"/>
      <geometry>
        <mesh filename="package://ICRA2024_Quadruped_Competition/meshes/visual/ramp.obj"/>
      </geometry>
      <material name="">
        <color rgba="0.92 0.93 0.90 1"/>
      </material>
    </visual>
    <!-- collision -->
    <collision>
      <origin rpy="0 0 0" xyz="0 0 0"/>
      <geometry>
        <mesh filename="package://ICRA2024_Quadruped_Competition/meshes/visual/ramp.obj"/>
      </geometry>
      <material name="">
        <color rgba="1 0 0 1"/>
      </material>
    </collision>
  </link>
  <!-- gazebo -->
  <gazebo reference="ramp_25">
    <static>true</static>
  </gazebo>
  <!-- fixed joint -->
  <joint name="ramp_26_joint" type="fixed">
    <origin rpy="0.0 -0.0 -1.5707963267937588" xyz="-0.07600000000021216 4.487999999999998 0.09508599999999999"/>
    <parent link="world"/>
    <child link="ramp_26"/>
  </joint>
  <!-- link -->
  <link name="ramp_26">
    <!-- inertial -->
    <inertial>
      <origin rpy="0 0 0" xyz="0 0 0"/>
      <mass value="1"/>
      <inertia ixx="1.0" ixy="0.0" ixz="0.0" iyy="1.0" iyz="0.0" izz="1.0"/>
    </inertial>
    <!-- visual -->
    <visual>
      <origin rpy="0 0 0" xyz="0 0 0"/>
      <geometry>
        <mesh filename="package://ICRA2024_Quadruped_Competition/meshes/visual/ramp.obj"/>
      </geometry>
      <material name="">
        <color rgba="0.92 0.93 0.90 1"/>
      </material>
    </visual>
    <!-- collision -->
    <collision>
      <origin rpy="0 0 0" xyz="0 0 0"/>
      <geometry>
        <mesh filename="package://ICRA2024_Quadruped_Competition/meshes/visual/ramp.obj"/>
      </geometry>
      <material name="">
        <color rgba="1 0 0 1"/>
      </material>
    </collision>
  </link>
  <!-- gazebo -->
  <gazebo reference="ramp_26">
    <static>true</static>
  </gazebo>
  <!-- fixed joint -->
  <joint name="ramp_27_joint" type="fixed">
    <origin rpy="0.0 -0.0 8.272924284408579e-13" xyz="0.9940000000000158 3.9379999999999975 0.09508599999999999"/>
    <parent link="world"/>
    <child link="ramp_27"/>
  </joint>
  <!-- link -->
  <link name="ramp_27">
    <!-- inertial -->
    <inertial>
      <origin rpy="0 0 0" xyz="0 0 0"/>
      <mass value="1"/>
      <inertia ixx="1.0" ixy="0.0" ixz="0.0" iyy="1.0" iyz="0.0" izz="1.0"/>
    </inertial>
    <!-- visual -->
    <visual>
      <origin rpy="0 0 0" xyz="0 0 0"/>
      <geometry>
        <mesh filename="package://ICRA2024_Quadruped_Competition/meshes/visual/ramp.obj"/>
      </geometry>
      <material name="">
        <color rgba="0.92 0.93 0.90 1"/>
      </material>
    </visual>
    <!-- collision -->
    <collision>
      <origin rpy="0 0 0" xyz="0 0 0"/>
      <geometry>
        <mesh filename="package://ICRA2024_Quadruped_Competition/meshes/visual/ramp.obj"/>
      </geometry>
      <material name="">
        <color rgba="1 0 0 1"/>
      </material>
    </collision>
  </link>
  <!-- gazebo -->
  <gazebo reference="ramp_27">
    <static>true</static>
  </gazebo>
  <!-- fixed joint -->
  <joint name="ramp_28_joint" type="fixed">
    <origin rpy="0.0 0.0 -1.5707963267941727" xyz="0.9939999999997879 4.487999999999998 0.09508599999999999"/>
    <parent link="world"/>
    <child link="ramp_28"/>
  </joint>
  <!-- link -->
  <link name="ramp_28">
    <!-- inertial -->
    <inertial>
      <origin rpy="0 0 0" xyz="0 0 0"/>
      <mass value="1"/>
      <inertia ixx="1.0" ixy="0.0" ixz="0.0" iyy="1.0" iyz="0.0" izz="1.0"/>
    </inertial>
    <!-- visual -->
    <visual>
      <origin rpy="0 0 0" xyz="0 0 0"/>
      <geometry>
        <mesh filename="package://ICRA2024_Quadruped_Competition/meshes/visual/ramp.obj"/>
      </geometry>
      <material name="">
        <color rgba="0.92 0.93 0.90 1"/>
      </material>
    </visual>
    <!-- collision -->
    <collision>
      <origin rpy="0 0 0" xyz="0 0 0"/>
      <geometry>
        <mesh filename="package://ICRA2024_Quadruped_Competition/meshes/visual/ramp.obj"/>
      </geometry>
      <material name="">
        <color rgba="1 0 0 1"/>
      </material>
    </collision>
  </link>
  <!-- gazebo -->
  <gazebo reference="ramp_28">
    <static>true</static>
  </gazebo>
  <!-- fixed joint -->
  <joint name="ramp_29_joint" type="fixed">
    <origin rpy="-0.0 -0.0 1.570796326795414" xyz="0.4590000000000156 3.9379999999999984 0.09508599999999999"/>
    <parent link="world"/>
    <child link="ramp_29"/>
  </joint>
  <!-- link -->
  <link name="ramp_29">
    <!-- inertial -->
    <inertial>
      <origin rpy="0 0 0" xyz="0 0 0"/>
      <mass value="1"/>
      <inertia ixx="1.0" ixy="0.0" ixz="0.0" iyy="1.0" iyz="0.0" izz="1.0"/>
    </inertial>
    <!-- visual -->
    <visual>
      <origin rpy="0 0 0" xyz="0 0 0"/>
      <geometry>
        <mesh filename="package://ICRA2024_Quadruped_Competition/meshes/visual/ramp.obj"/>
      </geometry>
      <material name="">
        <color rgba="0.92 0.93 0.90 1"/>
      </material>
    </visual>
    <!-- collision -->
    <collision>
      <origin rpy="0 0 0" xyz="0 0 0"/>
      <geometry>
        <mesh filename="package://ICRA2024_Quadruped_Competition/meshes/visual/ramp.obj"/>
      </geometry>
      <material name="">
        <color rgba="1 0 0 1"/>
      </material>
    </collision>
  </link>
  <!-- gazebo -->
  <gazebo reference="ramp_29">
    <static>true</static>
  </gazebo>
  <!-- fixed joint -->
  <joint name="ramp_30_joint" type="fixed">
    <origin rpy="0.0 -0.0 -3.141592653589586" xyz="0.4590000000000154 4.487999999999998 0.09508599999999999"/>
    <parent link="world"/>
    <child link="ramp_30"/>
  </joint>
  <!-- link -->
  <link name="ramp_30">
    <!-- inertial -->
    <inertial>
      <origin rpy="0 0 0" xyz="0 0 0"/>
      <mass value="1"/>
      <inertia ixx="1.0" ixy="0.0" ixz="0.0" iyy="1.0" iyz="0.0" izz="1.0"/>
    </inertial>
    <!-- visual -->
    <visual>
      <origin rpy="0 0 0" xyz="0 0 0"/>
      <geometry>
        <mesh filename="package://ICRA2024_Quadruped_Competition/meshes/visual/ramp.obj"/>
      </geometry>
      <material name="">
        <color rgba="0.92 0.93 0.90 1"/>
      </material>
    </visual>
    <!-- collision -->
    <collision>
      <origin rpy="0 0 0" xyz="0 0 0"/>
      <geometry>
        <mesh filename="package://ICRA2024_Quadruped_Competition/meshes/visual/ramp.obj"/>
      </geometry>
      <material name="">
        <color rgba="1 0 0 1"/>
      </material>
    </collision>
  </link>
  <!-- gazebo -->
  <gazebo reference="ramp_30">
    <static>true</static>
  </gazebo>
  <!-- fixed joint -->
  <joint name="ramp_31_joint" type="fixed">
    <origin rpy="-0.0 -0.0 1.570796326795414" xyz="1.529000000000016 3.937999999999998 0.09508599999999999"/>
    <parent link="world"/>
    <child link="ramp_31"/>
  </joint>
  <!-- link -->
  <link name="ramp_31">
    <!-- inertial -->
    <inertial>
      <origin rpy="0 0 0" xyz="0 0 0"/>
      <mass value="1"/>
      <inertia ixx="1.0" ixy="0.0" ixz="0.0" iyy="1.0" iyz="0.0" izz="1.0"/>
    </inertial>
    <!-- visual -->
    <visual>
      <origin rpy="0 0 0" xyz="0 0 0"/>
      <geometry>
        <mesh filename="package://ICRA2024_Quadruped_Competition/meshes/visual/ramp.obj"/>
      </geometry>
      <material name="">
        <color rgba="0.92 0.93 0.90 1"/>
      </material>
    </visual>
    <!-- collision -->
    <collision>
      <origin rpy="0 0 0" xyz="0 0 0"/>
      <geometry>
        <mesh filename="package://ICRA2024_Quadruped_Competition/meshes/visual/ramp.obj"/>
      </geometry>
      <material name="">
        <color rgba="1 0 0 1"/>
      </material>
    </collision>
  </link>
  <!-- gazebo -->
  <gazebo reference="ramp_31">
    <static>true</static>
  </gazebo>
  <!-- fixed joint -->
  <joint name="ramp_32_joint" type="fixed">
    <origin rpy="0.0 -0.0 -3.141592653589586" xyz="1.5290000000000155 4.487999999999998 0.09508599999999999"/>
    <parent link="world"/>
    <child link="ramp_32"/>
  </joint>
  <!-- link -->
  <link name="ramp_32">
    <!-- inertial -->
    <inertial>
      <origin rpy="0 0 0" xyz="0 0 0"/>
      <mass value="1"/>
      <inertia ixx="1.0" ixy="0.0" ixz="0.0" iyy="1.0" iyz="0.0" izz="1.0"/>
    </inertial>
    <!-- visual -->
    <visual>
      <origin rpy="0 0 0" xyz="0 0 0"/>
      <geometry>
        <mesh filename="package://ICRA2024_Quadruped_Competition/meshes/visual/ramp.obj"/>
      </geometry>
      <material name="">
        <color rgba="0.92 0.93 0.90 1"/>
      </material>
    </visual>
    <!-- collision -->
    <collision>
      <origin rpy="0 0 0" xyz="0 0 0"/>
      <geometry>
        <mesh filename="package://ICRA2024_Quadruped_Competition/meshes/visual/ramp.obj"/>
      </geometry>
      <material name="">
        <color rgba="1 0 0 1"/>
      </material>
    </collision>
  </link>
  <!-- gazebo -->
  <gazebo reference="ramp_32">
    <static>true</static>
  </gazebo>
  <!-- fixed joint -->
  <joint name="ramp_53_joint" type="fixed">
    <origin rpy="0.0 -0.0 8.272924284408579e-13" xyz="2.3240000000000163 3.937999999999998 0.09508599999999999"/>
    <parent link="world"/>
    <child link="ramp_53"/>
  </joint>
  <!-- link -->
  <link name="ramp_53">
    <!-- inertial -->
    <inertial>
      <origin rpy="0 0 0" xyz="0 0 0"/>
      <mass value="1"/>
      <inertia ixx="1.0" ixy="0.0" ixz="0.0" iyy="1.0" iyz="0.0" izz="1.0"/>
    </inertial>
    <!-- visual -->
    <visual>
      <origin rpy="0 0 0" xyz="0 0 0"/>
      <geometry>
        <mesh filename="package://ICRA2024_Quadruped_Competition/meshes/visual/ramp.obj"/>
      </geometry>
      <material name="">
        <color rgba="0.92 0.93 0.90 1"/>
      </material>
    </visual>
    <!-- collision -->
    <collision>
      <origin rpy="0 0 0" xyz="0 0 0"/>
      <geometry>
        <mesh filename="package://ICRA2024_Quadruped_Competition/meshes/visual/ramp.obj"/>
      </geometry>
      <material name="">
        <color rgba="1 0 0 1"/>
      </material>
    </collision>
  </link>
  <!-- gazebo -->
  <gazebo reference="ramp_53">
    <static>true</static>
  </gazebo>
  <!-- fixed joint -->
  <joint name="ramp_54_joint" type="fixed">
    <origin rpy="0.0 -0.0 -1.5707963267937588" xyz="2.3239999999997876 4.487999999999998 0.09508599999999999"/>
    <parent link="world"/>
    <child link="ramp_54"/>
  </joint>
  <!-- link -->
  <link name="ramp_54">
    <!-- inertial -->
    <inertial>
      <origin rpy="0 0 0" xyz="0 0 0"/>
      <mass value="1"/>
      <inertia ixx="1.0" ixy="0.0" ixz="0.0" iyy="1.0" iyz="0.0" izz="1.0"/>
    </inertial>
    <!-- visual -->
    <visual>
      <origin rpy="0 0 0" xyz="0 0 0"/>
      <geometry>
        <mesh filename="package://ICRA2024_Quadruped_Competition/meshes/visual/ramp.obj"/>
      </geometry>
      <material name="">
        <color rgba="0.92 0.93 0.90 1"/>
      </material>
    </visual>
    <!-- collision -->
    <collision>
      <origin rpy="0 0 0" xyz="0 0 0"/>
      <geometry>
        <mesh filename="package://ICRA2024_Quadruped_Competition/meshes/visual/ramp.obj"/>
      </geometry>
      <material name="">
        <color rgba="1 0 0 1"/>
      </material>
    </collision>
  </link>
  <!-- gazebo -->
  <gazebo reference="ramp_54">
    <static>true</static>
  </gazebo>
  <!-- fixed joint -->
  <joint name="ramp_55_joint" type="fixed">
    <origin rpy="0.0 -0.0 8.272924284408579e-13" xyz="3.3940000000000157 3.9379999999999975 0.09508599999999999"/>
    <parent link="world"/>
    <child link="ramp_55"/>
  </joint>
  <!-- link -->
  <link name="ramp_55">
    <!-- inertial -->
    <inertial>
      <origin rpy="0 0 0" xyz="0 0 0"/>
      <mass value="1"/>
      <inertia ixx="1.0" ixy="0.0" ixz="0.0" iyy="1.0" iyz="0.0" izz="1.0"/>
    </inertial>
    <!-- visual -->
    <visual>
      <origin rpy="0 0 0" xyz="0 0 0"/>
      <geometry>
        <mesh filename="package://ICRA2024_Quadruped_Competition/meshes/visual/ramp.obj"/>
      </geometry>
      <material name="">
        <color rgba="0.92 0.93 0.90 1"/>
      </material>
    </visual>
    <!-- collision -->
    <collision>
      <origin rpy="0 0 0" xyz="0 0 0"/>
      <geometry>
        <mesh filename="package://ICRA2024_Quadruped_Competition/meshes/visual/ramp.obj"/>
      </geometry>
      <material name="">
        <color rgba="1 0 0 1"/>
      </material>
    </collision>
  </link>
  <!-- gazebo -->
  <gazebo reference="ramp_55">
    <static>true</static>
  </gazebo>
  <!-- fixed joint -->
  <joint name="ramp_56_joint" type="fixed">
    <origin rpy="0.0 0.0 -1.5707963267941727" xyz="3.393999999999788 4.487999999999998 0.09508599999999999"/>
    <parent link="world"/>
    <child link="ramp_56"/>
  </joint>
  <!-- link -->
  <link name="ramp_56">
    <!-- inertial -->
    <inertial>
      <origin rpy="0 0 0" xyz="0 0 0"/>
      <mass value="1"/>
      <inertia ixx="1.0" ixy="0.0" ixz="0.0" iyy="1.0" iyz="0.0" izz="1.0"/>
    </inertial>
    <!-- visual -->
    <visual>
      <origin rpy="0 0 0" xyz="0 0 0"/>
      <geometry>
        <mesh filename="package://ICRA2024_Quadruped_Competition/meshes/visual/ramp.obj"/>
      </geometry>
      <material name="">
        <color rgba="0.92 0.93 0.90 1"/>
      </material>
    </visual>
    <!-- collision -->
    <collision>
      <origin rpy="0 0 0" xyz="0 0 0"/>
      <geometry>
        <mesh filename="package://ICRA2024_Quadruped_Competition/meshes/visual/ramp.obj"/>
      </geometry>
      <material name="">
        <color rgba="1 0 0 1"/>
      </material>
    </collision>
  </link>
  <!-- gazebo -->
  <gazebo reference="ramp_56">
    <static>true</static>
  </gazebo>
  <!-- fixed joint -->
  <joint name="ramp_57_joint" type="fixed">
    <origin rpy="-0.0 -0.0 1.570796326795414" xyz="2.8590000000000155 3.9379999999999984 0.09508599999999999"/>
    <parent link="world"/>
    <child link="ramp_57"/>
  </joint>
  <!-- link -->
  <link name="ramp_57">
    <!-- inertial -->
    <inertial>
      <origin rpy="0 0 0" xyz="0 0 0"/>
      <mass value="1"/>
      <inertia ixx="1.0" ixy="0.0" ixz="0.0" iyy="1.0" iyz="0.0" izz="1.0"/>
    </inertial>
    <!-- visual -->
    <visual>
      <origin rpy="0 0 0" xyz="0 0 0"/>
      <geometry>
        <mesh filename="package://ICRA2024_Quadruped_Competition/meshes/visual/ramp.obj"/>
      </geometry>
      <material name="">
        <color rgba="0.92 0.93 0.90 1"/>
      </material>
    </visual>
    <!-- collision -->
    <collision>
      <origin rpy="0 0 0" xyz="0 0 0"/>
      <geometry>
        <mesh filename="package://ICRA2024_Quadruped_Competition/meshes/visual/ramp.obj"/>
      </geometry>
      <material name="">
        <color rgba="1 0 0 1"/>
      </material>
    </collision>
  </link>
  <!-- gazebo -->
  <gazebo reference="ramp_57">
    <static>true</static>
  </gazebo>
  <!-- fixed joint -->
  <joint name="ramp_58_joint" type="fixed">
    <origin rpy="0.0 -0.0 -3.141592653589586" xyz="2.859000000000015 4.487999999999998 0.09508599999999999"/>
    <parent link="world"/>
    <child link="ramp_58"/>
  </joint>
  <!-- link -->
  <link name="ramp_58">
    <!-- inertial -->
    <inertial>
      <origin rpy="0 0 0" xyz="0 0 0"/>
      <mass value="1"/>
      <inertia ixx="1.0" ixy="0.0" ixz="0.0" iyy="1.0" iyz="0.0" izz="1.0"/>
    </inertial>
    <!-- visual -->
    <visual>
      <origin rpy="0 0 0" xyz="0 0 0"/>
      <geometry>
        <mesh filename="package://ICRA2024_Quadruped_Competition/meshes/visual/ramp.obj"/>
      </geometry>
      <material name="">
        <color rgba="0.92 0.93 0.90 1"/>
      </material>
    </visual>
    <!-- collision -->
    <collision>
      <origin rpy="0 0 0" xyz="0 0 0"/>
      <geometry>
        <mesh filename="package://ICRA2024_Quadruped_Competition/meshes/visual/ramp.obj"/>
      </geometry>
      <material name="">
        <color rgba="1 0 0 1"/>
      </material>
    </collision>
  </link>
  <!-- gazebo -->
  <gazebo reference="ramp_58">
    <static>true</static>
  </gazebo>
  <!-- fixed joint -->
  <joint name="ramp_59_joint" type="fixed">
    <origin rpy="-0.0 -0.0 1.570796326795414" xyz="3.929000000000016 3.937999999999998 0.09508599999999999"/>
    <parent link="world"/>
    <child link="ramp_59"/>
  </joint>
  <!-- link -->
  <link name="ramp_59">
    <!-- inertial -->
    <inertial>
      <origin rpy="0 0 0" xyz="0 0 0"/>
      <mass value="1"/>
      <inertia ixx="1.0" ixy="0.0" ixz="0.0" iyy="1.0" iyz="0.0" izz="1.0"/>
    </inertial>
    <!-- visual -->
    <visual>
      <origin rpy="0 0 0" xyz="0 0 0"/>
      <geometry>
        <mesh filename="package://ICRA2024_Quadruped_Competition/meshes/visual/ramp.obj"/>
      </geometry>
      <material name="">
        <color rgba="0.92 0.93 0.90 1"/>
      </material>
    </visual>
    <!-- collision -->
    <collision>
      <origin rpy="0 0 0" xyz="0 0 0"/>
      <geometry>
        <mesh filename="package://ICRA2024_Quadruped_Competition/meshes/visual/ramp.obj"/>
      </geometry>
      <material name="">
        <color rgba="1 0 0 1"/>
      </material>
    </collision>
  </link>
  <!-- gazebo -->
  <gazebo reference="ramp_59">
    <static>true</static>
  </gazebo>
  <!-- fixed joint -->
  <joint name="ramp_60_joint" type="fixed">
    <origin rpy="0.0 -0.0 -3.141592653589586" xyz="3.9290000000000154 4.487999999999998 0.09508599999999999"/>
    <parent link="world"/>
    <child link="ramp_60"/>
  </joint>
  <!-- link -->
  <link name="ramp_60">
    <!-- inertial -->
    <inertial>
      <origin rpy="0 0 0" xyz="0 0 0"/>
      <mass value="1"/>
      <inertia ixx="1.0" ixy="0.0" ixz="0.0" iyy="1.0" iyz="0.0" izz="1.0"/>
    </inertial>
    <!-- visual -->
    <visual>
      <origin rpy="0 0 0" xyz="0 0 0"/>
      <geometry>
        <mesh filename="package://ICRA2024_Quadruped_Competition/meshes/visual/ramp.obj"/>
      </geometry>
      <material name="">
        <color rgba="0.92 0.93 0.90 1"/>
      </material>
    </visual>
    <!-- collision -->
    <collision>
      <origin rpy="0 0 0" xyz="0 0 0"/>
      <geometry>
        <mesh filename="package://ICRA2024_Quadruped_Competition/meshes/visual/ramp.obj"/>
      </geometry>
      <material name="">
        <color rgba="1 0 0 1"/>
      </material>
    </collision>
  </link>
  <!-- gazebo -->
  <gazebo reference="ramp_60">
    <static>true</static>
  </gazebo>
  <!-- fixed joint -->
  <joint name="ramp_67_joint" type="fixed">
    <origin rpy="0.0 -0.0 8.272924284408579e-13" xyz="2.3240000000000163 2.7379999999999978 0.09508599999999999"/>
    <parent link="world"/>
    <child link="ramp_67"/>
  </joint>
  <!-- link -->
  <link name="ramp_67">
    <!-- inertial -->
    <inertial>
      <origin rpy="0 0 0" xyz="0 0 0"/>
      <mass value="1"/>
      <inertia ixx="1.0" ixy="0.0" ixz="0.0" iyy="1.0" iyz="0.0" izz="1.0"/>
    </inertial>
    <!-- visual -->
    <visual>
      <origin rpy="0 0 0" xyz="0 0 0"/>
      <geometry>
        <mesh filename="package://ICRA2024_Quadruped_Competition/meshes/visual/ramp.obj"/>
      </geometry>
      <material name="">
        <color rgba="0.92 0.93 0.90 1"/>
      </material>
    </visual>
    <!-- collision -->
    <collision>
      <origin rpy="0 0 0" xyz="0 0 0"/>
      <geometry>
        <mesh filename="package://ICRA2024_Quadruped_Competition/meshes/visual/ramp.obj"/>
      </geometry>
      <material name="">
        <color rgba="1 0 0 1"/>
      </material>
    </collision>
  </link>
  <!-- gazebo -->
  <gazebo reference="ramp_67">
    <static>true</static>
  </gazebo>
  <!-- fixed joint -->
  <joint name="ramp_68_joint" type="fixed">
    <origin rpy="0.0 -0.0 -1.5707963267937588" xyz="2.3239999999997876 3.2879999999999976 0.09508599999999999"/>
    <parent link="world"/>
    <child link="ramp_68"/>
  </joint>
  <!-- link -->
  <link name="ramp_68">
    <!-- inertial -->
    <inertial>
      <origin rpy="0 0 0" xyz="0 0 0"/>
      <mass value="1"/>
      <inertia ixx="1.0" ixy="0.0" ixz="0.0" iyy="1.0" iyz="0.0" izz="1.0"/>
    </inertial>
    <!-- visual -->
    <visual>
      <origin rpy="0 0 0" xyz="0 0 0"/>
      <geometry>
        <mesh filename="package://ICRA2024_Quadruped_Competition/meshes/visual/ramp.obj"/>
      </geometry>
      <material name="">
        <color rgba="0.92 0.93 0.90 1"/>
      </material>
    </visual>
    <!-- collision -->
    <collision>
      <origin rpy="0 0 0" xyz="0 0 0"/>
      <geometry>
        <mesh filename="package://ICRA2024_Quadruped_Competition/meshes/visual/ramp.obj"/>
      </geometry>
      <material name="">
        <color rgba="1 0 0 1"/>
      </material>
    </collision>
  </link>
  <!-- gazebo -->
  <gazebo reference="ramp_68">
    <static>true</static>
  </gazebo>
  <!-- fixed joint -->
  <joint name="ramp_69_joint" type="fixed">
    <origin rpy="0.0 -0.0 8.272924284408579e-13" xyz="3.3940000000000157 2.7379999999999973 0.09508599999999999"/>
    <parent link="world"/>
    <child link="ramp_69"/>
  </joint>
  <!-- link -->
  <link name="ramp_69">
    <!-- inertial -->
    <inertial>
      <origin rpy="0 0 0" xyz="0 0 0"/>
      <mass value="1"/>
      <inertia ixx="1.0" ixy="0.0" ixz="0.0" iyy="1.0" iyz="0.0" izz="1.0"/>
    </inertial>
    <!-- visual -->
    <visual>
      <origin rpy="0 0 0" xyz="0 0 0"/>
      <geometry>
        <mesh filename="package://ICRA2024_Quadruped_Competition/meshes/visual/ramp.obj"/>
      </geometry>
      <material name="">
        <color rgba="0.92 0.93 0.90 1"/>
      </material>
    </visual>
    <!-- collision -->
    <collision>
      <origin rpy="0 0 0" xyz="0 0 0"/>
      <geometry>
        <mesh filename="package://ICRA2024_Quadruped_Competition/meshes/visual/ramp.obj"/>
      </geometry>
      <material name="">
        <color rgba="1 0 0 1"/>
      </material>
    </collision>
  </link>
  <!-- gazebo -->
  <gazebo reference="ramp_69">
    <static>true</static>
  </gazebo>
  <!-- fixed joint -->
  <joint name="ramp_70_joint" type="fixed">
    <origin rpy="0.0 0.0 -1.5707963267941727" xyz="3.393999999999788 3.2879999999999976 0.09508599999999999"/>
    <parent link="world"/>
    <child link="ramp_70"/>
  </joint>
  <!-- link -->
  <link name="ramp_70">
    <!-- inertial -->
    <inertial>
      <origin rpy="0 0 0" xyz="0 0 0"/>
      <mass value="1"/>
      <inertia ixx="1.0" ixy="0.0" ixz="0.0" iyy="1.0" iyz="0.0" izz="1.0"/>
    </inertial>
    <!-- visual -->
    <visual>
      <origin rpy="0 0 0" xyz="0 0 0"/>
      <geometry>
        <mesh filename="package://ICRA2024_Quadruped_Competition/meshes/visual/ramp.obj"/>
      </geometry>
      <material name="">
        <color rgba="0.92 0.93 0.90 1"/>
      </material>
    </visual>
    <!-- collision -->
    <collision>
      <origin rpy="0 0 0" xyz="0 0 0"/>
      <geometry>
        <mesh filename="package://ICRA2024_Quadruped_Competition/meshes/visual/ramp.obj"/>
      </geometry>
      <material name="">
        <color rgba="1 0 0 1"/>
      </material>
    </collision>
  </link>
  <!-- gazebo -->
  <gazebo reference="ramp_70">
    <static>true</static>
  </gazebo>
  <!-- fixed joint -->
  <joint name="ramp_71_joint" type="fixed">
    <origin rpy="-0.0 -0.0 1.570796326795414" xyz="2.8590000000000155 2.737999999999998 0.09508599999999999"/>
    <parent link="world"/>
    <child link="ramp_71"/>
  </joint>
  <!-- link -->
  <link name="ramp_71">
    <!-- inertial -->
    <inertial>
      <origin rpy="0 0 0" xyz="0 0 0"/>
      <mass value="1"/>
      <inertia ixx="1.0" ixy="0.0" ixz="0.0" iyy="1.0" iyz="0.0" izz="1.0"/>
    </inertial>
    <!-- visual -->
    <visual>
      <origin rpy="0 0 0" xyz="0 0 0"/>
      <geometry>
        <mesh filename="package://ICRA2024_Quadruped_Competition/meshes/visual/ramp.obj"/>
      </geometry>
      <material name="">
        <color rgba="0.92 0.93 0.90 1"/>
      </material>
    </visual>
    <!-- collision -->
    <collision>
      <origin rpy="0 0 0" xyz="0 0 0"/>
      <geometry>
        <mesh filename="package://ICRA2024_Quadruped_Competition/meshes/visual/ramp.obj"/>
      </geometry>
      <material name="">
        <color rgba="1 0 0 1"/>
      </material>
    </collision>
  </link>
  <!-- gazebo -->
  <gazebo reference="ramp_71">
    <static>true</static>
  </gazebo>
  <!-- fixed joint -->
  <joint name="ramp_72_joint" type="fixed">
    <origin rpy="0.0 -0.0 -3.141592653589586" xyz="2.859000000000015 3.2879999999999976 0.09508599999999999"/>
    <parent link="world"/>
    <child link="ramp_72"/>
  </joint>
  <!-- link -->
  <link name="ramp_72">
    <!-- inertial -->
    <inertial>
      <origin rpy="0 0 0" xyz="0 0 0"/>
      <mass value="1"/>
      <inertia ixx="1.0" ixy="0.0" ixz="0.0" iyy="1.0" iyz="0.0" izz="1.0"/>
    </inertial>
    <!-- visual -->
    <visual>
      <origin rpy="0 0 0" xyz="0 0 0"/>
      <geometry>
        <mesh filename="package://ICRA2024_Quadruped_Competition/meshes/visual/ramp.obj"/>
      </geometry>
      <material name="">
        <color rgba="0.92 0.93 0.90 1"/>
      </material>
    </visual>
    <!-- collision -->
    <collision>
      <origin rpy="0 0 0" xyz="0 0 0"/>
      <geometry>
        <mesh filename="package://ICRA2024_Quadruped_Competition/meshes/visual/ramp.obj"/>
      </geometry>
      <material name="">
        <color rgba="1 0 0 1"/>
      </material>
    </collision>
  </link>
  <!-- gazebo -->
  <gazebo reference="ramp_72">
    <static>true</static>
  </gazebo>
  <!-- fixed joint -->
  <joint name="ramp_73_joint" type="fixed">
    <origin rpy="-0.0 -0.0 1.570796326795414" xyz="3.929000000000016 2.7379999999999978 0.09508599999999999"/>
    <parent link="world"/>
    <child link="ramp_73"/>
  </joint>
  <!-- link -->
  <link name="ramp_73">
    <!-- inertial -->
    <inertial>
      <origin rpy="0 0 0" xyz="0 0 0"/>
      <mass value="1"/>
      <inertia ixx="1.0" ixy="0.0" ixz="0.0" iyy="1.0" iyz="0.0" izz="1.0"/>
    </inertial>
    <!-- visual -->
    <visual>
      <origin rpy="0 0 0" xyz="0 0 0"/>
      <geometry>
        <mesh filename="package://ICRA2024_Quadruped_Competition/meshes/visual/ramp.obj"/>
      </geometry>
      <material name="">
        <color rgba="0.92 0.93 0.90 1"/>
      </material>
    </visual>
    <!-- collision -->
    <collision>
      <origin rpy="0 0 0" xyz="0 0 0"/>
      <geometry>
        <mesh filename="package://ICRA2024_Quadruped_Competition/meshes/visual/ramp.obj"/>
      </geometry>
      <material name="">
        <color rgba="1 0 0 1"/>
      </material>
    </collision>
  </link>
  <!-- gazebo -->
  <gazebo reference="ramp_73">
    <static>true</static>
  </gazebo>
  <!-- fixed joint -->
  <joint name="ramp_74_joint" type="fixed">
    <origin rpy="0.0 -0.0 -3.141592653589586" xyz="3.9290000000000154 3.2879999999999976 0.09508599999999999"/>
    <parent link="world"/>
    <child link="ramp_74"/>
  </joint>
  <!-- link -->
  <link name="ramp_74">
    <!-- inertial -->
    <inertial>
      <origin rpy="0 0 0" xyz="0 0 0"/>
      <mass value="1"/>
      <inertia ixx="1.0" ixy="0.0" ixz="0.0" iyy="1.0" iyz="0.0" izz="1.0"/>
    </inertial>
    <!-- visual -->
    <visual>
      <origin rpy="0 0 0" xyz="0 0 0"/>
      <geometry>
        <mesh filename="package://ICRA2024_Quadruped_Competition/meshes/visual/ramp.obj"/>
      </geometry>
      <material name="">
        <color rgba="0.92 0.93 0.90 1"/>
      </material>
    </visual>
    <!-- collision -->
    <collision>
      <origin rpy="0 0 0" xyz="0 0 0"/>
      <geometry>
        <mesh filename="package://ICRA2024_Quadruped_Competition/meshes/visual/ramp.obj"/>
      </geometry>
      <material name="">
        <color rgba="1 0 0 1"/>
      </material>
    </collision>
  </link>
  <!-- gazebo -->
  <gazebo reference="ramp_74">
    <static>true</static>
  </gazebo>
  <!-- fixed joint -->
  <joint name="stepover_1_110_joint" type="fixed">
    <origin rpy="0.0 -0.0 0.0" xyz="-5.122999999090575 4.211500000000003 0.161"/>
    <parent link="world"/>
    <child link="stepover_1_110"/>
  </joint>
  <!-- link -->
  <link name="stepover_1_110">
    <!-- inertial -->
    <inertial>
      <origin rpy="0 0 0" xyz="0 0 0"/>
      <mass value="1"/>
      <inertia ixx="1.0" ixy="0.0" ixz="0.0" iyy="1.0" iyz="0.0" izz="1.0"/>
    </inertial>
    <!-- visual -->
    <visual>
      <origin rpy="0 0 0" xyz="0 0 0"/>
      <geometry>
        <mesh filename="package://ICRA2024_Quadruped_Competition/meshes/visual/stepover_1.obj"/>
      </geometry>
      <material name="">
        <color rgba="0.92 0.93 0.90 1"/>
      </material>
    </visual>
    <!-- collision -->
    <collision>
      <origin rpy="0 0 0" xyz="0 0 0"/>
      <geometry>
        <mesh filename="package://ICRA2024_Quadruped_Competition/meshes/visual/stepover_1.obj"/>
      </geometry>
      <material name="">
        <color rgba="1 0 0 1"/>
      </material>
    </collision>
  </link>
  <!-- gazebo -->
  <gazebo reference="stepover_1_110">
    <static>true</static>
  </gazebo>
  <!-- fixed joint -->
  <joint name="stepover_1_111_joint" type="fixed">
    <origin rpy="0.0 -0.0 0.0" xyz="-0.322999999090575 3.011500000000003 0.161"/>
    <parent link="world"/>
    <child link="stepover_1_111"/>
  </joint>
  <!-- link -->
  <link name="stepover_1_111">
    <!-- inertial -->
    <inertial>
      <origin rpy="0 0 0" xyz="0 0 0"/>
      <mass value="1"/>
      <inertia ixx="1.0" ixy="0.0" ixz="0.0" iyy="1.0" iyz="0.0" izz="1.0"/>
    </inertial>
    <!-- visual -->
    <visual>
      <origin rpy="0 0 0" xyz="0 0 0"/>
      <geometry>
        <mesh filename="package://ICRA2024_Quadruped_Competition/meshes/visual/stepover_1.obj"/>
      </geometry>
      <material name="">
        <color rgba="0.92 0.93 0.90 1"/>
      </material>
    </visual>
    <!-- collision -->
    <collision>
      <origin rpy="0 0 0" xyz="0 0 0"/>
      <geometry>
        <mesh filename="package://ICRA2024_Quadruped_Competition/meshes/visual/stepover_1.obj"/>
      </geometry>
      <material name="">
        <color rgba="1 0 0 1"/>
      </material>
    </collision>
  </link>
  <!-- gazebo -->
  <gazebo reference="stepover_1_111">
    <static>true</static>
  </gazebo>
  <!-- fixed joint -->
  <joint name="stepover_2_117_joint" type="fixed">
    <origin rpy="0.0 -0.0 0.0" xyz="-2.722999999090575 4.211500000000003 0.16100000000000034"/>
    <parent link="world"/>
    <child link="stepover_2_117"/>
  </joint>
  <!-- link -->
  <link name="stepover_2_117">
    <!-- inertial -->
    <inertial>
      <origin rpy="0 0 0" xyz="0 0 0"/>
      <mass value="1"/>
      <inertia ixx="1.0" ixy="0.0" ixz="0.0" iyy="1.0" iyz="0.0" izz="1.0"/>
    </inertial>
    <!-- visual -->
    <visual>
      <origin rpy="0 0 0" xyz="0 0 0"/>
      <geometry>
        <mesh filename="package://ICRA2024_Quadruped_Competition/meshes/visual/stepover_2.obj"/>
      </geometry>
      <material name="">
        <color rgba="0.92 0.93 0.90 1"/>
      </material>
    </visual>
    <!-- collision -->
    <collision>
      <origin rpy="0 0 0" xyz="0 0 0"/>
      <geometry>
        <mesh filename="package://ICRA2024_Quadruped_Competition/meshes/visual/stepover_2.obj"/>
      </geometry>
      <material name="">
        <color rgba="1 0 0 1"/>
      </material>
    </collision>
  </link>
  <!-- gazebo -->
  <gazebo reference="stepover_2_117">
    <static>true</static>
  </gazebo>
  <!-- fixed joint -->
  <joint name="stepover_2_123_joint" type="fixed">
    <origin rpy="0.0 -0.0 0.0" xyz="-2.7229999990905753 3.0115000000000025 0.16100000000000012"/>
    <parent link="world"/>
    <child link="stepover_2_123"/>
  </joint>
  <!-- link -->
  <link name="stepover_2_123">
    <!-- inertial -->
    <inertial>
      <origin rpy="0 0 0" xyz="0 0 0"/>
      <mass value="1"/>
      <inertia ixx="1.0" ixy="0.0" ixz="0.0" iyy="1.0" iyz="0.0" izz="1.0"/>
    </inertial>
    <!-- visual -->
    <visual>
      <origin rpy="0 0 0" xyz="0 0 0"/>
      <geometry>
        <mesh filename="package://ICRA2024_Quadruped_Competition/meshes/visual/stepover_2.obj"/>
      </geometry>
      <material name="">
        <color rgba="0.92 0.93 0.90 1"/>
      </material>
    </visual>
    <!-- collision -->
    <collision>
      <origin rpy="0 0 0" xyz="0 0 0"/>
      <geometry>
        <mesh filename="package://ICRA2024_Quadruped_Competition/meshes/visual/stepover_2.obj"/>
      </geometry>
      <material name="">
        <color rgba="1 0 0 1"/>
      </material>
    </collision>
  </link>
  <!-- gazebo -->
  <gazebo reference="stepover_2_123">
    <static>true</static>
  </gazebo>
  <!-- gazebo -->
  <gazebo>
    <static>true</static>
  </gazebo>
</robot>
